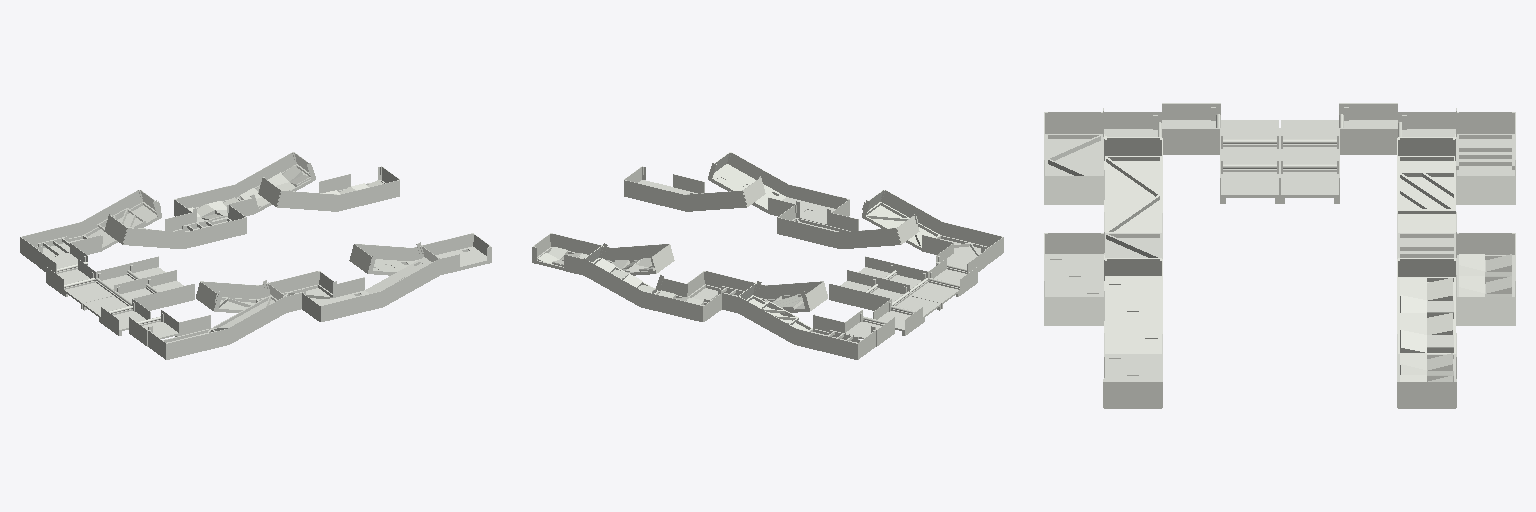
--- Render facts (derived) ---
The picture shows the robot from 3 angles, left to right: view 1: azimuth 30°, elevation 25°; view 2: azimuth 150°, elevation 25°; view 3: azimuth 270°, elevation 25°; orthographic projection.
Robot: map — 172 links, 171 joints (171 fixed); root link world; default pose: every joint at zero.
Links seen in each view (by area): view 1: board_18x600x2400_156, board_18x600x2400_33, board_18x600x2400_97, board_18x600x2400_176, pallet_step_with_pipe_78, board_18x600x2400_184, board_18x600x2400_145, board_18x600x2400_66, board_18x600x2400_128, pallet_step_with_pipe_76, pallet_step_with_pipe_90, pallet_step_with_pipe_88 (+15 smaller); view 2: board_18x600x2400_134, board_18x600x2400_165, board_18x600x2400_47, board_18x600x2400_34, board_18x600x2400_114, pallet_step_with_pipe_80, board_18x600x2400_98, board_18x600x2400_150, board_18x600x2400_192, pallet_step_with_pipe_82, crate_board_161, lane_floor_181 (+16 smaller); view 3: crate_board_153, lane_floor_190, lane_floor_122, pallet_step_with_pipe_88, pallet_step_with_pipe_86, crate_board_133, lane_floor_164, pallet_step_with_pipe_78, pallet_step_with_pipe_80, board_18x600x1200_49, board_18x600x1200_158, board_18x600x1200_116 (+28 smaller).
Link boxes in pixels (box(x1,y1,x2,y2)): board_18x600x2400_156: box(379, 259, 443, 306); board_18x600x2400_33: box(337, 180, 399, 211); board_18x600x2400_97: box(183, 218, 245, 248); board_18x600x2400_176: box(167, 329, 229, 359); pallet_step_with_pipe_78: box(146, 270, 194, 306); board_18x600x2400_184: box(226, 297, 289, 343); board_18x600x2400_145: box(320, 291, 383, 321); board_18x600x2400_66: box(277, 190, 339, 211); board_18x600x2400_128: box(123, 228, 184, 248); pallet_step_with_pipe_76: box(114, 278, 163, 310); pallet_step_with_pipe_90: box(129, 310, 178, 346); pallet_step_with_pipe_88: box(101, 299, 150, 335); board_18x600x2400_134: box(624, 180, 686, 211); board_18x600x2400_165: box(778, 218, 840, 248); board_18x600x2400_47: box(580, 259, 643, 306); board_18x600x2400_34: box(640, 291, 703, 321); board_18x600x2400_114: box(734, 297, 798, 343); pallet_step_with_pipe_80: box(829, 270, 877, 306); board_18x600x2400_98: box(794, 328, 856, 359); board_18x600x2400_150: box(684, 190, 746, 211); board_18x600x2400_192: box(839, 228, 900, 248); pallet_step_with_pipe_82: box(860, 278, 909, 310); crate_board_161: box(712, 164, 785, 209); lane_floor_181: box(862, 202, 939, 250); crate_board_153: box(1104, 276, 1161, 353); lane_floor_190: box(1104, 156, 1161, 232); lane_floor_122: box(1398, 156, 1455, 232); pallet_step_with_pipe_88: box(1162, 103, 1220, 154); pallet_step_with_pipe_86: box(1339, 103, 1397, 154); crate_board_133: box(1045, 254, 1103, 296); lane_floor_164: box(1045, 134, 1103, 175); pallet_step_with_pipe_78: box(1220, 153, 1279, 203); pallet_step_with_pipe_80: box(1280, 153, 1339, 203); board_18x600x1200_49: box(1456, 297, 1514, 325); board_18x600x1200_158: box(1045, 297, 1103, 325); board_18x600x1200_116: box(1456, 176, 1514, 204).
Size in the robot's own frame: 13.53 by 9.66 by 1.38 metres.
171 mesh visuals loaded from 14 distinct referenced files (14 OBJ).

The robot description file, URDF, robot "map":
<?xml version="1.0" ?>
<!-- =================================================================================== -->
<!-- |    This document was autogenerated by xacro from map_sloped.urdf.xacro          | -->
<!-- |    EDITING THIS FILE BY HAND IS NOT RECOMMENDED                                 | -->
<!-- =================================================================================== -->
<robot name="map">
  <link name="world"/>
  <material name="black">
    <color rgba="0.0 0.0 0.0 1.0"/>
  </material>
  <material name="blue">
    <color rgba="0.0 0.0 0.8 1.0"/>
  </material>
  <material name="green">
    <color rgba="0.0 0.8 0.0 1.0"/>
  </material>
  <material name="grey">
    <color rgba="0.2 0.2 0.2 1.0"/>
  </material>
  <material name="orange">
    <color rgba="1.0 0.4235294117647059 0.0392156862745098 1.0"/>
  </material>
  <material name="brown">
    <color rgba="0.8705882352941177 0.8117647058823529 0.7647058823529411 1.0"/>
  </material>
  <material name="red">
    <color rgba="1 0.41 0.41 1"/>
  </material>
  <material name="white">
    <color rgba="1.0 1.0 1.0 1.0"/>
  </material>
  <material name="wood">
    <color rgba="0.82 0.59 0.35 1.0"/>
  </material>
  <!-- fixed joint -->
  <joint name="board_18x600x1032_38_joint" type="fixed">
    <origin rpy="0.0 -0.0 -3.1415926535891723" xyz="1.4110000009077655 3.602500000001875 0.30000000000000004"/>
    <parent link="world"/>
    <child link="board_18x600x1032_38"/>
  </joint>
  <!-- link -->
  <link name="board_18x600x1032_38">
    <!-- inertial -->
    <inertial>
      <origin rpy="0 0 0" xyz="0 0 0"/>
      <mass value="1"/>
      <inertia ixx="1.0" ixy="0.0" ixz="0.0" iyy="1.0" iyz="0.0" izz="1.0"/>
    </inertial>
    <!-- visual -->
    <visual>
      <origin rpy="0 0 0" xyz="0 0 0"/>
      <geometry>
        <mesh filename="package://ICRA2024_Quadruped_Competition/meshes/visual/board_18x600x1032.obj"/>
      </geometry>
      <material name="">
        <color rgba="0.92 0.93 0.90 1"/>
      </material>
    </visual>
    <!-- collision -->
    <collision>
      <origin rpy="0 0 0" xyz="0 0 0"/>
      <geometry>
        <mesh filename="package://ICRA2024_Quadruped_Competition/meshes/visual/board_18x600x1032.obj"/>
      </geometry>
      <material name="">
        <color rgba="1 0 0 1"/>
      </material>
    </collision>
  </link>
  <!-- gazebo -->
  <gazebo reference="board_18x600x1032_38">
    <static>true</static>
  </gazebo>
  <!-- fixed joint -->
  <joint name="board_18x600x1032_109_joint" type="fixed">
    <origin rpy="0.0 -0.0 -3.1415926535891723" xyz="-0.9889999990922331 3.62050000000182 0.30000000000000004"/>
    <parent link="world"/>
    <child link="board_18x600x1032_109"/>
  </joint>
  <!-- link -->
  <link name="board_18x600x1032_109">
    <!-- inertial -->
    <inertial>
      <origin rpy="0 0 0" xyz="0 0 0"/>
      <mass value="1"/>
      <inertia ixx="1.0" ixy="0.0" ixz="0.0" iyy="1.0" iyz="0.0" izz="1.0"/>
    </inertial>
    <!-- visual -->
    <visual>
      <origin rpy="0 0 0" xyz="0 0 0"/>
      <geometry>
        <mesh filename="package://ICRA2024_Quadruped_Competition/meshes/visual/board_18x600x1032.obj"/>
      </geometry>
      <material name="">
        <color rgba="0.92 0.93 0.90 1"/>
      </material>
    </visual>
    <!-- collision -->
    <collision>
      <origin rpy="0 0 0" xyz="0 0 0"/>
      <geometry>
        <mesh filename="package://ICRA2024_Quadruped_Competition/meshes/visual/board_18x600x1032.obj"/>
      </geometry>
      <material name="">
        <color rgba="1 0 0 1"/>
      </material>
    </collision>
  </link>
  <!-- gazebo -->
  <gazebo reference="board_18x600x1032_109">
    <static>true</static>
  </gazebo>
  <!-- fixed joint -->
  <joint name="board_18x600x1032_138_joint" type="fixed">
    <origin rpy="0.0 -0.0 -3.1415926535891723" xyz="1.4110000009077655 -3.6024999999981335 0.30000000000000004"/>
    <parent link="world"/>
    <child link="board_18x600x1032_138"/>
  </joint>
  <!-- link -->
  <link name="board_18x600x1032_138">
    <!-- inertial -->
    <inertial>
      <origin rpy="0 0 0" xyz="0 0 0"/>
      <mass value="1"/>
      <inertia ixx="1.0" ixy="0.0" ixz="0.0" iyy="1.0" iyz="0.0" izz="1.0"/>
    </inertial>
    <!-- visual -->
    <visual>
      <origin rpy="0 0 0" xyz="0 0 0"/>
      <geometry>
        <mesh filename="package://ICRA2024_Quadruped_Competition/meshes/visual/board_18x600x1032.obj"/>
      </geometry>
      <material name="">
        <color rgba="0.92 0.93 0.90 1"/>
      </material>
    </visual>
    <!-- collision -->
    <collision>
      <origin rpy="0 0 0" xyz="0 0 0"/>
      <geometry>
        <mesh filename="package://ICRA2024_Quadruped_Competition/meshes/visual/board_18x600x1032.obj"/>
      </geometry>
      <material name="">
        <color rgba="1 0 0 1"/>
      </material>
    </collision>
  </link>
  <!-- gazebo -->
  <gazebo reference="board_18x600x1032_138">
    <static>true</static>
  </gazebo>
  <!-- fixed joint -->
  <joint name="board_18x600x1032_175_joint" type="fixed">
    <origin rpy="0.0 -0.0 -3.1415926535891723" xyz="-0.9889999990922331 -3.6024999999981877 0.30000000000000004"/>
    <parent link="world"/>
    <child link="board_18x600x1032_175"/>
  </joint>
  <!-- link -->
  <link name="board_18x600x1032_175">
    <!-- inertial -->
    <inertial>
      <origin rpy="0 0 0" xyz="0 0 0"/>
      <mass value="1"/>
      <inertia ixx="1.0" ixy="0.0" ixz="0.0" iyy="1.0" iyz="0.0" izz="1.0"/>
    </inertial>
    <!-- visual -->
    <visual>
      <origin rpy="0 0 0" xyz="0 0 0"/>
      <geometry>
        <mesh filename="package://ICRA2024_Quadruped_Competition/meshes/visual/board_18x600x1032.obj"/>
      </geometry>
      <material name="">
        <color rgba="0.92 0.93 0.90 1"/>
      </material>
    </visual>
    <!-- collision -->
    <collision>
      <origin rpy="0 0 0" xyz="0 0 0"/>
      <geometry>
        <mesh filename="package://ICRA2024_Quadruped_Competition/meshes/visual/board_18x600x1032.obj"/>
      </geometry>
      <material name="">
        <color rgba="1 0 0 1"/>
      </material>
    </collision>
  </link>
  <!-- gazebo -->
  <gazebo reference="board_18x600x1032_175">
    <static>true</static>
  </gazebo>
  <!-- fixed joint -->
  <joint name="board_18x600x1200_35_joint" type="fixed">
    <origin rpy="-0.0 -0.0 1.570796326795414" xyz="-0.46399999909223233 4.21149999999938 0.30000000000000004"/>
    <parent link="world"/>
    <child link="board_18x600x1200_35"/>
  </joint>
  <!-- link -->
  <link name="board_18x600x1200_35">
    <!-- inertial -->
    <inertial>
      <origin rpy="0 0 0" xyz="0 0 0"/>
      <mass value="1"/>
      <inertia ixx="1.0" ixy="0.0" ixz="0.0" iyy="1.0" iyz="0.0" izz="1.0"/>
    </inertial>
    <!-- visual -->
    <visual>
      <origin rpy="0 0 0" xyz="0 0 0"/>
      <geometry>
        <mesh filename="package://ICRA2024_Quadruped_Competition/meshes/visual/board_18x600x1200.obj"/>
      </geometry>
      <material name="">
        <color rgba="0.92 0.93 0.90 1"/>
      </material>
    </visual>
    <!-- collision -->
    <collision>
      <origin rpy="0 0 0" xyz="0 0 0"/>
      <geometry>
        <mesh filename="package://ICRA2024_Quadruped_Competition/meshes/visual/board_18x600x1200.obj"/>
      </geometry>
      <material name="">
        <color rgba="1 0 0 1"/>
      </material>
    </collision>
  </link>
  <!-- gazebo -->
  <gazebo reference="board_18x600x1200_35">
    <static>true</static>
  </gazebo>
  <!-- fixed joint -->
  <joint name="board_18x600x1200_36_joint" type="fixed">
    <origin rpy="-0.0 -0.0 1.570796326795414" xyz="6.754000000908388 3.0115000000031142 0.30000000000000004"/>
    <parent link="world"/>
    <child link="board_18x600x1200_36"/>
  </joint>
  <!-- link -->
  <link name="board_18x600x1200_36">
    <!-- inertial -->
    <inertial>
      <origin rpy="0 0 0" xyz="0 0 0"/>
      <mass value="1"/>
      <inertia ixx="1.0" ixy="0.0" ixz="0.0" iyy="1.0" iyz="0.0" izz="1.0"/>
    </inertial>
    <!-- visual -->
    <visual>
      <origin rpy="0 0 0" xyz="0 0 0"/>
      <geometry>
        <mesh filename="package://ICRA2024_Quadruped_Competition/meshes/visual/board_18x600x1200.obj"/>
      </geometry>
      <material name="">
        <color rgba="0.92 0.93 0.90 1"/>
      </material>
    </visual>
    <!-- collision -->
    <collision>
      <origin rpy="0 0 0" xyz="0 0 0"/>
      <geometry>
        <mesh filename="package://ICRA2024_Quadruped_Competition/meshes/visual/board_18x600x1200.obj"/>
      </geometry>
      <material name="">
        <color rgba="1 0 0 1"/>
      </material>
    </collision>
  </link>
  <!-- gazebo -->
  <gazebo reference="board_18x600x1200_36">
    <static>true</static>
  </gazebo>
  <!-- fixed joint -->
  <joint name="board_18x600x1200_37_joint" type="fixed">
    <origin rpy="0.0 -0.0 -3.1415926535891723" xyz="4.9630000009077655 3.6205000000018748 0.30000000000000004"/>
    <parent link="world"/>
    <child link="board_18x600x1200_37"/>
  </joint>
  <!-- link -->
  <link name="board_18x600x1200_37">
    <!-- inertial -->
    <inertial>
      <origin rpy="0 0 0" xyz="0 0 0"/>
      <mass value="1"/>
      <inertia ixx="1.0" ixy="0.0" ixz="0.0" iyy="1.0" iyz="0.0" izz="1.0"/>
    </inertial>
    <!-- visual -->
    <visual>
      <origin rpy="0 0 0" xyz="0 0 0"/>
      <geometry>
        <mesh filename="package://ICRA2024_Quadruped_Competition/meshes/visual/board_18x600x1200.obj"/>
      </geometry>
      <material name="">
        <color rgba="0.92 0.93 0.90 1"/>
      </material>
    </visual>
    <!-- collision -->
    <collision>
      <origin rpy="0 0 0" xyz="0 0 0"/>
      <geometry>
        <mesh filename="package://ICRA2024_Quadruped_Competition/meshes/visual/board_18x600x1200.obj"/>
      </geometry>
      <material name="">
        <color rgba="1 0 0 1"/>
      </material>
    </collision>
  </link>
  <!-- gazebo -->
  <gazebo reference="board_18x600x1200_37">
    <static>true</static>
  </gazebo>
  <!-- fixed joint -->
  <joint name="board_18x600x1200_49_joint" type="fixed">
    <origin rpy="-0.2939134460358645 1.4541146065027985e-13 1.570796326795362" xyz="4.163785996571869 4.211500000001801 0.9850226928574939"/>
    <parent link="world"/>
    <child link="board_18x600x1200_49"/>
  </joint>
  <!-- link -->
  <link name="board_18x600x1200_49">
    <!-- inertial -->
    <inertial>
      <origin rpy="0 0 0" xyz="0 0 0"/>
      <mass value="1"/>
      <inertia ixx="1.0" ixy="0.0" ixz="0.0" iyy="1.0" iyz="0.0" izz="1.0"/>
    </inertial>
    <!-- visual -->
    <visual>
      <origin rpy="0 0 0" xyz="0 0 0"/>
      <geometry>
        <mesh filename="package://ICRA2024_Quadruped_Competition/meshes/visual/board_18x600x1200.obj"/>
      </geometry>
      <material name="">
        <color rgba="0.92 0.93 0.90 1"/>
      </material>
    </visual>
    <!-- collision -->
    <collision>
      <origin rpy="0 0 0" xyz="0 0 0"/>
      <geometry>
        <mesh filename="package://ICRA2024_Quadruped_Competition/meshes/visual/board_18x600x1200.obj"/>
      </geometry>
      <material name="">
        <color rgba="1 0 0 1"/>
      </material>
    </collision>
  </link>
  <!-- gazebo -->
  <gazebo reference="board_18x600x1200_49">
    <static>true</static>
  </gazebo>
  <!-- fixed joint -->
  <joint name="board_18x600x1200_63_joint" type="fixed">
    <origin rpy="0.2939134460358644 -1.5432100042289676e-13 1.570796326795422" xyz="2.1262140052444005 3.0115000000005505 0.9850226928582748"/>
    <parent link="world"/>
    <child link="board_18x600x1200_63"/>
  </joint>
  <!-- link -->
  <link name="board_18x600x1200_63">
    <!-- inertial -->
    <inertial>
      <origin rpy="0 0 0" xyz="0 0 0"/>
      <mass value="1"/>
      <inertia ixx="1.0" ixy="0.0" ixz="0.0" iyy="1.0" iyz="0.0" izz="1.0"/>
    </inertial>
    <!-- visual -->
    <visual>
      <origin rpy="0 0 0" xyz="0 0 0"/>
      <geometry>
        <mesh filename="package://ICRA2024_Quadruped_Competition/meshes/visual/board_18x600x1200.obj"/>
      </geometry>
      <material name="">
        <color rgba="0.92 0.93 0.90 1"/>
      </material>
    </visual>
    <!-- collision -->
    <collision>
      <origin rpy="0 0 0" xyz="0 0 0"/>
      <geometry>
        <mesh filename="package://ICRA2024_Quadruped_Competition/meshes/visual/board_18x600x1200.obj"/>
      </geometry>
      <material name="">
        <color rgba="1 0 0 1"/>
      </material>
    </collision>
  </link>
  <!-- gazebo -->
  <gazebo reference="board_18x600x1200_63">
    <static>true</static>
  </gazebo>
  <!-- fixed joint -->
  <joint name="board_18x600x1200_99_joint" type="fixed">
    <origin rpy="-0.0 -0.0 1.570796326795414" xyz="-6.331999999092233 4.211499999999377 0.30000000000000004"/>
    <parent link="world"/>
    <child link="board_18x600x1200_99"/>
  </joint>
  <!-- link -->
  <link name="board_18x600x1200_99">
    <!-- inertial -->
    <inertial>
      <origin rpy="0 0 0" xyz="0 0 0"/>
      <mass value="1"/>
      <inertia ixx="1.0" ixy="0.0" ixz="0.0" iyy="1.0" iyz="0.0" izz="1.0"/>
    </inertial>
    <!-- visual -->
    <visual>
      <origin rpy="0 0 0" xyz="0 0 0"/>
      <geometry>
        <mesh filename="package://ICRA2024_Quadruped_Competition/meshes/visual/board_18x600x1200.obj"/>
      </geometry>
      <material name="">
        <color rgba="0.92 0.93 0.90 1"/>
      </material>
    </visual>
    <!-- collision -->
    <collision>
      <origin rpy="0 0 0" xyz="0 0 0"/>
      <geometry>
        <mesh filename="package://ICRA2024_Quadruped_Competition/meshes/visual/board_18x600x1200.obj"/>
      </geometry>
      <material name="">
        <color rgba="1 0 0 1"/>
      </material>
    </collision>
  </link>
  <!-- gazebo -->
  <gazebo reference="board_18x600x1200_99">
    <static>true</static>
  </gazebo>
  <!-- fixed joint -->
  <joint name="board_18x600x1200_100_joint" type="fixed">
    <origin rpy="-0.0 -0.0 1.570796326795414" xyz="0.8860000009083877 3.0115000000031116 0.30000000000000004"/>
    <parent link="world"/>
    <child link="board_18x600x1200_100"/>
  </joint>
  <!-- link -->
  <link name="board_18x600x1200_100">
    <!-- inertial -->
    <inertial>
      <origin rpy="0 0 0" xyz="0 0 0"/>
      <mass value="1"/>
      <inertia ixx="1.0" ixy="0.0" ixz="0.0" iyy="1.0" iyz="0.0" izz="1.0"/>
    </inertial>
    <!-- visual -->
    <visual>
      <origin rpy="0 0 0" xyz="0 0 0"/>
      <geometry>
        <mesh filename="package://ICRA2024_Quadruped_Competition/meshes/visual/board_18x600x1200.obj"/>
      </geometry>
      <material name="">
        <color rgba="0.92 0.93 0.90 1"/>
      </material>
    </visual>
    <!-- collision -->
    <collision>
      <origin rpy="0 0 0" xyz="0 0 0"/>
      <geometry>
        <mesh filename="package://ICRA2024_Quadruped_Competition/meshes/visual/board_18x600x1200.obj"/>
      </geometry>
      <material name="">
        <color rgba="1 0 0 1"/>
      </material>
    </collision>
  </link>
  <!-- gazebo -->
  <gazebo reference="board_18x600x1200_100">
    <static>true</static>
  </gazebo>
  <!-- fixed joint -->
  <joint name="board_18x600x1200_108_joint" type="fixed">
    <origin rpy="0.0 -0.0 -3.1415926535891723" xyz="-4.540999999092234 3.6025000000018723 0.30000000000000004"/>
    <parent link="world"/>
    <child link="board_18x600x1200_108"/>
  </joint>
  <!-- link -->
  <link name="board_18x600x1200_108">
    <!-- inertial -->
    <inertial>
      <origin rpy="0 0 0" xyz="0 0 0"/>
      <mass value="1"/>
      <inertia ixx="1.0" ixy="0.0" ixz="0.0" iyy="1.0" iyz="0.0" izz="1.0"/>
    </inertial>
    <!-- visual -->
    <visual>
      <origin rpy="0 0 0" xyz="0 0 0"/>
      <geometry>
        <mesh filename="package://ICRA2024_Quadruped_Competition/meshes/visual/board_18x600x1200.obj"/>
      </geometry>
      <material name="">
        <color rgba="0.92 0.93 0.90 1"/>
      </material>
    </visual>
    <!-- collision -->
    <collision>
      <origin rpy="0 0 0" xyz="0 0 0"/>
      <geometry>
        <mesh filename="package://ICRA2024_Quadruped_Competition/meshes/visual/board_18x600x1200.obj"/>
      </geometry>
      <material name="">
        <color rgba="1 0 0 1"/>
      </material>
    </collision>
  </link>
  <!-- gazebo -->
  <gazebo reference="board_18x600x1200_108">
    <static>true</static>
  </gazebo>
  <!-- fixed joint -->
  <joint name="board_18x600x1200_116_joint" type="fixed">
    <origin rpy="-0.2939134460358645 1.4541146065027985e-13 1.570796326795362" xyz="-1.7042140034281306 4.211500000001798 0.9850226928574939"/>
    <parent link="world"/>
    <child link="board_18x600x1200_116"/>
  </joint>
  <!-- link -->
  <link name="board_18x600x1200_116">
    <!-- inertial -->
    <inertial>
      <origin rpy="0 0 0" xyz="0 0 0"/>
      <mass value="1"/>
      <inertia ixx="1.0" ixy="0.0" ixz="0.0" iyy="1.0" iyz="0.0" izz="1.0"/>
    </inertial>
    <!-- visual -->
    <visual>
      <origin rpy="0 0 0" xyz="0 0 0"/>
      <geometry>
        <mesh filename="package://ICRA2024_Quadruped_Competition/meshes/visual/board_18x600x1200.obj"/>
      </geometry>
      <material name="">
        <color rgba="0.92 0.93 0.90 1"/>
      </material>
    </visual>
    <!-- collision -->
    <collision>
      <origin rpy="0 0 0" xyz="0 0 0"/>
      <geometry>
        <mesh filename="package://ICRA2024_Quadruped_Competition/meshes/visual/board_18x600x1200.obj"/>
      </geometry>
      <material name="">
        <color rgba="1 0 0 1"/>
      </material>
    </collision>
  </link>
  <!-- gazebo -->
  <gazebo reference="board_18x600x1200_116">
    <static>true</static>
  </gazebo>
  <!-- fixed joint -->
  <joint name="board_18x600x1200_124_joint" type="fixed">
    <origin rpy="0.2939134460358644 -1.5432100042289676e-13 1.570796326795422" xyz="-3.7417859947556 3.0115000000005483 0.9850226928582746"/>
    <parent link="world"/>
    <child link="board_18x600x1200_124"/>
  </joint>
  <!-- link -->
  <link name="board_18x600x1200_124">
    <!-- inertial -->
    <inertial>
      <origin rpy="0 0 0" xyz="0 0 0"/>
      <mass value="1"/>
      <inertia ixx="1.0" ixy="0.0" ixz="0.0" iyy="1.0" iyz="0.0" izz="1.0"/>
    </inertial>
    <!-- visual -->
    <visual>
      <origin rpy="0 0 0" xyz="0 0 0"/>
      <geometry>
        <mesh filename="package://ICRA2024_Quadruped_Competition/meshes/visual/board_18x600x1200.obj"/>
      </geometry>
      <material name="">
        <color rgba="0.92 0.93 0.90 1"/>
      </material>
    </visual>
    <!-- collision -->
    <collision>
      <origin rpy="0 0 0" xyz="0 0 0"/>
      <geometry>
        <mesh filename="package://ICRA2024_Quadruped_Competition/meshes/visual/board_18x600x1200.obj"/>
      </geometry>
      <material name="">
        <color rgba="1 0 0 1"/>
      </material>
    </collision>
  </link>
  <!-- gazebo -->
  <gazebo reference="board_18x600x1200_124">
    <static>true</static>
  </gazebo>
  <!-- fixed joint -->
  <joint name="board_18x600x1200_135_joint" type="fixed">
    <origin rpy="-0.0 -0.0 1.570796326795414" xyz="-0.46399999909223233 -4.211500000000629 0.30000000000000004"/>
    <parent link="world"/>
    <child link="board_18x600x1200_135"/>
  </joint>
  <!-- link -->
  <link name="board_18x600x1200_135">
    <!-- inertial -->
    <inertial>
      <origin rpy="0 0 0" xyz="0 0 0"/>
      <mass value="1"/>
      <inertia ixx="1.0" ixy="0.0" ixz="0.0" iyy="1.0" iyz="0.0" izz="1.0"/>
    </inertial>
    <!-- visual -->
    <visual>
      <origin rpy="0 0 0" xyz="0 0 0"/>
      <geometry>
        <mesh filename="package://ICRA2024_Quadruped_Competition/meshes/visual/board_18x600x1200.obj"/>
      </geometry>
      <material name="">
        <color rgba="0.92 0.93 0.90 1"/>
      </material>
    </visual>
    <!-- collision -->
    <collision>
      <origin rpy="0 0 0" xyz="0 0 0"/>
      <geometry>
        <mesh filename="package://ICRA2024_Quadruped_Competition/meshes/visual/board_18x600x1200.obj"/>
      </geometry>
      <material name="">
        <color rgba="1 0 0 1"/>
      </material>
    </collision>
  </link>
  <!-- gazebo -->
  <gazebo reference="board_18x600x1200_135">
    <static>true</static>
  </gazebo>
  <!-- fixed joint -->
  <joint name="board_18x600x1200_136_joint" type="fixed">
    <origin rpy="-0.0 -0.0 1.570796326795414" xyz="6.754000000908388 -3.0114999999968943 0.30000000000000004"/>
    <parent link="world"/>
    <child link="board_18x600x1200_136"/>
  </joint>
  <!-- link -->
  <link name="board_18x600x1200_136">
    <!-- inertial -->
    <inertial>
      <origin rpy="0 0 0" xyz="0 0 0"/>
      <mass value="1"/>
      <inertia ixx="1.0" ixy="0.0" ixz="0.0" iyy="1.0" iyz="0.0" izz="1.0"/>
    </inertial>
    <!-- visual -->
    <visual>
      <origin rpy="0 0 0" xyz="0 0 0"/>
      <geometry>
        <mesh filename="package://ICRA2024_Quadruped_Competition/meshes/visual/board_18x600x1200.obj"/>
      </geometry>
      <material name="">
        <color rgba="0.92 0.93 0.90 1"/>
      </material>
    </visual>
    <!-- collision -->
    <collision>
      <origin rpy="0 0 0" xyz="0 0 0"/>
      <geometry>
        <mesh filename="package://ICRA2024_Quadruped_Competition/meshes/visual/board_18x600x1200.obj"/>
      </geometry>
      <material name="">
        <color rgba="1 0 0 1"/>
      </material>
    </collision>
  </link>
  <!-- gazebo -->
  <gazebo reference="board_18x600x1200_136">
    <static>true</static>
  </gazebo>
  <!-- fixed joint -->
  <joint name="board_18x600x1200_137_joint" type="fixed">
    <origin rpy="0.0 -0.0 -3.1415926535891723" xyz="4.9630000009077655 -3.6024999999981335 0.30000000000000004"/>
    <parent link="world"/>
    <child link="board_18x600x1200_137"/>
  </joint>
  <!-- link -->
  <link name="board_18x600x1200_137">
    <!-- inertial -->
    <inertial>
      <origin rpy="0 0 0" xyz="0 0 0"/>
      <mass value="1"/>
      <inertia ixx="1.0" ixy="0.0" ixz="0.0" iyy="1.0" iyz="0.0" izz="1.0"/>
    </inertial>
    <!-- visual -->
    <visual>
      <origin rpy="0 0 0" xyz="0 0 0"/>
      <geometry>
        <mesh filename="package://ICRA2024_Quadruped_Competition/meshes/visual/board_18x600x1200.obj"/>
      </geometry>
      <material name="">
        <color rgba="0.92 0.93 0.90 1"/>
      </material>
    </visual>
    <!-- collision -->
    <collision>
      <origin rpy="0 0 0" xyz="0 0 0"/>
      <geometry>
        <mesh filename="package://ICRA2024_Quadruped_Competition/meshes/visual/board_18x600x1200.obj"/>
      </geometry>
      <material name="">
        <color rgba="1 0 0 1"/>
      </material>
    </collision>
  </link>
  <!-- gazebo -->
  <gazebo reference="board_18x600x1200_137">
    <static>true</static>
  </gazebo>
  <!-- fixed joint -->
  <joint name="board_18x600x1200_148_joint" type="fixed">
    <origin rpy="0.2939134460358643 -1.5432100042289676e-13 1.570796326795422" xyz="2.1262140052444005 -3.011499999999457 0.9850226928582746"/>
    <parent link="world"/>
    <child link="board_18x600x1200_148"/>
  </joint>
  <!-- link -->
  <link name="board_18x600x1200_148">
    <!-- inertial -->
    <inertial>
      <origin rpy="0 0 0" xyz="0 0 0"/>
      <mass value="1"/>
      <inertia ixx="1.0" ixy="0.0" ixz="0.0" iyy="1.0" iyz="0.0" izz="1.0"/>
    </inertial>
    <!-- visual -->
    <visual>
      <origin rpy="0 0 0" xyz="0 0 0"/>
      <geometry>
        <mesh filename="package://ICRA2024_Quadruped_Competition/meshes/visual/board_18x600x1200.obj"/>
      </geometry>
      <material name="">
        <color rgba="0.92 0.93 0.90 1"/>
      </material>
    </visual>
    <!-- collision -->
    <collision>
      <origin rpy="0 0 0" xyz="0 0 0"/>
      <geometry>
        <mesh filename="package://ICRA2024_Quadruped_Competition/meshes/visual/board_18x600x1200.obj"/>
      </geometry>
      <material name="">
        <color rgba="1 0 0 1"/>
      </material>
    </collision>
  </link>
  <!-- gazebo -->
  <gazebo reference="board_18x600x1200_148">
    <static>true</static>
  </gazebo>
  <!-- fixed joint -->
  <joint name="board_18x600x1200_158_joint" type="fixed">
    <origin rpy="-0.29391344603586445 1.4549472737712676e-13 1.570796326795362" xyz="4.163785996571869 -4.211499999998206 0.9850226928574939"/>
    <parent link="world"/>
    <child link="board_18x600x1200_158"/>
  </joint>
  <!-- link -->
  <link name="board_18x600x1200_158">
    <!-- inertial -->
    <inertial>
      <origin rpy="0 0 0" xyz="0 0 0"/>
      <mass value="1"/>
      <inertia ixx="1.0" ixy="0.0" ixz="0.0" iyy="1.0" iyz="0.0" izz="1.0"/>
    </inertial>
    <!-- visual -->
    <visual>
      <origin rpy="0 0 0" xyz="0 0 0"/>
      <geometry>
        <mesh filename="package://ICRA2024_Quadruped_Competition/meshes/visual/board_18x600x1200.obj"/>
      </geometry>
      <material name="">
        <color rgba="0.92 0.93 0.90 1"/>
      </material>
    </visual>
    <!-- collision -->
    <collision>
      <origin rpy="0 0 0" xyz="0 0 0"/>
      <geometry>
        <mesh filename="package://ICRA2024_Quadruped_Competition/meshes/visual/board_18x600x1200.obj"/>
      </geometry>
      <material name="">
        <color rgba="1 0 0 1"/>
      </material>
    </collision>
  </link>
  <!-- gazebo -->
  <gazebo reference="board_18x600x1200_158">
    <static>true</static>
  </gazebo>
  <!-- fixed joint -->
  <joint name="board_18x600x1200_166_joint" type="fixed">
    <origin rpy="-0.0 -0.0 1.570796326795414" xyz="-6.331999999092233 -4.211500000000631 0.30000000000000004"/>
    <parent link="world"/>
    <child link="board_18x600x1200_166"/>
  </joint>
  <!-- link -->
  <link name="board_18x600x1200_166">
    <!-- inertial -->
    <inertial>
      <origin rpy="0 0 0" xyz="0 0 0"/>
      <mass value="1"/>
      <inertia ixx="1.0" ixy="0.0" ixz="0.0" iyy="1.0" iyz="0.0" izz="1.0"/>
    </inertial>
    <!-- visual -->
    <visual>
      <origin rpy="0 0 0" xyz="0 0 0"/>
      <geometry>
        <mesh filename="package://ICRA2024_Quadruped_Competition/meshes/visual/board_18x600x1200.obj"/>
      </geometry>
      <material name="">
        <color rgba="0.92 0.93 0.90 1"/>
      </material>
    </visual>
    <!-- collision -->
    <collision>
      <origin rpy="0 0 0" xyz="0 0 0"/>
      <geometry>
        <mesh filename="package://ICRA2024_Quadruped_Competition/meshes/visual/board_18x600x1200.obj"/>
      </geometry>
      <material name="">
        <color rgba="1 0 0 1"/>
      </material>
    </collision>
  </link>
  <!-- gazebo -->
  <gazebo reference="board_18x600x1200_166">
    <static>true</static>
  </gazebo>
  <!-- fixed joint -->
  <joint name="board_18x600x1200_167_joint" type="fixed">
    <origin rpy="-0.0 -0.0 1.570796326795414" xyz="0.8860000009083877 -3.011499999996896 0.30000000000000004"/>
    <parent link="world"/>
    <child link="board_18x600x1200_167"/>
  </joint>
  <!-- link -->
  <link name="board_18x600x1200_167">
    <!-- inertial -->
    <inertial>
      <origin rpy="0 0 0" xyz="0 0 0"/>
      <mass value="1"/>
      <inertia ixx="1.0" ixy="0.0" ixz="0.0" iyy="1.0" iyz="0.0" izz="1.0"/>
    </inertial>
    <!-- visual -->
    <visual>
      <origin rpy="0 0 0" xyz="0 0 0"/>
      <geometry>
        <mesh filename="package://ICRA2024_Quadruped_Competition/meshes/visual/board_18x600x1200.obj"/>
      </geometry>
      <material name="">
        <color rgba="0.92 0.93 0.90 1"/>
      </material>
    </visual>
    <!-- collision -->
    <collision>
      <origin rpy="0 0 0" xyz="0 0 0"/>
      <geometry>
        <mesh filename="package://ICRA2024_Quadruped_Competition/meshes/visual/board_18x600x1200.obj"/>
      </geometry>
      <material name="">
        <color rgba="1 0 0 1"/>
      </material>
    </collision>
  </link>
  <!-- gazebo -->
  <gazebo reference="board_18x600x1200_167">
    <static>true</static>
  </gazebo>
  <!-- fixed joint -->
  <joint name="board_18x600x1200_174_joint" type="fixed">
    <origin rpy="0.0 -0.0 -3.1415926535891723" xyz="-4.540999999092234 -3.6024999999981353 0.30000000000000004"/>
    <parent link="world"/>
    <child link="board_18x600x1200_174"/>
  </joint>
  <!-- link -->
  <link name="board_18x600x1200_174">
    <!-- inertial -->
    <inertial>
      <origin rpy="0 0 0" xyz="0 0 0"/>
      <mass value="1"/>
      <inertia ixx="1.0" ixy="0.0" ixz="0.0" iyy="1.0" iyz="0.0" izz="1.0"/>
    </inertial>
    <!-- visual -->
    <visual>
      <origin rpy="0 0 0" xyz="0 0 0"/>
      <geometry>
        <mesh filename="package://ICRA2024_Quadruped_Competition/meshes/visual/board_18x600x1200.obj"/>
      </geometry>
      <material name="">
        <color rgba="0.92 0.93 0.90 1"/>
      </material>
    </visual>
    <!-- collision -->
    <collision>
      <origin rpy="0 0 0" xyz="0 0 0"/>
      <geometry>
        <mesh filename="package://ICRA2024_Quadruped_Competition/meshes/visual/board_18x600x1200.obj"/>
      </geometry>
      <material name="">
        <color rgba="1 0 0 1"/>
      </material>
    </collision>
  </link>
  <!-- gazebo -->
  <gazebo reference="board_18x600x1200_174">
    <static>true</static>
  </gazebo>
  <!-- fixed joint -->
  <joint name="board_18x600x1200_183_joint" type="fixed">
    <origin rpy="-0.2939134460358645 1.4541146065027985e-13 1.570796326795362" xyz="-1.7042140034281306 -4.211499999998209 0.9850226928574938"/>
    <parent link="world"/>
    <child link="board_18x600x1200_183"/>
  </joint>
  <!-- link -->
  <link name="board_18x600x1200_183">
    <!-- inertial -->
    <inertial>
      <origin rpy="0 0 0" xyz="0 0 0"/>
      <mass value="1"/>
      <inertia ixx="1.0" ixy="0.0" ixz="0.0" iyy="1.0" iyz="0.0" izz="1.0"/>
    </inertial>
    <!-- visual -->
    <visual>
      <origin rpy="0 0 0" xyz="0 0 0"/>
      <geometry>
        <mesh filename="package://ICRA2024_Quadruped_Competition/meshes/visual/board_18x600x1200.obj"/>
      </geometry>
      <material name="">
        <color rgba="0.92 0.93 0.90 1"/>
      </material>
    </visual>
    <!-- collision -->
    <collision>
      <origin rpy="0 0 0" xyz="0 0 0"/>
      <geometry>
        <mesh filename="package://ICRA2024_Quadruped_Competition/meshes/visual/board_18x600x1200.obj"/>
      </geometry>
      <material name="">
        <color rgba="1 0 0 1"/>
      </material>
    </collision>
  </link>
  <!-- gazebo -->
  <gazebo reference="board_18x600x1200_183">
    <static>true</static>
  </gazebo>
  <!-- fixed joint -->
  <joint name="board_18x600x1200_194_joint" type="fixed">
    <origin rpy="0.2939134460358644 -1.5432100042289676e-13 1.570796326795422" xyz="-3.7417859947556 -3.0114999999994594 0.9850226928582747"/>
    <parent link="world"/>
    <child link="board_18x600x1200_194"/>
  </joint>
  <!-- link -->
  <link name="board_18x600x1200_194">
    <!-- inertial -->
    <inertial>
      <origin rpy="0 0 0" xyz="0 0 0"/>
      <mass value="1"/>
      <inertia ixx="1.0" ixy="0.0" ixz="0.0" iyy="1.0" iyz="0.0" izz="1.0"/>
    </inertial>
    <!-- visual -->
    <visual>
      <origin rpy="0 0 0" xyz="0 0 0"/>
      <geometry>
        <mesh filename="package://ICRA2024_Quadruped_Competition/meshes/visual/board_18x600x1200.obj"/>
      </geometry>
      <material name="">
        <color rgba="0.92 0.93 0.90 1"/>
      </material>
    </visual>
    <!-- collision -->
    <collision>
      <origin rpy="0 0 0" xyz="0 0 0"/>
      <geometry>
        <mesh filename="package://ICRA2024_Quadruped_Competition/meshes/visual/board_18x600x1200.obj"/>
      </geometry>
      <material name="">
        <color rgba="1 0 0 1"/>
      </material>
    </collision>
  </link>
  <!-- gazebo -->
  <gazebo reference="board_18x600x1200_194">
    <static>true</static>
  </gazebo>
  <!-- fixed joint -->
  <joint name="board_18x600x150_39_joint" type="fixed">
    <origin rpy="0.0 -0.0 -3.1415926535891723" xyz="6.670000000907766 3.6205000000018748 0.30000000000000004"/>
    <parent link="world"/>
    <child link="board_18x600x150_39"/>
  </joint>
  <!-- link -->
  <link name="board_18x600x150_39">
    <!-- inertial -->
    <inertial>
      <origin rpy="0 0 0" xyz="0 0 0"/>
      <mass value="1"/>
      <inertia ixx="1.0" ixy="0.0" ixz="0.0" iyy="1.0" iyz="0.0" izz="1.0"/>
    </inertial>
    <!-- visual -->
    <visual>
      <origin rpy="0 0 0" xyz="0 0 0"/>
      <geometry>
        <mesh filename="package://ICRA2024_Quadruped_Competition/meshes/visual/board_18x600x150.obj"/>
      </geometry>
      <material name="">
        <color rgba="0.92 0.93 0.90 1"/>
      </material>
    </visual>
    <!-- collision -->
    <collision>
      <origin rpy="0 0 0" xyz="0 0 0"/>
      <geometry>
        <mesh filename="package://ICRA2024_Quadruped_Competition/meshes/visual/board_18x600x150.obj"/>
      </geometry>
      <material name="">
        <color rgba="1 0 0 1"/>
      </material>
    </collision>
  </link>
  <!-- gazebo -->
  <gazebo reference="board_18x600x150_39">
    <static>true</static>
  </gazebo>
  <!-- fixed joint -->
  <joint name="board_18x600x150_44_joint" type="fixed">
    <origin rpy="0.0 -0.0 -3.1415926535891723" xyz="-0.37999999909223137 3.620500000001872 0.41100000000000003"/>
    <parent link="world"/>
    <child link="board_18x600x150_44"/>
  </joint>
  <!-- link -->
  <link name="board_18x600x150_44">
    <!-- inertial -->
    <inertial>
      <origin rpy="0 0 0" xyz="0 0 0"/>
      <mass value="1"/>
      <inertia ixx="1.0" ixy="0.0" ixz="0.0" iyy="1.0" iyz="0.0" izz="1.0"/>
    </inertial>
    <!-- visual -->
    <visual>
      <origin rpy="0 0 0" xyz="0 0 0"/>
      <geometry>
        <mesh filename="package://ICRA2024_Quadruped_Competition/meshes/visual/board_18x600x150.obj"/>
      </geometry>
      <material name="">
        <color rgba="0.92 0.93 0.90 1"/>
      </material>
    </visual>
    <!-- collision -->
    <collision>
      <origin rpy="0 0 0" xyz="0 0 0"/>
      <geometry>
        <mesh filename="package://ICRA2024_Quadruped_Competition/meshes/visual/board_18x600x150.obj"/>
      </geometry>
      <material name="">
        <color rgba="1 0 0 1"/>
      </material>
    </collision>
  </link>
  <!-- gazebo -->
  <gazebo reference="board_18x600x150_44">
    <static>true</static>
  </gazebo>
  <!-- fixed joint -->
  <joint name="board_18x600x150_50_joint" type="fixed">
    <origin rpy="1.832777359093617e-13 0.29391344603586445 -3.141592653589176" xyz="4.051231421252851 3.620500000001806 1.0669279281893038"/>
    <parent link="world"/>
    <child link="board_18x600x150_50"/>
  </joint>
  <!-- link -->
  <link name="board_18x600x150_50">
    <!-- inertial -->
    <inertial>
      <origin rpy="0 0 0" xyz="0 0 0"/>
      <mass value="1"/>
      <inertia ixx="1.0" ixy="0.0" ixz="0.0" iyy="1.0" iyz="0.0" izz="1.0"/>
    </inertial>
    <!-- visual -->
    <visual>
      <origin rpy="0 0 0" xyz="0 0 0"/>
      <geometry>
        <mesh filename="package://ICRA2024_Quadruped_Competition/meshes/visual/board_18x600x150.obj"/>
      </geometry>
      <material name="">
        <color rgba="0.92 0.93 0.90 1"/>
      </material>
    </visual>
    <!-- collision -->
    <collision>
      <origin rpy="0 0 0" xyz="0 0 0"/>
      <geometry>
        <mesh filename="package://ICRA2024_Quadruped_Competition/meshes/visual/board_18x600x150.obj"/>
      </geometry>
      <material name="">
        <color rgba="1 0 0 1"/>
      </material>
    </collision>
  </link>
  <!-- gazebo -->
  <gazebo reference="board_18x600x150_50">
    <static>true</static>
  </gazebo>
  <!-- fixed joint -->
  <joint name="board_18x600x150_52_joint" type="fixed">
    <origin rpy="1.832777359093617e-13 0.29391344603586445 -3.141592653589176" xyz="1.8986742042449254 3.6205000000018734 0.4153924897770144"/>
    <parent link="world"/>
    <child link="board_18x600x150_52"/>
  </joint>
  <!-- link -->
  <link name="board_18x600x150_52">
    <!-- inertial -->
    <inertial>
      <origin rpy="0 0 0" xyz="0 0 0"/>
      <mass value="1"/>
      <inertia ixx="1.0" ixy="0.0" ixz="0.0" iyy="1.0" iyz="0.0" izz="1.0"/>
    </inertial>
    <!-- visual -->
    <visual>
      <origin rpy="0 0 0" xyz="0 0 0"/>
      <geometry>
        <mesh filename="package://ICRA2024_Quadruped_Competition/meshes/visual/board_18x600x150.obj"/>
      </geometry>
      <material name="">
        <color rgba="0.92 0.93 0.90 1"/>
      </material>
    </visual>
    <!-- collision -->
    <collision>
      <origin rpy="0 0 0" xyz="0 0 0"/>
      <geometry>
        <mesh filename="package://ICRA2024_Quadruped_Competition/meshes/visual/board_18x600x150.obj"/>
      </geometry>
      <material name="">
        <color rgba="1 0 0 1"/>
      </material>
    </collision>
  </link>
  <!-- gazebo -->
  <gazebo reference="board_18x600x150_52">
    <static>true</static>
  </gazebo>
  <!-- fixed joint -->
  <joint name="board_18x600x150_105_joint" type="fixed">
    <origin rpy="0.0 -0.0 -3.1415926535891723" xyz="-6.246999999092234 3.620500000001872 0.41100000000000003"/>
    <parent link="world"/>
    <child link="board_18x600x150_105"/>
  </joint>
  <!-- link -->
  <link name="board_18x600x150_105">
    <!-- inertial -->
    <inertial>
      <origin rpy="0 0 0" xyz="0 0 0"/>
      <mass value="1"/>
      <inertia ixx="1.0" ixy="0.0" ixz="0.0" iyy="1.0" iyz="0.0" izz="1.0"/>
    </inertial>
    <!-- visual -->
    <visual>
      <origin rpy="0 0 0" xyz="0 0 0"/>
      <geometry>
        <mesh filename="package://ICRA2024_Quadruped_Competition/meshes/visual/board_18x600x150.obj"/>
      </geometry>
      <material name="">
        <color rgba="0.92 0.93 0.90 1"/>
      </material>
    </visual>
    <!-- collision -->
    <collision>
      <origin rpy="0 0 0" xyz="0 0 0"/>
      <geometry>
        <mesh filename="package://ICRA2024_Quadruped_Competition/meshes/visual/board_18x600x150.obj"/>
      </geometry>
      <material name="">
        <color rgba="1 0 0 1"/>
      </material>
    </collision>
  </link>
  <!-- gazebo -->
  <gazebo reference="board_18x600x150_105">
    <static>true</static>
  </gazebo>
  <!-- fixed joint -->
  <joint name="board_18x600x150_118_joint" type="fixed">
    <origin rpy="1.832777359093617e-13 0.29391344603586445 -3.141592653589176" xyz="-1.8167685787471488 3.6205000000018033 1.066927928189304"/>
    <parent link="world"/>
    <child link="board_18x600x150_118"/>
  </joint>
  <!-- link -->
  <link name="board_18x600x150_118">
    <!-- inertial -->
    <inertial>
      <origin rpy="0 0 0" xyz="0 0 0"/>
      <mass value="1"/>
      <inertia ixx="1.0" ixy="0.0" ixz="0.0" iyy="1.0" iyz="0.0" izz="1.0"/>
    </inertial>
    <!-- visual -->
    <visual>
      <origin rpy="0 0 0" xyz="0 0 0"/>
      <geometry>
        <mesh filename="package://ICRA2024_Quadruped_Competition/meshes/visual/board_18x600x150.obj"/>
      </geometry>
      <material name="">
        <color rgba="0.92 0.93 0.90 1"/>
      </material>
    </visual>
    <!-- collision -->
    <collision>
      <origin rpy="0 0 0" xyz="0 0 0"/>
      <geometry>
        <mesh filename="package://ICRA2024_Quadruped_Competition/meshes/visual/board_18x600x150.obj"/>
      </geometry>
      <material name="">
        <color rgba="1 0 0 1"/>
      </material>
    </collision>
  </link>
  <!-- gazebo -->
  <gazebo reference="board_18x600x150_118">
    <static>true</static>
  </gazebo>
  <!-- fixed joint -->
  <joint name="board_18x600x150_126_joint" type="fixed">
    <origin rpy="-1.9255164352385588e-13 -0.29391344603586445 -3.141592653589113" xyz="-3.6282743019552175 3.602500000001805 1.0666382281287266"/>
    <parent link="world"/>
    <child link="board_18x600x150_126"/>
  </joint>
  <!-- link -->
  <link name="board_18x600x150_126">
    <!-- inertial -->
    <inertial>
      <origin rpy="0 0 0" xyz="0 0 0"/>
      <mass value="1"/>
      <inertia ixx="1.0" ixy="0.0" ixz="0.0" iyy="1.0" iyz="0.0" izz="1.0"/>
    </inertial>
    <!-- visual -->
    <visual>
      <origin rpy="0 0 0" xyz="0 0 0"/>
      <geometry>
        <mesh filename="package://ICRA2024_Quadruped_Competition/meshes/visual/board_18x600x150.obj"/>
      </geometry>
      <material name="">
        <color rgba="0.92 0.93 0.90 1"/>
      </material>
    </visual>
    <!-- collision -->
    <collision>
      <origin rpy="0 0 0" xyz="0 0 0"/>
      <geometry>
        <mesh filename="package://ICRA2024_Quadruped_Competition/meshes/visual/board_18x600x150.obj"/>
      </geometry>
      <material name="">
        <color rgba="1 0 0 1"/>
      </material>
    </collision>
  </link>
  <!-- gazebo -->
  <gazebo reference="board_18x600x150_126">
    <static>true</static>
  </gazebo>
  <!-- fixed joint -->
  <joint name="board_18x600x150_139_joint" type="fixed">
    <origin rpy="0.0 -0.0 -3.1415926535891723" xyz="6.670000000907766 -3.6204999999981333 0.30000000000000004"/>
    <parent link="world"/>
    <child link="board_18x600x150_139"/>
  </joint>
  <!-- link -->
  <link name="board_18x600x150_139">
    <!-- inertial -->
    <inertial>
      <origin rpy="0 0 0" xyz="0 0 0"/>
      <mass value="1"/>
      <inertia ixx="1.0" ixy="0.0" ixz="0.0" iyy="1.0" iyz="0.0" izz="1.0"/>
    </inertial>
    <!-- visual -->
    <visual>
      <origin rpy="0 0 0" xyz="0 0 0"/>
      <geometry>
        <mesh filename="package://ICRA2024_Quadruped_Competition/meshes/visual/board_18x600x150.obj"/>
      </geometry>
      <material name="">
        <color rgba="0.92 0.93 0.90 1"/>
      </material>
    </visual>
    <!-- collision -->
    <collision>
      <origin rpy="0 0 0" xyz="0 0 0"/>
      <geometry>
        <mesh filename="package://ICRA2024_Quadruped_Competition/meshes/visual/board_18x600x150.obj"/>
      </geometry>
      <material name="">
        <color rgba="1 0 0 1"/>
      </material>
    </collision>
  </link>
  <!-- gazebo -->
  <gazebo reference="board_18x600x150_139">
    <static>true</static>
  </gazebo>
  <!-- fixed joint -->
  <joint name="board_18x600x150_144_joint" type="fixed">
    <origin rpy="0.0 -0.0 -3.1415926535891723" xyz="-0.37999999909223137 -3.602499999998137 0.41100000000000003"/>
    <parent link="world"/>
    <child link="board_18x600x150_144"/>
  </joint>
  <!-- link -->
  <link name="board_18x600x150_144">
    <!-- inertial -->
    <inertial>
      <origin rpy="0 0 0" xyz="0 0 0"/>
      <mass value="1"/>
      <inertia ixx="1.0" ixy="0.0" ixz="0.0" iyy="1.0" iyz="0.0" izz="1.0"/>
    </inertial>
    <!-- visual -->
    <visual>
      <origin rpy="0 0 0" xyz="0 0 0"/>
      <geometry>
        <mesh filename="package://ICRA2024_Quadruped_Competition/meshes/visual/board_18x600x150.obj"/>
      </geometry>
      <material name="">
        <color rgba="0.92 0.93 0.90 1"/>
      </material>
    </visual>
    <!-- collision -->
    <collision>
      <origin rpy="0 0 0" xyz="0 0 0"/>
      <geometry>
        <mesh filename="package://ICRA2024_Quadruped_Competition/meshes/visual/board_18x600x150.obj"/>
      </geometry>
      <material name="">
        <color rgba="1 0 0 1"/>
      </material>
    </collision>
  </link>
  <!-- gazebo -->
  <gazebo reference="board_18x600x150_144">
    <static>true</static>
  </gazebo>
  <!-- fixed joint -->
  <joint name="board_18x600x150_151_joint" type="fixed">
    <origin rpy="-1.925516435238558e-13 -0.29391344603586433 -3.141592653589113" xyz="2.239725698044818 -3.602499999998202 1.0666382281287212"/>
    <parent link="world"/>
    <child link="board_18x600x150_151"/>
  </joint>
  <!-- link -->
  <link name="board_18x600x150_151">
    <!-- inertial -->
    <inertial>
      <origin rpy="0 0 0" xyz="0 0 0"/>
      <mass value="1"/>
      <inertia ixx="1.0" ixy="0.0" ixz="0.0" iyy="1.0" iyz="0.0" izz="1.0"/>
    </inertial>
    <!-- visual -->
    <visual>
      <origin rpy="0 0 0" xyz="0 0 0"/>
      <geometry>
        <mesh filename="package://ICRA2024_Quadruped_Competition/meshes/visual/board_18x600x150.obj"/>
      </geometry>
      <material name="">
        <color rgba="0.92 0.93 0.90 1"/>
      </material>
    </visual>
    <!-- collision -->
    <collision>
      <origin rpy="0 0 0" xyz="0 0 0"/>
      <geometry>
        <mesh filename="package://ICRA2024_Quadruped_Competition/meshes/visual/board_18x600x150.obj"/>
      </geometry>
      <material name="">
        <color rgba="1 0 0 1"/>
      </material>
    </collision>
  </link>
  <!-- gazebo -->
  <gazebo reference="board_18x600x150_151">
    <static>true</static>
  </gazebo>
  <!-- fixed joint -->
  <joint name="board_18x600x150_160_joint" type="fixed">
    <origin rpy="1.8334321020497998e-13 0.29391344603586445 -3.141592653589176" xyz="4.068459535928805 -3.6024999999982024 1.0721425292970994"/>
    <parent link="world"/>
    <child link="board_18x600x150_160"/>
  </joint>
  <!-- link -->
  <link name="board_18x600x150_160">
    <!-- inertial -->
    <inertial>
      <origin rpy="0 0 0" xyz="0 0 0"/>
      <mass value="1"/>
      <inertia ixx="1.0" ixy="0.0" ixz="0.0" iyy="1.0" iyz="0.0" izz="1.0"/>
    </inertial>
    <!-- visual -->
    <visual>
      <origin rpy="0 0 0" xyz="0 0 0"/>
      <geometry>
        <mesh filename="package://ICRA2024_Quadruped_Competition/meshes/visual/board_18x600x150.obj"/>
      </geometry>
      <material name="">
        <color rgba="0.92 0.93 0.90 1"/>
      </material>
    </visual>
    <!-- collision -->
    <collision>
      <origin rpy="0 0 0" xyz="0 0 0"/>
      <geometry>
        <mesh filename="package://ICRA2024_Quadruped_Competition/meshes/visual/board_18x600x150.obj"/>
      </geometry>
      <material name="">
        <color rgba="1 0 0 1"/>
      </material>
    </collision>
  </link>
  <!-- gazebo -->
  <gazebo reference="board_18x600x150_160">
    <static>true</static>
  </gazebo>
  <!-- fixed joint -->
  <joint name="board_18x600x150_172_joint" type="fixed">
    <origin rpy="0.0 -0.0 -3.1415926535891723" xyz="-6.246999999092234 -3.620499999998136 0.41100000000000003"/>
    <parent link="world"/>
    <child link="board_18x600x150_172"/>
  </joint>
  <!-- link -->
  <link name="board_18x600x150_172">
    <!-- inertial -->
    <inertial>
      <origin rpy="0 0 0" xyz="0 0 0"/>
      <mass value="1"/>
      <inertia ixx="1.0" ixy="0.0" ixz="0.0" iyy="1.0" iyz="0.0" izz="1.0"/>
    </inertial>
    <!-- visual -->
    <visual>
      <origin rpy="0 0 0" xyz="0 0 0"/>
      <geometry>
        <mesh filename="package://ICRA2024_Quadruped_Competition/meshes/visual/board_18x600x150.obj"/>
      </geometry>
      <material name="">
        <color rgba="0.92 0.93 0.90 1"/>
      </material>
    </visual>
    <!-- collision -->
    <collision>
      <origin rpy="0 0 0" xyz="0 0 0"/>
      <geometry>
        <mesh filename="package://ICRA2024_Quadruped_Competition/meshes/visual/board_18x600x150.obj"/>
      </geometry>
      <material name="">
        <color rgba="1 0 0 1"/>
      </material>
    </collision>
  </link>
  <!-- gazebo -->
  <gazebo reference="board_18x600x150_172">
    <static>true</static>
  </gazebo>
  <!-- fixed joint -->
  <joint name="board_18x600x150_177_joint" type="fixed">
    <origin rpy="0.0 -0.0 -3.1415926535891723" xyz="0.8030000009077662 -3.6024999999981335 0.41100000000000003"/>
    <parent link="world"/>
    <child link="board_18x600x150_177"/>
  </joint>
  <!-- link -->
  <link name="board_18x600x150_177">
    <!-- inertial -->
    <inertial>
      <origin rpy="0 0 0" xyz="0 0 0"/>
      <mass value="1"/>
      <inertia ixx="1.0" ixy="0.0" ixz="0.0" iyy="1.0" iyz="0.0" izz="1.0"/>
    </inertial>
    <!-- visual -->
    <visual>
      <origin rpy="0 0 0" xyz="0 0 0"/>
      <geometry>
        <mesh filename="package://ICRA2024_Quadruped_Competition/meshes/visual/board_18x600x150.obj"/>
      </geometry>
      <material name="">
        <color rgba="0.92 0.93 0.90 1"/>
      </material>
    </visual>
    <!-- collision -->
    <collision>
      <origin rpy="0 0 0" xyz="0 0 0"/>
      <geometry>
        <mesh filename="package://ICRA2024_Quadruped_Competition/meshes/visual/board_18x600x150.obj"/>
      </geometry>
      <material name="">
        <color rgba="1 0 0 1"/>
      </material>
    </collision>
  </link>
  <!-- gazebo -->
  <gazebo reference="board_18x600x150_177">
    <static>true</static>
  </gazebo>
  <!-- fixed joint -->
  <joint name="board_18x600x150_186_joint" type="fixed">
    <origin rpy="1.832777359093617e-13 0.29391344603586445 -3.141592653589176" xyz="-1.7995404640711954 -3.602499999998204 1.0721425292970992"/>
    <parent link="world"/>
    <child link="board_18x600x150_186"/>
  </joint>
  <!-- link -->
  <link name="board_18x600x150_186">
    <!-- inertial -->
    <inertial>
      <origin rpy="0 0 0" xyz="0 0 0"/>
      <mass value="1"/>
      <inertia ixx="1.0" ixy="0.0" ixz="0.0" iyy="1.0" iyz="0.0" izz="1.0"/>
    </inertial>
    <!-- visual -->
    <visual>
      <origin rpy="0 0 0" xyz="0 0 0"/>
      <geometry>
        <mesh filename="package://ICRA2024_Quadruped_Competition/meshes/visual/board_18x600x150.obj"/>
      </geometry>
      <material name="">
        <color rgba="0.92 0.93 0.90 1"/>
      </material>
    </visual>
    <!-- collision -->
    <collision>
      <origin rpy="0 0 0" xyz="0 0 0"/>
      <geometry>
        <mesh filename="package://ICRA2024_Quadruped_Competition/meshes/visual/board_18x600x150.obj"/>
      </geometry>
      <material name="">
        <color rgba="1 0 0 1"/>
      </material>
    </collision>
  </link>
  <!-- gazebo -->
  <gazebo reference="board_18x600x150_186">
    <static>true</static>
  </gazebo>
  <!-- fixed joint -->
  <joint name="board_18x600x150_195_joint" type="fixed">
    <origin rpy="-1.9255164352385588e-13 -0.29391344603586445 -3.141592653589113" xyz="-3.6292314194371778 -3.6024999999982046 1.0669279281902653"/>
    <parent link="world"/>
    <child link="board_18x600x150_195"/>
  </joint>
  <!-- link -->
  <link name="board_18x600x150_195">
    <!-- inertial -->
    <inertial>
      <origin rpy="0 0 0" xyz="0 0 0"/>
      <mass value="1"/>
      <inertia ixx="1.0" ixy="0.0" ixz="0.0" iyy="1.0" iyz="0.0" izz="1.0"/>
    </inertial>
    <!-- visual -->
    <visual>
      <origin rpy="0 0 0" xyz="0 0 0"/>
      <geometry>
        <mesh filename="package://ICRA2024_Quadruped_Competition/meshes/visual/board_18x600x150.obj"/>
      </geometry>
      <material name="">
        <color rgba="0.92 0.93 0.90 1"/>
      </material>
    </visual>
    <!-- collision -->
    <collision>
      <origin rpy="0 0 0" xyz="0 0 0"/>
      <geometry>
        <mesh filename="package://ICRA2024_Quadruped_Competition/meshes/visual/board_18x600x150.obj"/>
      </geometry>
      <material name="">
        <color rgba="1 0 0 1"/>
      </material>
    </collision>
  </link>
  <!-- gazebo -->
  <gazebo reference="board_18x600x150_195">
    <static>true</static>
  </gazebo>
  <!-- fixed joint -->
  <joint name="board_18x600x2400_33_joint" type="fixed">
    <origin rpy="0.0 -0.0 0.0" xyz="5.545000000909425 2.4025000000000056 0.3"/>
    <parent link="world"/>
    <child link="board_18x600x2400_33"/>
  </joint>
  <!-- link -->
  <link name="board_18x600x2400_33">
    <!-- inertial -->
    <inertial>
      <origin rpy="0 0 0" xyz="0 0 0"/>
      <mass value="1"/>
      <inertia ixx="1.0" ixy="0.0" ixz="0.0" iyy="1.0" iyz="0.0" izz="1.0"/>
    </inertial>
    <!-- visual -->
    <visual>
      <origin rpy="0 0 0" xyz="0 0 0"/>
      <geometry>
        <mesh filename="package://ICRA2024_Quadruped_Competition/meshes/visual/board_18x600x2400.obj"/>
      </geometry>
      <material name="">
        <color rgba="0.92 0.93 0.90 1"/>
      </material>
    </visual>
    <!-- collision -->
    <collision>
      <origin rpy="0 0 0" xyz="0 0 0"/>
      <geometry>
        <mesh filename="package://ICRA2024_Quadruped_Competition/meshes/visual/board_18x600x2400.obj"/>
      </geometry>
      <material name="">
        <color rgba="1 0 0 1"/>
      </material>
    </collision>
  </link>
  <!-- gazebo -->
  <gazebo reference="board_18x600x2400_33">
    <static>true</static>
  </gazebo>
  <!-- fixed joint -->
  <joint name="board_18x600x2400_34_joint" type="fixed">
    <origin rpy="0.0 -0.0 0.0" xyz="0.7450000009094255 4.820500000000006 0.3"/>
    <parent link="world"/>
    <child link="board_18x600x2400_34"/>
  </joint>
  <!-- link -->
  <link name="board_18x600x2400_34">
    <!-- inertial -->
    <inertial>
      <origin rpy="0 0 0" xyz="0 0 0"/>
      <mass value="1"/>
      <inertia ixx="1.0" ixy="0.0" ixz="0.0" iyy="1.0" iyz="0.0" izz="1.0"/>
    </inertial>
    <!-- visual -->
    <visual>
      <origin rpy="0 0 0" xyz="0 0 0"/>
      <geometry>
        <mesh filename="package://ICRA2024_Quadruped_Competition/meshes/visual/board_18x600x2400.obj"/>
      </geometry>
      <material name="">
        <color rgba="0.92 0.93 0.90 1"/>
      </material>
    </visual>
    <!-- collision -->
    <collision>
      <origin rpy="0 0 0" xyz="0 0 0"/>
      <geometry>
        <mesh filename="package://ICRA2024_Quadruped_Competition/meshes/visual/board_18x600x2400.obj"/>
      </geometry>
      <material name="">
        <color rgba="1 0 0 1"/>
      </material>
    </collision>
  </link>
  <!-- gazebo -->
  <gazebo reference="board_18x600x2400_34">
    <static>true</static>
  </gazebo>
  <!-- fixed joint -->
  <joint name="board_18x600x2400_47_joint" type="fixed">
    <origin rpy="4.636953807247085e-15 -0.2939134460358645 -3.132572119938244e-14" xyz="3.0066309608408903 4.820499999999971 0.6347753184513704"/>
    <parent link="world"/>
    <child link="board_18x600x2400_47"/>
  </joint>
  <!-- link -->
  <link name="board_18x600x2400_47">
    <!-- inertial -->
    <inertial>
      <origin rpy="0 0 0" xyz="0 0 0"/>
      <mass value="1"/>
      <inertia ixx="1.0" ixy="0.0" ixz="0.0" iyy="1.0" iyz="0.0" izz="1.0"/>
    </inertial>
    <!-- visual -->
    <visual>
      <origin rpy="0 0 0" xyz="0 0 0"/>
      <geometry>
        <mesh filename="package://ICRA2024_Quadruped_Competition/meshes/visual/board_18x600x2400.obj"/>
      </geometry>
      <material name="">
        <color rgba="0.92 0.93 0.90 1"/>
      </material>
    </visual>
    <!-- collision -->
    <collision>
      <origin rpy="0 0 0" xyz="0 0 0"/>
      <geometry>
        <mesh filename="package://ICRA2024_Quadruped_Competition/meshes/visual/board_18x600x2400.obj"/>
      </geometry>
      <material name="">
        <color rgba="1 0 0 1"/>
      </material>
    </collision>
  </link>
  <!-- gazebo -->
  <gazebo reference="board_18x600x2400_47">
    <static>true</static>
  </gazebo>
  <!-- fixed joint -->
  <joint name="board_18x600x2400_66_joint" type="fixed">
    <origin rpy="4.636953807247085e-15 0.2939134460358645 3.132572119938244e-14" xyz="3.283369040977996 2.4024999999999705 0.6347753184513651"/>
    <parent link="world"/>
    <child link="board_18x600x2400_66"/>
  </joint>
  <!-- link -->
  <link name="board_18x600x2400_66">
    <!-- inertial -->
    <inertial>
      <origin rpy="0 0 0" xyz="0 0 0"/>
      <mass value="1"/>
      <inertia ixx="1.0" ixy="0.0" ixz="0.0" iyy="1.0" iyz="0.0" izz="1.0"/>
    </inertial>
    <!-- visual -->
    <visual>
      <origin rpy="0 0 0" xyz="0 0 0"/>
      <geometry>
        <mesh filename="package://ICRA2024_Quadruped_Competition/meshes/visual/board_18x600x2400.obj"/>
      </geometry>
      <material name="">
        <color rgba="0.92 0.93 0.90 1"/>
      </material>
    </visual>
    <!-- collision -->
    <collision>
      <origin rpy="0 0 0" xyz="0 0 0"/>
      <geometry>
        <mesh filename="package://ICRA2024_Quadruped_Competition/meshes/visual/board_18x600x2400.obj"/>
      </geometry>
      <material name="">
        <color rgba="1 0 0 1"/>
      </material>
    </collision>
  </link>
  <!-- gazebo -->
  <gazebo reference="board_18x600x2400_66">
    <static>true</static>
  </gazebo>
  <!-- fixed joint -->
  <joint name="board_18x600x2400_97_joint" type="fixed">
    <origin rpy="0.0 -0.0 0.0" xyz="-0.322999999090575 2.402500000000003 0.3"/>
    <parent link="world"/>
    <child link="board_18x600x2400_97"/>
  </joint>
  <!-- link -->
  <link name="board_18x600x2400_97">
    <!-- inertial -->
    <inertial>
      <origin rpy="0 0 0" xyz="0 0 0"/>
      <mass value="1"/>
      <inertia ixx="1.0" ixy="0.0" ixz="0.0" iyy="1.0" iyz="0.0" izz="1.0"/>
    </inertial>
    <!-- visual -->
    <visual>
      <origin rpy="0 0 0" xyz="0 0 0"/>
      <geometry>
        <mesh filename="package://ICRA2024_Quadruped_Competition/meshes/visual/board_18x600x2400.obj"/>
      </geometry>
      <material name="">
        <color rgba="0.92 0.93 0.90 1"/>
      </material>
    </visual>
    <!-- collision -->
    <collision>
      <origin rpy="0 0 0" xyz="0 0 0"/>
      <geometry>
        <mesh filename="package://ICRA2024_Quadruped_Competition/meshes/visual/board_18x600x2400.obj"/>
      </geometry>
      <material name="">
        <color rgba="1 0 0 1"/>
      </material>
    </collision>
  </link>
  <!-- gazebo -->
  <gazebo reference="board_18x600x2400_97">
    <static>true</static>
  </gazebo>
  <!-- fixed joint -->
  <joint name="board_18x600x2400_98_joint" type="fixed">
    <origin rpy="0.0 -0.0 0.0" xyz="-5.122999999090575 4.820500000000003 0.3"/>
    <parent link="world"/>
    <child link="board_18x600x2400_98"/>
  </joint>
  <!-- link -->
  <link name="board_18x600x2400_98">
    <!-- inertial -->
    <inertial>
      <origin rpy="0 0 0" xyz="0 0 0"/>
      <mass value="1"/>
      <inertia ixx="1.0" ixy="0.0" ixz="0.0" iyy="1.0" iyz="0.0" izz="1.0"/>
    </inertial>
    <!-- visual -->
    <visual>
      <origin rpy="0 0 0" xyz="0 0 0"/>
      <geometry>
        <mesh filename="package://ICRA2024_Quadruped_Competition/meshes/visual/board_18x600x2400.obj"/>
      </geometry>
      <material name="">
        <color rgba="0.92 0.93 0.90 1"/>
      </material>
    </visual>
    <!-- collision -->
    <collision>
      <origin rpy="0 0 0" xyz="0 0 0"/>
      <geometry>
        <mesh filename="package://ICRA2024_Quadruped_Competition/meshes/visual/board_18x600x2400.obj"/>
      </geometry>
      <material name="">
        <color rgba="1 0 0 1"/>
      </material>
    </collision>
  </link>
  <!-- gazebo -->
  <gazebo reference="board_18x600x2400_98">
    <static>true</static>
  </gazebo>
  <!-- fixed joint -->
  <joint name="board_18x600x2400_114_joint" type="fixed">
    <origin rpy="4.636953807247085e-15 -0.2939134460358645 -3.132572119938244e-14" xyz="-2.86136903915911 4.820499999999967 0.6347753184513704"/>
    <parent link="world"/>
    <child link="board_18x600x2400_114"/>
  </joint>
  <!-- link -->
  <link name="board_18x600x2400_114">
    <!-- inertial -->
    <inertial>
      <origin rpy="0 0 0" xyz="0 0 0"/>
      <mass value="1"/>
      <inertia ixx="1.0" ixy="0.0" ixz="0.0" iyy="1.0" iyz="0.0" izz="1.0"/>
    </inertial>
    <!-- visual -->
    <visual>
      <origin rpy="0 0 0" xyz="0 0 0"/>
      <geometry>
        <mesh filename="package://ICRA2024_Quadruped_Competition/meshes/visual/board_18x600x2400.obj"/>
      </geometry>
      <material name="">
        <color rgba="0.92 0.93 0.90 1"/>
      </material>
    </visual>
    <!-- collision -->
    <collision>
      <origin rpy="0 0 0" xyz="0 0 0"/>
      <geometry>
        <mesh filename="package://ICRA2024_Quadruped_Competition/meshes/visual/board_18x600x2400.obj"/>
      </geometry>
      <material name="">
        <color rgba="1 0 0 1"/>
      </material>
    </collision>
  </link>
  <!-- gazebo -->
  <gazebo reference="board_18x600x2400_114">
    <static>true</static>
  </gazebo>
  <!-- fixed joint -->
  <joint name="board_18x600x2400_128_joint" type="fixed">
    <origin rpy="4.636953807247085e-15 0.2939134460358645 3.132572119938244e-14" xyz="-2.5846309590220042 2.4024999999999683 0.6347753184513649"/>
    <parent link="world"/>
    <child link="board_18x600x2400_128"/>
  </joint>
  <!-- link -->
  <link name="board_18x600x2400_128">
    <!-- inertial -->
    <inertial>
      <origin rpy="0 0 0" xyz="0 0 0"/>
      <mass value="1"/>
      <inertia ixx="1.0" ixy="0.0" ixz="0.0" iyy="1.0" iyz="0.0" izz="1.0"/>
    </inertial>
    <!-- visual -->
    <visual>
      <origin rpy="0 0 0" xyz="0 0 0"/>
      <geometry>
        <mesh filename="package://ICRA2024_Quadruped_Competition/meshes/visual/board_18x600x2400.obj"/>
      </geometry>
      <material name="">
        <color rgba="0.92 0.93 0.90 1"/>
      </material>
    </visual>
    <!-- collision -->
    <collision>
      <origin rpy="0 0 0" xyz="0 0 0"/>
      <geometry>
        <mesh filename="package://ICRA2024_Quadruped_Competition/meshes/visual/board_18x600x2400.obj"/>
      </geometry>
      <material name="">
        <color rgba="1 0 0 1"/>
      </material>
    </collision>
  </link>
  <!-- gazebo -->
  <gazebo reference="board_18x600x2400_128">
    <static>true</static>
  </gazebo>
  <!-- fixed joint -->
  <joint name="board_18x600x2400_134_joint" type="fixed">
    <origin rpy="0.0 -0.0 0.0" xyz="5.545000000909425 -2.402500000000003 0.3"/>
    <parent link="world"/>
    <child link="board_18x600x2400_134"/>
  </joint>
  <!-- link -->
  <link name="board_18x600x2400_134">
    <!-- inertial -->
    <inertial>
      <origin rpy="0 0 0" xyz="0 0 0"/>
      <mass value="1"/>
      <inertia ixx="1.0" ixy="0.0" ixz="0.0" iyy="1.0" iyz="0.0" izz="1.0"/>
    </inertial>
    <!-- visual -->
    <visual>
      <origin rpy="0 0 0" xyz="0 0 0"/>
      <geometry>
        <mesh filename="package://ICRA2024_Quadruped_Competition/meshes/visual/board_18x600x2400.obj"/>
      </geometry>
      <material name="">
        <color rgba="0.92 0.93 0.90 1"/>
      </material>
    </visual>
    <!-- collision -->
    <collision>
      <origin rpy="0 0 0" xyz="0 0 0"/>
      <geometry>
        <mesh filename="package://ICRA2024_Quadruped_Competition/meshes/visual/board_18x600x2400.obj"/>
      </geometry>
      <material name="">
        <color rgba="1 0 0 1"/>
      </material>
    </collision>
  </link>
  <!-- gazebo -->
  <gazebo reference="board_18x600x2400_134">
    <static>true</static>
  </gazebo>
  <!-- fixed joint -->
  <joint name="board_18x600x2400_145_joint" type="fixed">
    <origin rpy="0.0 -0.0 0.0" xyz="0.7450000009094255 -4.820500000000003 0.3"/>
    <parent link="world"/>
    <child link="board_18x600x2400_145"/>
  </joint>
  <!-- link -->
  <link name="board_18x600x2400_145">
    <!-- inertial -->
    <inertial>
      <origin rpy="0 0 0" xyz="0 0 0"/>
      <mass value="1"/>
      <inertia ixx="1.0" ixy="0.0" ixz="0.0" iyy="1.0" iyz="0.0" izz="1.0"/>
    </inertial>
    <!-- visual -->
    <visual>
      <origin rpy="0 0 0" xyz="0 0 0"/>
      <geometry>
        <mesh filename="package://ICRA2024_Quadruped_Competition/meshes/visual/board_18x600x2400.obj"/>
      </geometry>
      <material name="">
        <color rgba="0.92 0.93 0.90 1"/>
      </material>
    </visual>
    <!-- collision -->
    <collision>
      <origin rpy="0 0 0" xyz="0 0 0"/>
      <geometry>
        <mesh filename="package://ICRA2024_Quadruped_Competition/meshes/visual/board_18x600x2400.obj"/>
      </geometry>
      <material name="">
        <color rgba="1 0 0 1"/>
      </material>
    </collision>
  </link>
  <!-- gazebo -->
  <gazebo reference="board_18x600x2400_145">
    <static>true</static>
  </gazebo>
  <!-- fixed joint -->
  <joint name="board_18x600x2400_150_joint" type="fixed">
    <origin rpy="4.636953807247084e-15 0.2939134460358644 3.132572119938244e-14" xyz="3.2833690409779592 -2.4025000000000367 0.6347753184513704"/>
    <parent link="world"/>
    <child link="board_18x600x2400_150"/>
  </joint>
  <!-- link -->
  <link name="board_18x600x2400_150">
    <!-- inertial -->
    <inertial>
      <origin rpy="0 0 0" xyz="0 0 0"/>
      <mass value="1"/>
      <inertia ixx="1.0" ixy="0.0" ixz="0.0" iyy="1.0" iyz="0.0" izz="1.0"/>
    </inertial>
    <!-- visual -->
    <visual>
      <origin rpy="0 0 0" xyz="0 0 0"/>
      <geometry>
        <mesh filename="package://ICRA2024_Quadruped_Competition/meshes/visual/board_18x600x2400.obj"/>
      </geometry>
      <material name="">
        <color rgba="0.92 0.93 0.90 1"/>
      </material>
    </visual>
    <!-- collision -->
    <collision>
      <origin rpy="0 0 0" xyz="0 0 0"/>
      <geometry>
        <mesh filename="package://ICRA2024_Quadruped_Competition/meshes/visual/board_18x600x2400.obj"/>
      </geometry>
      <material name="">
        <color rgba="1 0 0 1"/>
      </material>
    </collision>
  </link>
  <!-- gazebo -->
  <gazebo reference="board_18x600x2400_150">
    <static>true</static>
  </gazebo>
  <!-- fixed joint -->
  <joint name="board_18x600x2400_156_joint" type="fixed">
    <origin rpy="4.571479511628805e-15 -0.2939134460358645 -3.109156540223107e-14" xyz="3.0066309608408543 -4.820500000000037 0.634775318451365"/>
    <parent link="world"/>
    <child link="board_18x600x2400_156"/>
  </joint>
  <!-- link -->
  <link name="board_18x600x2400_156">
    <!-- inertial -->
    <inertial>
      <origin rpy="0 0 0" xyz="0 0 0"/>
      <mass value="1"/>
      <inertia ixx="1.0" ixy="0.0" ixz="0.0" iyy="1.0" iyz="0.0" izz="1.0"/>
    </inertial>
    <!-- visual -->
    <visual>
      <origin rpy="0 0 0" xyz="0 0 0"/>
      <geometry>
        <mesh filename="package://ICRA2024_Quadruped_Competition/meshes/visual/board_18x600x2400.obj"/>
      </geometry>
      <material name="">
        <color rgba="0.92 0.93 0.90 1"/>
      </material>
    </visual>
    <!-- collision -->
    <collision>
      <origin rpy="0 0 0" xyz="0 0 0"/>
      <geometry>
        <mesh filename="package://ICRA2024_Quadruped_Competition/meshes/visual/board_18x600x2400.obj"/>
      </geometry>
      <material name="">
        <color rgba="1 0 0 1"/>
      </material>
    </collision>
  </link>
  <!-- gazebo -->
  <gazebo reference="board_18x600x2400_156">
    <static>true</static>
  </gazebo>
  <!-- fixed joint -->
  <joint name="board_18x600x2400_165_joint" type="fixed">
    <origin rpy="0.0 -0.0 0.0" xyz="-0.322999999090575 -2.4025000000000047 0.3"/>
    <parent link="world"/>
    <child link="board_18x600x2400_165"/>
  </joint>
  <!-- link -->
  <link name="board_18x600x2400_165">
    <!-- inertial -->
    <inertial>
      <origin rpy="0 0 0" xyz="0 0 0"/>
      <mass value="1"/>
      <inertia ixx="1.0" ixy="0.0" ixz="0.0" iyy="1.0" iyz="0.0" izz="1.0"/>
    </inertial>
    <!-- visual -->
    <visual>
      <origin rpy="0 0 0" xyz="0 0 0"/>
      <geometry>
        <mesh filename="package://ICRA2024_Quadruped_Competition/meshes/visual/board_18x600x2400.obj"/>
      </geometry>
      <material name="">
        <color rgba="0.92 0.93 0.90 1"/>
      </material>
    </visual>
    <!-- collision -->
    <collision>
      <origin rpy="0 0 0" xyz="0 0 0"/>
      <geometry>
        <mesh filename="package://ICRA2024_Quadruped_Competition/meshes/visual/board_18x600x2400.obj"/>
      </geometry>
      <material name="">
        <color rgba="1 0 0 1"/>
      </material>
    </collision>
  </link>
  <!-- gazebo -->
  <gazebo reference="board_18x600x2400_165">
    <static>true</static>
  </gazebo>
  <!-- fixed joint -->
  <joint name="board_18x600x2400_176_joint" type="fixed">
    <origin rpy="0.0 -0.0 0.0" xyz="-5.122999999090575 -4.8205000000000044 0.3"/>
    <parent link="world"/>
    <child link="board_18x600x2400_176"/>
  </joint>
  <!-- link -->
  <link name="board_18x600x2400_176">
    <!-- inertial -->
    <inertial>
      <origin rpy="0 0 0" xyz="0 0 0"/>
      <mass value="1"/>
      <inertia ixx="1.0" ixy="0.0" ixz="0.0" iyy="1.0" iyz="0.0" izz="1.0"/>
    </inertial>
    <!-- visual -->
    <visual>
      <origin rpy="0 0 0" xyz="0 0 0"/>
      <geometry>
        <mesh filename="package://ICRA2024_Quadruped_Competition/meshes/visual/board_18x600x2400.obj"/>
      </geometry>
      <material name="">
        <color rgba="0.92 0.93 0.90 1"/>
      </material>
    </visual>
    <!-- collision -->
    <collision>
      <origin rpy="0 0 0" xyz="0 0 0"/>
      <geometry>
        <mesh filename="package://ICRA2024_Quadruped_Competition/meshes/visual/board_18x600x2400.obj"/>
      </geometry>
      <material name="">
        <color rgba="1 0 0 1"/>
      </material>
    </collision>
  </link>
  <!-- gazebo -->
  <gazebo reference="board_18x600x2400_176">
    <static>true</static>
  </gazebo>
  <!-- fixed joint -->
  <joint name="board_18x600x2400_184_joint" type="fixed">
    <origin rpy="4.636953807247085e-15 -0.2939134460358645 -3.132572119938244e-14" xyz="-2.861369039159147 -4.82050000000004 0.6347753184513647"/>
    <parent link="world"/>
    <child link="board_18x600x2400_184"/>
  </joint>
  <!-- link -->
  <link name="board_18x600x2400_184">
    <!-- inertial -->
    <inertial>
      <origin rpy="0 0 0" xyz="0 0 0"/>
      <mass value="1"/>
      <inertia ixx="1.0" ixy="0.0" ixz="0.0" iyy="1.0" iyz="0.0" izz="1.0"/>
    </inertial>
    <!-- visual -->
    <visual>
      <origin rpy="0 0 0" xyz="0 0 0"/>
      <geometry>
        <mesh filename="package://ICRA2024_Quadruped_Competition/meshes/visual/board_18x600x2400.obj"/>
      </geometry>
      <material name="">
        <color rgba="0.92 0.93 0.90 1"/>
      </material>
    </visual>
    <!-- collision -->
    <collision>
      <origin rpy="0 0 0" xyz="0 0 0"/>
      <geometry>
        <mesh filename="package://ICRA2024_Quadruped_Competition/meshes/visual/board_18x600x2400.obj"/>
      </geometry>
      <material name="">
        <color rgba="1 0 0 1"/>
      </material>
    </collision>
  </link>
  <!-- gazebo -->
  <gazebo reference="board_18x600x2400_184">
    <static>true</static>
  </gazebo>
  <!-- fixed joint -->
  <joint name="board_18x600x2400_192_joint" type="fixed">
    <origin rpy="4.636953807247085e-15 0.2939134460358645 3.132572119938244e-14" xyz="-2.5846309590220407 -2.4025000000000394 0.6347753184513705"/>
    <parent link="world"/>
    <child link="board_18x600x2400_192"/>
  </joint>
  <!-- link -->
  <link name="board_18x600x2400_192">
    <!-- inertial -->
    <inertial>
      <origin rpy="0 0 0" xyz="0 0 0"/>
      <mass value="1"/>
      <inertia ixx="1.0" ixy="0.0" ixz="0.0" iyy="1.0" iyz="0.0" izz="1.0"/>
    </inertial>
    <!-- visual -->
    <visual>
      <origin rpy="0 0 0" xyz="0 0 0"/>
      <geometry>
        <mesh filename="package://ICRA2024_Quadruped_Competition/meshes/visual/board_18x600x2400.obj"/>
      </geometry>
      <material name="">
        <color rgba="0.92 0.93 0.90 1"/>
      </material>
    </visual>
    <!-- collision -->
    <collision>
      <origin rpy="0 0 0" xyz="0 0 0"/>
      <geometry>
        <mesh filename="package://ICRA2024_Quadruped_Competition/meshes/visual/board_18x600x2400.obj"/>
      </geometry>
      <material name="">
        <color rgba="1 0 0 1"/>
      </material>
    </collision>
  </link>
  <!-- gazebo -->
  <gazebo reference="board_18x600x2400_192">
    <static>true</static>
  </gazebo>
  <!-- fixed joint -->
  <joint name="board_50x50x300_40_joint" type="fixed">
    <origin rpy="0.0 -0.0 0.0" xyz="6.720000000909427 3.5865000000000054 0.4500000000000001"/>
    <parent link="world"/>
    <child link="board_50x50x300_40"/>
  </joint>
  <!-- link -->
  <link name="board_50x50x300_40">
    <!-- inertial -->
    <inertial>
      <origin rpy="0 0 0" xyz="0 0 0"/>
      <mass value="1"/>
      <inertia ixx="1.0" ixy="0.0" ixz="0.0" iyy="1.0" iyz="0.0" izz="1.0"/>
    </inertial>
    <!-- visual -->
    <visual>
      <origin rpy="0 0 0" xyz="0 0 0"/>
      <geometry>
        <mesh filename="package://ICRA2024_Quadruped_Competition/meshes/visual/board_50x50x300.obj"/>
      </geometry>
      <material name="">
        <color rgba="0.92 0.93 0.90 1"/>
      </material>
    </visual>
    <!-- collision -->
    <collision>
      <origin rpy="0 0 0" xyz="0 0 0"/>
      <geometry>
        <mesh filename="package://ICRA2024_Quadruped_Competition/meshes/visual/board_50x50x300.obj"/>
      </geometry>
      <material name="">
        <color rgba="1 0 0 1"/>
      </material>
    </collision>
  </link>
  <!-- gazebo -->
  <gazebo reference="board_50x50x300_40">
    <static>true</static>
  </gazebo>
  <!-- fixed joint -->
  <joint name="board_50x50x300_41_joint" type="fixed">
    <origin rpy="0.0 -0.0 0.0" xyz="6.720000000909427 2.4365000000000077 0.4500000000000001"/>
    <parent link="world"/>
    <child link="board_50x50x300_41"/>
  </joint>
  <!-- link -->
  <link name="board_50x50x300_41">
    <!-- inertial -->
    <inertial>
      <origin rpy="0 0 0" xyz="0 0 0"/>
      <mass value="1"/>
      <inertia ixx="1.0" ixy="0.0" ixz="0.0" iyy="1.0" iyz="0.0" izz="1.0"/>
    </inertial>
    <!-- visual -->
    <visual>
      <origin rpy="0 0 0" xyz="0 0 0"/>
      <geometry>
        <mesh filename="package://ICRA2024_Quadruped_Competition/meshes/visual/board_50x50x300.obj"/>
      </geometry>
      <material name="">
        <color rgba="0.92 0.93 0.90 1"/>
      </material>
    </visual>
    <!-- collision -->
    <collision>
      <origin rpy="0 0 0" xyz="0 0 0"/>
      <geometry>
        <mesh filename="package://ICRA2024_Quadruped_Competition/meshes/visual/board_50x50x300.obj"/>
      </geometry>
      <material name="">
        <color rgba="1 0 0 1"/>
      </material>
    </collision>
  </link>
  <!-- gazebo -->
  <gazebo reference="board_50x50x300_41">
    <static>true</static>
  </gazebo>
  <!-- fixed joint -->
  <joint name="board_50x50x300_42_joint" type="fixed">
    <origin rpy="0.0 -0.0 0.0" xyz="-0.42999999909057296 4.786500000000002 0.4500000000000001"/>
    <parent link="world"/>
    <child link="board_50x50x300_42"/>
  </joint>
  <!-- link -->
  <link name="board_50x50x300_42">
    <!-- inertial -->
    <inertial>
      <origin rpy="0 0 0" xyz="0 0 0"/>
      <mass value="1"/>
      <inertia ixx="1.0" ixy="0.0" ixz="0.0" iyy="1.0" iyz="0.0" izz="1.0"/>
    </inertial>
    <!-- visual -->
    <visual>
      <origin rpy="0 0 0" xyz="0 0 0"/>
      <geometry>
        <mesh filename="package://ICRA2024_Quadruped_Competition/meshes/visual/board_50x50x300.obj"/>
      </geometry>
      <material name="">
        <color rgba="0.92 0.93 0.90 1"/>
      </material>
    </visual>
    <!-- collision -->
    <collision>
      <origin rpy="0 0 0" xyz="0 0 0"/>
      <geometry>
        <mesh filename="package://ICRA2024_Quadruped_Competition/meshes/visual/board_50x50x300.obj"/>
      </geometry>
      <material name="">
        <color rgba="1 0 0 1"/>
      </material>
    </collision>
  </link>
  <!-- gazebo -->
  <gazebo reference="board_50x50x300_42">
    <static>true</static>
  </gazebo>
  <!-- fixed joint -->
  <joint name="board_50x50x300_43_joint" type="fixed">
    <origin rpy="0.0 -0.0 0.0" xyz="-0.42999999909057296 3.6505000000000014 0.4500000000000001"/>
    <parent link="world"/>
    <child link="board_50x50x300_43"/>
  </joint>
  <!-- link -->
  <link name="board_50x50x300_43">
    <!-- inertial -->
    <inertial>
      <origin rpy="0 0 0" xyz="0 0 0"/>
      <mass value="1"/>
      <inertia ixx="1.0" ixy="0.0" ixz="0.0" iyy="1.0" iyz="0.0" izz="1.0"/>
    </inertial>
    <!-- visual -->
    <visual>
      <origin rpy="0 0 0" xyz="0 0 0"/>
      <geometry>
        <mesh filename="package://ICRA2024_Quadruped_Competition/meshes/visual/board_50x50x300.obj"/>
      </geometry>
      <material name="">
        <color rgba="0.92 0.93 0.90 1"/>
      </material>
    </visual>
    <!-- collision -->
    <collision>
      <origin rpy="0 0 0" xyz="0 0 0"/>
      <geometry>
        <mesh filename="package://ICRA2024_Quadruped_Competition/meshes/visual/board_50x50x300.obj"/>
      </geometry>
      <material name="">
        <color rgba="1 0 0 1"/>
      </material>
    </collision>
  </link>
  <!-- gazebo -->
  <gazebo reference="board_50x50x300_43">
    <static>true</static>
  </gazebo>
  <!-- fixed joint -->
  <joint name="board_50x50x300_48_joint" type="fixed">
    <origin rpy="4.636953807247085e-15 -0.2939134460358645 -3.132572119938244e-14" xyz="4.087788992954038 4.786499999999933 1.1187405130648116"/>
    <parent link="world"/>
    <child link="board_50x50x300_48"/>
  </joint>
  <!-- link -->
  <link name="board_50x50x300_48">
    <!-- inertial -->
    <inertial>
      <origin rpy="0 0 0" xyz="0 0 0"/>
      <mass value="1"/>
      <inertia ixx="1.0" ixy="0.0" ixz="0.0" iyy="1.0" iyz="0.0" izz="1.0"/>
    </inertial>
    <!-- visual -->
    <visual>
      <origin rpy="0 0 0" xyz="0 0 0"/>
      <geometry>
        <mesh filename="package://ICRA2024_Quadruped_Competition/meshes/visual/board_50x50x300.obj"/>
      </geometry>
      <material name="">
        <color rgba="0.92 0.93 0.90 1"/>
      </material>
    </visual>
    <!-- collision -->
    <collision>
      <origin rpy="0 0 0" xyz="0 0 0"/>
      <geometry>
        <mesh filename="package://ICRA2024_Quadruped_Competition/meshes/visual/board_50x50x300.obj"/>
      </geometry>
      <material name="">
        <color rgba="1 0 0 1"/>
      </material>
    </collision>
  </link>
  <!-- gazebo -->
  <gazebo reference="board_50x50x300_48">
    <static>true</static>
  </gazebo>
  <!-- fixed joint -->
  <joint name="board_50x50x300_51_joint" type="fixed">
    <origin rpy="4.636953807247085e-15 -0.2939134460358645 -3.132572119938244e-14" xyz="4.087788992954003 3.6544999999999357 1.1187405130648067"/>
    <parent link="world"/>
    <child link="board_50x50x300_51"/>
  </joint>
  <!-- link -->
  <link name="board_50x50x300_51">
    <!-- inertial -->
    <inertial>
      <origin rpy="0 0 0" xyz="0 0 0"/>
      <mass value="1"/>
      <inertia ixx="1.0" ixy="0.0" ixz="0.0" iyy="1.0" iyz="0.0" izz="1.0"/>
    </inertial>
    <!-- visual -->
    <visual>
      <origin rpy="0 0 0" xyz="0 0 0"/>
      <geometry>
        <mesh filename="package://ICRA2024_Quadruped_Competition/meshes/visual/board_50x50x300.obj"/>
      </geometry>
      <material name="">
        <color rgba="0.92 0.93 0.90 1"/>
      </material>
    </visual>
    <!-- collision -->
    <collision>
      <origin rpy="0 0 0" xyz="0 0 0"/>
      <geometry>
        <mesh filename="package://ICRA2024_Quadruped_Competition/meshes/visual/board_50x50x300.obj"/>
      </geometry>
      <material name="">
        <color rgba="1 0 0 1"/>
      </material>
    </collision>
  </link>
  <!-- gazebo -->
  <gazebo reference="board_50x50x300_51">
    <static>true</static>
  </gazebo>
  <!-- fixed joint -->
  <joint name="board_50x50x300_64_joint" type="fixed">
    <origin rpy="4.636953807247085e-15 0.2939134460358645 3.132572119938244e-14" xyz="2.202211008864814 3.586499999999936 1.1187405130648114"/>
    <parent link="world"/>
    <child link="board_50x50x300_64"/>
  </joint>
  <!-- link -->
  <link name="board_50x50x300_64">
    <!-- inertial -->
    <inertial>
      <origin rpy="0 0 0" xyz="0 0 0"/>
      <mass value="1"/>
      <inertia ixx="1.0" ixy="0.0" ixz="0.0" iyy="1.0" iyz="0.0" izz="1.0"/>
    </inertial>
    <!-- visual -->
    <visual>
      <origin rpy="0 0 0" xyz="0 0 0"/>
      <geometry>
        <mesh filename="package://ICRA2024_Quadruped_Competition/meshes/visual/board_50x50x300.obj"/>
      </geometry>
      <material name="">
        <color rgba="0.92 0.93 0.90 1"/>
      </material>
    </visual>
    <!-- collision -->
    <collision>
      <origin rpy="0 0 0" xyz="0 0 0"/>
      <geometry>
        <mesh filename="package://ICRA2024_Quadruped_Competition/meshes/visual/board_50x50x300.obj"/>
      </geometry>
      <material name="">
        <color rgba="1 0 0 1"/>
      </material>
    </collision>
  </link>
  <!-- gazebo -->
  <gazebo reference="board_50x50x300_64">
    <static>true</static>
  </gazebo>
  <!-- fixed joint -->
  <joint name="board_50x50x300_65_joint" type="fixed">
    <origin rpy="4.636953807247085e-15 0.2939134460358645 3.132572119938244e-14" xyz="2.202211008864848 2.4364999999999384 1.1187405130648063"/>
    <parent link="world"/>
    <child link="board_50x50x300_65"/>
  </joint>
  <!-- link -->
  <link name="board_50x50x300_65">
    <!-- inertial -->
    <inertial>
      <origin rpy="0 0 0" xyz="0 0 0"/>
      <mass value="1"/>
      <inertia ixx="1.0" ixy="0.0" ixz="0.0" iyy="1.0" iyz="0.0" izz="1.0"/>
    </inertial>
    <!-- visual -->
    <visual>
      <origin rpy="0 0 0" xyz="0 0 0"/>
      <geometry>
        <mesh filename="package://ICRA2024_Quadruped_Competition/meshes/visual/board_50x50x300.obj"/>
      </geometry>
      <material name="">
        <color rgba="0.92 0.93 0.90 1"/>
      </material>
    </visual>
    <!-- collision -->
    <collision>
      <origin rpy="0 0 0" xyz="0 0 0"/>
      <geometry>
        <mesh filename="package://ICRA2024_Quadruped_Competition/meshes/visual/board_50x50x300.obj"/>
      </geometry>
      <material name="">
        <color rgba="1 0 0 1"/>
      </material>
    </collision>
  </link>
  <!-- gazebo -->
  <gazebo reference="board_50x50x300_65">
    <static>true</static>
  </gazebo>
  <!-- fixed joint -->
  <joint name="board_50x50x300_101_joint" type="fixed">
    <origin rpy="0.0 -0.0 0.0" xyz="0.8520000009094266 3.5865000000000027 0.4500000000000001"/>
    <parent link="world"/>
    <child link="board_50x50x300_101"/>
  </joint>
  <!-- link -->
  <link name="board_50x50x300_101">
    <!-- inertial -->
    <inertial>
      <origin rpy="0 0 0" xyz="0 0 0"/>
      <mass value="1"/>
      <inertia ixx="1.0" ixy="0.0" ixz="0.0" iyy="1.0" iyz="0.0" izz="1.0"/>
    </inertial>
    <!-- visual -->
    <visual>
      <origin rpy="0 0 0" xyz="0 0 0"/>
      <geometry>
        <mesh filename="package://ICRA2024_Quadruped_Competition/meshes/visual/board_50x50x300.obj"/>
      </geometry>
      <material name="">
        <color rgba="0.92 0.93 0.90 1"/>
      </material>
    </visual>
    <!-- collision -->
    <collision>
      <origin rpy="0 0 0" xyz="0 0 0"/>
      <geometry>
        <mesh filename="package://ICRA2024_Quadruped_Competition/meshes/visual/board_50x50x300.obj"/>
      </geometry>
      <material name="">
        <color rgba="1 0 0 1"/>
      </material>
    </collision>
  </link>
  <!-- gazebo -->
  <gazebo reference="board_50x50x300_101">
    <static>true</static>
  </gazebo>
  <!-- fixed joint -->
  <joint name="board_50x50x300_102_joint" type="fixed">
    <origin rpy="0.0 -0.0 0.0" xyz="0.8520000009094266 2.436500000000005 0.4500000000000001"/>
    <parent link="world"/>
    <child link="board_50x50x300_102"/>
  </joint>
  <!-- link -->
  <link name="board_50x50x300_102">
    <!-- inertial -->
    <inertial>
      <origin rpy="0 0 0" xyz="0 0 0"/>
      <mass value="1"/>
      <inertia ixx="1.0" ixy="0.0" ixz="0.0" iyy="1.0" iyz="0.0" izz="1.0"/>
    </inertial>
    <!-- visual -->
    <visual>
      <origin rpy="0 0 0" xyz="0 0 0"/>
      <geometry>
        <mesh filename="package://ICRA2024_Quadruped_Competition/meshes/visual/board_50x50x300.obj"/>
      </geometry>
      <material name="">
        <color rgba="0.92 0.93 0.90 1"/>
      </material>
    </visual>
    <!-- collision -->
    <collision>
      <origin rpy="0 0 0" xyz="0 0 0"/>
      <geometry>
        <mesh filename="package://ICRA2024_Quadruped_Competition/meshes/visual/board_50x50x300.obj"/>
      </geometry>
      <material name="">
        <color rgba="1 0 0 1"/>
      </material>
    </collision>
  </link>
  <!-- gazebo -->
  <gazebo reference="board_50x50x300_102">
    <static>true</static>
  </gazebo>
  <!-- fixed joint -->
  <joint name="board_50x50x300_103_joint" type="fixed">
    <origin rpy="0.0 -0.0 0.0" xyz="-6.297999999090573 4.786499999999998 0.4500000000000001"/>
    <parent link="world"/>
    <child link="board_50x50x300_103"/>
  </joint>
  <!-- link -->
  <link name="board_50x50x300_103">
    <!-- inertial -->
    <inertial>
      <origin rpy="0 0 0" xyz="0 0 0"/>
      <mass value="1"/>
      <inertia ixx="1.0" ixy="0.0" ixz="0.0" iyy="1.0" iyz="0.0" izz="1.0"/>
    </inertial>
    <!-- visual -->
    <visual>
      <origin rpy="0 0 0" xyz="0 0 0"/>
      <geometry>
        <mesh filename="package://ICRA2024_Quadruped_Competition/meshes/visual/board_50x50x300.obj"/>
      </geometry>
      <material name="">
        <color rgba="0.92 0.93 0.90 1"/>
      </material>
    </visual>
    <!-- collision -->
    <collision>
      <origin rpy="0 0 0" xyz="0 0 0"/>
      <geometry>
        <mesh filename="package://ICRA2024_Quadruped_Competition/meshes/visual/board_50x50x300.obj"/>
      </geometry>
      <material name="">
        <color rgba="1 0 0 1"/>
      </material>
    </collision>
  </link>
  <!-- gazebo -->
  <gazebo reference="board_50x50x300_103">
    <static>true</static>
  </gazebo>
  <!-- fixed joint -->
  <joint name="board_50x50x300_104_joint" type="fixed">
    <origin rpy="0.0 -0.0 0.0" xyz="-6.297999999090573 3.6544999999999983 0.4500000000000001"/>
    <parent link="world"/>
    <child link="board_50x50x300_104"/>
  </joint>
  <!-- link -->
  <link name="board_50x50x300_104">
    <!-- inertial -->
    <inertial>
      <origin rpy="0 0 0" xyz="0 0 0"/>
      <mass value="1"/>
      <inertia ixx="1.0" ixy="0.0" ixz="0.0" iyy="1.0" iyz="0.0" izz="1.0"/>
    </inertial>
    <!-- visual -->
    <visual>
      <origin rpy="0 0 0" xyz="0 0 0"/>
      <geometry>
        <mesh filename="package://ICRA2024_Quadruped_Competition/meshes/visual/board_50x50x300.obj"/>
      </geometry>
      <material name="">
        <color rgba="0.92 0.93 0.90 1"/>
      </material>
    </visual>
    <!-- collision -->
    <collision>
      <origin rpy="0 0 0" xyz="0 0 0"/>
      <geometry>
        <mesh filename="package://ICRA2024_Quadruped_Competition/meshes/visual/board_50x50x300.obj"/>
      </geometry>
      <material name="">
        <color rgba="1 0 0 1"/>
      </material>
    </collision>
  </link>
  <!-- gazebo -->
  <gazebo reference="board_50x50x300_104">
    <static>true</static>
  </gazebo>
  <!-- fixed joint -->
  <joint name="board_50x50x300_106_joint" type="fixed">
    <origin rpy="0.0 -0.0 0.0" xyz="-3.9659999990919 3.568500000000022 0.4499999999999999"/>
    <parent link="world"/>
    <child link="board_50x50x300_106"/>
  </joint>
  <!-- link -->
  <link name="board_50x50x300_106">
    <!-- inertial -->
    <inertial>
      <origin rpy="0 0 0" xyz="0 0 0"/>
      <mass value="1"/>
      <inertia ixx="1.0" ixy="0.0" ixz="0.0" iyy="1.0" iyz="0.0" izz="1.0"/>
    </inertial>
    <!-- visual -->
    <visual>
      <origin rpy="0 0 0" xyz="0 0 0"/>
      <geometry>
        <mesh filename="package://ICRA2024_Quadruped_Competition/meshes/visual/board_50x50x300.obj"/>
      </geometry>
      <material name="">
        <color rgba="0.92 0.93 0.90 1"/>
      </material>
    </visual>
    <!-- collision -->
    <collision>
      <origin rpy="0 0 0" xyz="0 0 0"/>
      <geometry>
        <mesh filename="package://ICRA2024_Quadruped_Competition/meshes/visual/board_50x50x300.obj"/>
      </geometry>
      <material name="">
        <color rgba="1 0 0 1"/>
      </material>
    </collision>
  </link>
  <!-- gazebo -->
  <gazebo reference="board_50x50x300_106">
    <static>true</static>
  </gazebo>
  <!-- fixed joint -->
  <joint name="board_50x50x300_107_joint" type="fixed">
    <origin rpy="0.0 -0.0 0.0" xyz="-5.115999999091914 3.568500000000022 0.4499999999999999"/>
    <parent link="world"/>
    <child link="board_50x50x300_107"/>
  </joint>
  <!-- link -->
  <link name="board_50x50x300_107">
    <!-- inertial -->
    <inertial>
      <origin rpy="0 0 0" xyz="0 0 0"/>
      <mass value="1"/>
      <inertia ixx="1.0" ixy="0.0" ixz="0.0" iyy="1.0" iyz="0.0" izz="1.0"/>
    </inertial>
    <!-- visual -->
    <visual>
      <origin rpy="0 0 0" xyz="0 0 0"/>
      <geometry>
        <mesh filename="package://ICRA2024_Quadruped_Competition/meshes/visual/board_50x50x300.obj"/>
      </geometry>
      <material name="">
        <color rgba="0.92 0.93 0.90 1"/>
      </material>
    </visual>
    <!-- collision -->
    <collision>
      <origin rpy="0 0 0" xyz="0 0 0"/>
      <geometry>
        <mesh filename="package://ICRA2024_Quadruped_Competition/meshes/visual/board_50x50x300.obj"/>
      </geometry>
      <material name="">
        <color rgba="1 0 0 1"/>
      </material>
    </collision>
  </link>
  <!-- gazebo -->
  <gazebo reference="board_50x50x300_107">
    <static>true</static>
  </gazebo>
  <!-- fixed joint -->
  <joint name="board_50x50x300_115_joint" type="fixed">
    <origin rpy="4.636953807247085e-15 -0.2939134460358645 -3.132572119938244e-14" xyz="-1.7802110070459631 4.786499999999929 1.1187405130648114"/>
    <parent link="world"/>
    <child link="board_50x50x300_115"/>
  </joint>
  <!-- link -->
  <link name="board_50x50x300_115">
    <!-- inertial -->
    <inertial>
      <origin rpy="0 0 0" xyz="0 0 0"/>
      <mass value="1"/>
      <inertia ixx="1.0" ixy="0.0" ixz="0.0" iyy="1.0" iyz="0.0" izz="1.0"/>
    </inertial>
    <!-- visual -->
    <visual>
      <origin rpy="0 0 0" xyz="0 0 0"/>
      <geometry>
        <mesh filename="package://ICRA2024_Quadruped_Competition/meshes/visual/board_50x50x300.obj"/>
      </geometry>
      <material name="">
        <color rgba="0.92 0.93 0.90 1"/>
      </material>
    </visual>
    <!-- collision -->
    <collision>
      <origin rpy="0 0 0" xyz="0 0 0"/>
      <geometry>
        <mesh filename="package://ICRA2024_Quadruped_Competition/meshes/visual/board_50x50x300.obj"/>
      </geometry>
      <material name="">
        <color rgba="1 0 0 1"/>
      </material>
    </collision>
  </link>
  <!-- gazebo -->
  <gazebo reference="board_50x50x300_115">
    <static>true</static>
  </gazebo>
  <!-- fixed joint -->
  <joint name="board_50x50x300_119_joint" type="fixed">
    <origin rpy="4.636953807247085e-15 -0.2939134460358645 -3.132572119938244e-14" xyz="-1.715127018270302 3.6544999999999312 1.1384401172497933"/>
    <parent link="world"/>
    <child link="board_50x50x300_119"/>
  </joint>
  <!-- link -->
  <link name="board_50x50x300_119">
    <!-- inertial -->
    <inertial>
      <origin rpy="0 0 0" xyz="0 0 0"/>
      <mass value="1"/>
      <inertia ixx="1.0" ixy="0.0" ixz="0.0" iyy="1.0" iyz="0.0" izz="1.0"/>
    </inertial>
    <!-- visual -->
    <visual>
      <origin rpy="0 0 0" xyz="0 0 0"/>
      <geometry>
        <mesh filename="package://ICRA2024_Quadruped_Competition/meshes/visual/board_50x50x300.obj"/>
      </geometry>
      <material name="">
        <color rgba="0.92 0.93 0.90 1"/>
      </material>
    </visual>
    <!-- collision -->
    <collision>
      <origin rpy="0 0 0" xyz="0 0 0"/>
      <geometry>
        <mesh filename="package://ICRA2024_Quadruped_Competition/meshes/visual/board_50x50x300.obj"/>
      </geometry>
      <material name="">
        <color rgba="1 0 0 1"/>
      </material>
    </collision>
  </link>
  <!-- gazebo -->
  <gazebo reference="board_50x50x300_119">
    <static>true</static>
  </gazebo>
  <!-- fixed joint -->
  <joint name="board_50x50x300_120_joint" type="fixed">
    <origin rpy="4.636953807247085e-15 -0.2939134460358645 -3.132572119938244e-14" xyz="-1.780211007045997 3.654499999999933 1.1187405130648065"/>
    <parent link="world"/>
    <child link="board_50x50x300_120"/>
  </joint>
  <!-- link -->
  <link name="board_50x50x300_120">
    <!-- inertial -->
    <inertial>
      <origin rpy="0 0 0" xyz="0 0 0"/>
      <mass value="1"/>
      <inertia ixx="1.0" ixy="0.0" ixz="0.0" iyy="1.0" iyz="0.0" izz="1.0"/>
    </inertial>
    <!-- visual -->
    <visual>
      <origin rpy="0 0 0" xyz="0 0 0"/>
      <geometry>
        <mesh filename="package://ICRA2024_Quadruped_Competition/meshes/visual/board_50x50x300.obj"/>
      </geometry>
      <material name="">
        <color rgba="0.92 0.93 0.90 1"/>
      </material>
    </visual>
    <!-- collision -->
    <collision>
      <origin rpy="0 0 0" xyz="0 0 0"/>
      <geometry>
        <mesh filename="package://ICRA2024_Quadruped_Competition/meshes/visual/board_50x50x300.obj"/>
      </geometry>
      <material name="">
        <color rgba="1 0 0 1"/>
      </material>
    </collision>
  </link>
  <!-- gazebo -->
  <gazebo reference="board_50x50x300_120">
    <static>true</static>
  </gazebo>
  <!-- fixed joint -->
  <joint name="board_50x50x300_125_joint" type="fixed">
    <origin rpy="4.636953807247085e-15 0.2939134460358645 3.132572119938244e-14" xyz="-3.6657889911364543 3.5684999999999167 1.1187405130651946"/>
    <parent link="world"/>
    <child link="board_50x50x300_125"/>
  </joint>
  <!-- link -->
  <link name="board_50x50x300_125">
    <!-- inertial -->
    <inertial>
      <origin rpy="0 0 0" xyz="0 0 0"/>
      <mass value="1"/>
      <inertia ixx="1.0" ixy="0.0" ixz="0.0" iyy="1.0" iyz="0.0" izz="1.0"/>
    </inertial>
    <!-- visual -->
    <visual>
      <origin rpy="0 0 0" xyz="0 0 0"/>
      <geometry>
        <mesh filename="package://ICRA2024_Quadruped_Competition/meshes/visual/board_50x50x300.obj"/>
      </geometry>
      <material name="">
        <color rgba="0.92 0.93 0.90 1"/>
      </material>
    </visual>
    <!-- collision -->
    <collision>
      <origin rpy="0 0 0" xyz="0 0 0"/>
      <geometry>
        <mesh filename="package://ICRA2024_Quadruped_Competition/meshes/visual/board_50x50x300.obj"/>
      </geometry>
      <material name="">
        <color rgba="1 0 0 1"/>
      </material>
    </collision>
  </link>
  <!-- gazebo -->
  <gazebo reference="board_50x50x300_125">
    <static>true</static>
  </gazebo>
  <!-- fixed joint -->
  <joint name="board_50x50x300_127_joint" type="fixed">
    <origin rpy="4.636953807247085e-15 0.2939134460358645 3.132572119938244e-14" xyz="-3.665788991135152 2.4364999999999357 1.118740513064806"/>
    <parent link="world"/>
    <child link="board_50x50x300_127"/>
  </joint>
  <!-- link -->
  <link name="board_50x50x300_127">
    <!-- inertial -->
    <inertial>
      <origin rpy="0 0 0" xyz="0 0 0"/>
      <mass value="1"/>
      <inertia ixx="1.0" ixy="0.0" ixz="0.0" iyy="1.0" iyz="0.0" izz="1.0"/>
    </inertial>
    <!-- visual -->
    <visual>
      <origin rpy="0 0 0" xyz="0 0 0"/>
      <geometry>
        <mesh filename="package://ICRA2024_Quadruped_Competition/meshes/visual/board_50x50x300.obj"/>
      </geometry>
      <material name="">
        <color rgba="0.92 0.93 0.90 1"/>
      </material>
    </visual>
    <!-- collision -->
    <collision>
      <origin rpy="0 0 0" xyz="0 0 0"/>
      <geometry>
        <mesh filename="package://ICRA2024_Quadruped_Competition/meshes/visual/board_50x50x300.obj"/>
      </geometry>
      <material name="">
        <color rgba="1 0 0 1"/>
      </material>
    </collision>
  </link>
  <!-- gazebo -->
  <gazebo reference="board_50x50x300_127">
    <static>true</static>
  </gazebo>
  <!-- fixed joint -->
  <joint name="board_50x50x300_140_joint" type="fixed">
    <origin rpy="0.0 -0.0 0.0" xyz="6.720000000909427 -3.5935000000000037 0.4500000000000001"/>
    <parent link="world"/>
    <child link="board_50x50x300_140"/>
  </joint>
  <!-- link -->
  <link name="board_50x50x300_140">
    <!-- inertial -->
    <inertial>
      <origin rpy="0 0 0" xyz="0 0 0"/>
      <mass value="1"/>
      <inertia ixx="1.0" ixy="0.0" ixz="0.0" iyy="1.0" iyz="0.0" izz="1.0"/>
    </inertial>
    <!-- visual -->
    <visual>
      <origin rpy="0 0 0" xyz="0 0 0"/>
      <geometry>
        <mesh filename="package://ICRA2024_Quadruped_Competition/meshes/visual/board_50x50x300.obj"/>
      </geometry>
      <material name="">
        <color rgba="0.92 0.93 0.90 1"/>
      </material>
    </visual>
    <!-- collision -->
    <collision>
      <origin rpy="0 0 0" xyz="0 0 0"/>
      <geometry>
        <mesh filename="package://ICRA2024_Quadruped_Competition/meshes/visual/board_50x50x300.obj"/>
      </geometry>
      <material name="">
        <color rgba="1 0 0 1"/>
      </material>
    </collision>
  </link>
  <!-- gazebo -->
  <gazebo reference="board_50x50x300_140">
    <static>true</static>
  </gazebo>
  <!-- fixed joint -->
  <joint name="board_50x50x300_141_joint" type="fixed">
    <origin rpy="0.0 -0.0 0.0" xyz="6.720000000909427 -2.436500000000003 0.4500000000000001"/>
    <parent link="world"/>
    <child link="board_50x50x300_141"/>
  </joint>
  <!-- link -->
  <link name="board_50x50x300_141">
    <!-- inertial -->
    <inertial>
      <origin rpy="0 0 0" xyz="0 0 0"/>
      <mass value="1"/>
      <inertia ixx="1.0" ixy="0.0" ixz="0.0" iyy="1.0" iyz="0.0" izz="1.0"/>
    </inertial>
    <!-- visual -->
    <visual>
      <origin rpy="0 0 0" xyz="0 0 0"/>
      <geometry>
        <mesh filename="package://ICRA2024_Quadruped_Competition/meshes/visual/board_50x50x300.obj"/>
      </geometry>
      <material name="">
        <color rgba="0.92 0.93 0.90 1"/>
      </material>
    </visual>
    <!-- collision -->
    <collision>
      <origin rpy="0 0 0" xyz="0 0 0"/>
      <geometry>
        <mesh filename="package://ICRA2024_Quadruped_Competition/meshes/visual/board_50x50x300.obj"/>
      </geometry>
      <material name="">
        <color rgba="1 0 0 1"/>
      </material>
    </collision>
  </link>
  <!-- gazebo -->
  <gazebo reference="board_50x50x300_141">
    <static>true</static>
  </gazebo>
  <!-- fixed joint -->
  <joint name="board_50x50x300_142_joint" type="fixed">
    <origin rpy="0.0 -0.0 0.0" xyz="-0.42999999909057296 -3.6365000000000074 0.4500000000000001"/>
    <parent link="world"/>
    <child link="board_50x50x300_142"/>
  </joint>
  <!-- link -->
  <link name="board_50x50x300_142">
    <!-- inertial -->
    <inertial>
      <origin rpy="0 0 0" xyz="0 0 0"/>
      <mass value="1"/>
      <inertia ixx="1.0" ixy="0.0" ixz="0.0" iyy="1.0" iyz="0.0" izz="1.0"/>
    </inertial>
    <!-- visual -->
    <visual>
      <origin rpy="0 0 0" xyz="0 0 0"/>
      <geometry>
        <mesh filename="package://ICRA2024_Quadruped_Competition/meshes/visual/board_50x50x300.obj"/>
      </geometry>
      <material name="">
        <color rgba="0.92 0.93 0.90 1"/>
      </material>
    </visual>
    <!-- collision -->
    <collision>
      <origin rpy="0 0 0" xyz="0 0 0"/>
      <geometry>
        <mesh filename="package://ICRA2024_Quadruped_Competition/meshes/visual/board_50x50x300.obj"/>
      </geometry>
      <material name="">
        <color rgba="1 0 0 1"/>
      </material>
    </collision>
  </link>
  <!-- gazebo -->
  <gazebo reference="board_50x50x300_142">
    <static>true</static>
  </gazebo>
  <!-- fixed joint -->
  <joint name="board_50x50x300_143_joint" type="fixed">
    <origin rpy="0.0 -0.0 0.0" xyz="-0.42999999909057296 -4.790500000000007 0.4500000000000001"/>
    <parent link="world"/>
    <child link="board_50x50x300_143"/>
  </joint>
  <!-- link -->
  <link name="board_50x50x300_143">
    <!-- inertial -->
    <inertial>
      <origin rpy="0 0 0" xyz="0 0 0"/>
      <mass value="1"/>
      <inertia ixx="1.0" ixy="0.0" ixz="0.0" iyy="1.0" iyz="0.0" izz="1.0"/>
    </inertial>
    <!-- visual -->
    <visual>
      <origin rpy="0 0 0" xyz="0 0 0"/>
      <geometry>
        <mesh filename="package://ICRA2024_Quadruped_Competition/meshes/visual/board_50x50x300.obj"/>
      </geometry>
      <material name="">
        <color rgba="0.92 0.93 0.90 1"/>
      </material>
    </visual>
    <!-- collision -->
    <collision>
      <origin rpy="0 0 0" xyz="0 0 0"/>
      <geometry>
        <mesh filename="package://ICRA2024_Quadruped_Competition/meshes/visual/board_50x50x300.obj"/>
      </geometry>
      <material name="">
        <color rgba="1 0 0 1"/>
      </material>
    </collision>
  </link>
  <!-- gazebo -->
  <gazebo reference="board_50x50x300_143">
    <static>true</static>
  </gazebo>
  <!-- fixed joint -->
  <joint name="board_50x50x300_149_joint" type="fixed">
    <origin rpy="4.636953807247084e-15 0.2939134460358644 3.132572119938244e-14" xyz="2.202211008864814 -2.4365000000000716 1.1187405130648111"/>
    <parent link="world"/>
    <child link="board_50x50x300_149"/>
  </joint>
  <!-- link -->
  <link name="board_50x50x300_149">
    <!-- inertial -->
    <inertial>
      <origin rpy="0 0 0" xyz="0 0 0"/>
      <mass value="1"/>
      <inertia ixx="1.0" ixy="0.0" ixz="0.0" iyy="1.0" iyz="0.0" izz="1.0"/>
    </inertial>
    <!-- visual -->
    <visual>
      <origin rpy="0 0 0" xyz="0 0 0"/>
      <geometry>
        <mesh filename="package://ICRA2024_Quadruped_Competition/meshes/visual/board_50x50x300.obj"/>
      </geometry>
      <material name="">
        <color rgba="0.92 0.93 0.90 1"/>
      </material>
    </visual>
    <!-- collision -->
    <collision>
      <origin rpy="0 0 0" xyz="0 0 0"/>
      <geometry>
        <mesh filename="package://ICRA2024_Quadruped_Competition/meshes/visual/board_50x50x300.obj"/>
      </geometry>
      <material name="">
        <color rgba="1 0 0 1"/>
      </material>
    </collision>
  </link>
  <!-- gazebo -->
  <gazebo reference="board_50x50x300_149">
    <static>true</static>
  </gazebo>
  <!-- fixed joint -->
  <joint name="board_50x50x300_152_joint" type="fixed">
    <origin rpy="4.636953807247084e-15 0.2939134460358644 3.132572119938244e-14" xyz="2.2022110088648477 -3.5755000000000723 1.118740513064806"/>
    <parent link="world"/>
    <child link="board_50x50x300_152"/>
  </joint>
  <!-- link -->
  <link name="board_50x50x300_152">
    <!-- inertial -->
    <inertial>
      <origin rpy="0 0 0" xyz="0 0 0"/>
      <mass value="1"/>
      <inertia ixx="1.0" ixy="0.0" ixz="0.0" iyy="1.0" iyz="0.0" izz="1.0"/>
    </inertial>
    <!-- visual -->
    <visual>
      <origin rpy="0 0 0" xyz="0 0 0"/>
      <geometry>
        <mesh filename="package://ICRA2024_Quadruped_Competition/meshes/visual/board_50x50x300.obj"/>
      </geometry>
      <material name="">
        <color rgba="0.92 0.93 0.90 1"/>
      </material>
    </visual>
    <!-- collision -->
    <collision>
      <origin rpy="0 0 0" xyz="0 0 0"/>
      <geometry>
        <mesh filename="package://ICRA2024_Quadruped_Competition/meshes/visual/board_50x50x300.obj"/>
      </geometry>
      <material name="">
        <color rgba="1 0 0 1"/>
      </material>
    </collision>
  </link>
  <!-- gazebo -->
  <gazebo reference="board_50x50x300_152">
    <static>true</static>
  </gazebo>
  <!-- fixed joint -->
  <joint name="board_50x50x300_157_joint" type="fixed">
    <origin rpy="4.571479511628805e-15 -0.2939134460358645 -3.109156540223107e-14" xyz="4.087788992954003 -4.786500000000071 1.1187405130648065"/>
    <parent link="world"/>
    <child link="board_50x50x300_157"/>
  </joint>
  <!-- link -->
  <link name="board_50x50x300_157">
    <!-- inertial -->
    <inertial>
      <origin rpy="0 0 0" xyz="0 0 0"/>
      <mass value="1"/>
      <inertia ixx="1.0" ixy="0.0" ixz="0.0" iyy="1.0" iyz="0.0" izz="1.0"/>
    </inertial>
    <!-- visual -->
    <visual>
      <origin rpy="0 0 0" xyz="0 0 0"/>
      <geometry>
        <mesh filename="package://ICRA2024_Quadruped_Competition/meshes/visual/board_50x50x300.obj"/>
      </geometry>
      <material name="">
        <color rgba="0.92 0.93 0.90 1"/>
      </material>
    </visual>
    <!-- collision -->
    <collision>
      <origin rpy="0 0 0" xyz="0 0 0"/>
      <geometry>
        <mesh filename="package://ICRA2024_Quadruped_Competition/meshes/visual/board_50x50x300.obj"/>
      </geometry>
      <material name="">
        <color rgba="1 0 0 1"/>
      </material>
    </collision>
  </link>
  <!-- gazebo -->
  <gazebo reference="board_50x50x300_157">
    <static>true</static>
  </gazebo>
  <!-- fixed joint -->
  <joint name="board_50x50x300_159_joint" type="fixed">
    <origin rpy="4.571479511628805e-15 -0.2939134460358645 -3.109156540223107e-14" xyz="4.087788992954037 -3.6365000000000762 1.1187405130648116"/>
    <parent link="world"/>
    <child link="board_50x50x300_159"/>
  </joint>
  <!-- link -->
  <link name="board_50x50x300_159">
    <!-- inertial -->
    <inertial>
      <origin rpy="0 0 0" xyz="0 0 0"/>
      <mass value="1"/>
      <inertia ixx="1.0" ixy="0.0" ixz="0.0" iyy="1.0" iyz="0.0" izz="1.0"/>
    </inertial>
    <!-- visual -->
    <visual>
      <origin rpy="0 0 0" xyz="0 0 0"/>
      <geometry>
        <mesh filename="package://ICRA2024_Quadruped_Competition/meshes/visual/board_50x50x300.obj"/>
      </geometry>
      <material name="">
        <color rgba="0.92 0.93 0.90 1"/>
      </material>
    </visual>
    <!-- collision -->
    <collision>
      <origin rpy="0 0 0" xyz="0 0 0"/>
      <geometry>
        <mesh filename="package://ICRA2024_Quadruped_Competition/meshes/visual/board_50x50x300.obj"/>
      </geometry>
      <material name="">
        <color rgba="1 0 0 1"/>
      </material>
    </collision>
  </link>
  <!-- gazebo -->
  <gazebo reference="board_50x50x300_159">
    <static>true</static>
  </gazebo>
  <!-- fixed joint -->
  <joint name="board_50x50x300_168_joint" type="fixed">
    <origin rpy="0.0 -0.0 0.0" xyz="0.8520000009094266 -3.5685000000000087 0.4500000000000001"/>
    <parent link="world"/>
    <child link="board_50x50x300_168"/>
  </joint>
  <!-- link -->
  <link name="board_50x50x300_168">
    <!-- inertial -->
    <inertial>
      <origin rpy="0 0 0" xyz="0 0 0"/>
      <mass value="1"/>
      <inertia ixx="1.0" ixy="0.0" ixz="0.0" iyy="1.0" iyz="0.0" izz="1.0"/>
    </inertial>
    <!-- visual -->
    <visual>
      <origin rpy="0 0 0" xyz="0 0 0"/>
      <geometry>
        <mesh filename="package://ICRA2024_Quadruped_Competition/meshes/visual/board_50x50x300.obj"/>
      </geometry>
      <material name="">
        <color rgba="0.92 0.93 0.90 1"/>
      </material>
    </visual>
    <!-- collision -->
    <collision>
      <origin rpy="0 0 0" xyz="0 0 0"/>
      <geometry>
        <mesh filename="package://ICRA2024_Quadruped_Competition/meshes/visual/board_50x50x300.obj"/>
      </geometry>
      <material name="">
        <color rgba="1 0 0 1"/>
      </material>
    </collision>
  </link>
  <!-- gazebo -->
  <gazebo reference="board_50x50x300_168">
    <static>true</static>
  </gazebo>
  <!-- fixed joint -->
  <joint name="board_50x50x300_169_joint" type="fixed">
    <origin rpy="0.0 -0.0 0.0" xyz="0.8520000009094266 -2.436500000000005 0.4500000000000001"/>
    <parent link="world"/>
    <child link="board_50x50x300_169"/>
  </joint>
  <!-- link -->
  <link name="board_50x50x300_169">
    <!-- inertial -->
    <inertial>
      <origin rpy="0 0 0" xyz="0 0 0"/>
      <mass value="1"/>
      <inertia ixx="1.0" ixy="0.0" ixz="0.0" iyy="1.0" iyz="0.0" izz="1.0"/>
    </inertial>
    <!-- visual -->
    <visual>
      <origin rpy="0 0 0" xyz="0 0 0"/>
      <geometry>
        <mesh filename="package://ICRA2024_Quadruped_Competition/meshes/visual/board_50x50x300.obj"/>
      </geometry>
      <material name="">
        <color rgba="0.92 0.93 0.90 1"/>
      </material>
    </visual>
    <!-- collision -->
    <collision>
      <origin rpy="0 0 0" xyz="0 0 0"/>
      <geometry>
        <mesh filename="package://ICRA2024_Quadruped_Competition/meshes/visual/board_50x50x300.obj"/>
      </geometry>
      <material name="">
        <color rgba="1 0 0 1"/>
      </material>
    </collision>
  </link>
  <!-- gazebo -->
  <gazebo reference="board_50x50x300_169">
    <static>true</static>
  </gazebo>
  <!-- fixed joint -->
  <joint name="board_50x50x300_170_joint" type="fixed">
    <origin rpy="0.0 -0.0 0.0" xyz="-6.297999999090573 -3.654500000000009 0.4500000000000001"/>
    <parent link="world"/>
    <child link="board_50x50x300_170"/>
  </joint>
  <!-- link -->
  <link name="board_50x50x300_170">
    <!-- inertial -->
    <inertial>
      <origin rpy="0 0 0" xyz="0 0 0"/>
      <mass value="1"/>
      <inertia ixx="1.0" ixy="0.0" ixz="0.0" iyy="1.0" iyz="0.0" izz="1.0"/>
    </inertial>
    <!-- visual -->
    <visual>
      <origin rpy="0 0 0" xyz="0 0 0"/>
      <geometry>
        <mesh filename="package://ICRA2024_Quadruped_Competition/meshes/visual/board_50x50x300.obj"/>
      </geometry>
      <material name="">
        <color rgba="0.92 0.93 0.90 1"/>
      </material>
    </visual>
    <!-- collision -->
    <collision>
      <origin rpy="0 0 0" xyz="0 0 0"/>
      <geometry>
        <mesh filename="package://ICRA2024_Quadruped_Competition/meshes/visual/board_50x50x300.obj"/>
      </geometry>
      <material name="">
        <color rgba="1 0 0 1"/>
      </material>
    </collision>
  </link>
  <!-- gazebo -->
  <gazebo reference="board_50x50x300_170">
    <static>true</static>
  </gazebo>
  <!-- fixed joint -->
  <joint name="board_50x50x300_171_joint" type="fixed">
    <origin rpy="0.0 -0.0 0.0" xyz="-6.297999999090573 -4.786500000000009 0.4500000000000001"/>
    <parent link="world"/>
    <child link="board_50x50x300_171"/>
  </joint>
  <!-- link -->
  <link name="board_50x50x300_171">
    <!-- inertial -->
    <inertial>
      <origin rpy="0 0 0" xyz="0 0 0"/>
      <mass value="1"/>
      <inertia ixx="1.0" ixy="0.0" ixz="0.0" iyy="1.0" iyz="0.0" izz="1.0"/>
    </inertial>
    <!-- visual -->
    <visual>
      <origin rpy="0 0 0" xyz="0 0 0"/>
      <geometry>
        <mesh filename="package://ICRA2024_Quadruped_Competition/meshes/visual/board_50x50x300.obj"/>
      </geometry>
      <material name="">
        <color rgba="0.92 0.93 0.90 1"/>
      </material>
    </visual>
    <!-- collision -->
    <collision>
      <origin rpy="0 0 0" xyz="0 0 0"/>
      <geometry>
        <mesh filename="package://ICRA2024_Quadruped_Competition/meshes/visual/board_50x50x300.obj"/>
      </geometry>
      <material name="">
        <color rgba="1 0 0 1"/>
      </material>
    </collision>
  </link>
  <!-- gazebo -->
  <gazebo reference="board_50x50x300_171">
    <static>true</static>
  </gazebo>
  <!-- fixed joint -->
  <joint name="board_50x50x300_173_joint" type="fixed">
    <origin rpy="0.0 -0.0 0.0" xyz="-5.115999999091914 -3.575499999999986 0.4499999999999999"/>
    <parent link="world"/>
    <child link="board_50x50x300_173"/>
  </joint>
  <!-- link -->
  <link name="board_50x50x300_173">
    <!-- inertial -->
    <inertial>
      <origin rpy="0 0 0" xyz="0 0 0"/>
      <mass value="1"/>
      <inertia ixx="1.0" ixy="0.0" ixz="0.0" iyy="1.0" iyz="0.0" izz="1.0"/>
    </inertial>
    <!-- visual -->
    <visual>
      <origin rpy="0 0 0" xyz="0 0 0"/>
      <geometry>
        <mesh filename="package://ICRA2024_Quadruped_Competition/meshes/visual/board_50x50x300.obj"/>
      </geometry>
      <material name="">
        <color rgba="0.92 0.93 0.90 1"/>
      </material>
    </visual>
    <!-- collision -->
    <collision>
      <origin rpy="0 0 0" xyz="0 0 0"/>
      <geometry>
        <mesh filename="package://ICRA2024_Quadruped_Competition/meshes/visual/board_50x50x300.obj"/>
      </geometry>
      <material name="">
        <color rgba="1 0 0 1"/>
      </material>
    </collision>
  </link>
  <!-- gazebo -->
  <gazebo reference="board_50x50x300_173">
    <static>true</static>
  </gazebo>
  <!-- fixed joint -->
  <joint name="board_50x50x300_185_joint" type="fixed">
    <origin rpy="4.636953807247085e-15 -0.2939134460358645 -3.132572119938244e-14" xyz="-1.7802110070459976 -4.786500000000074 1.118740513064806"/>
    <parent link="world"/>
    <child link="board_50x50x300_185"/>
  </joint>
  <!-- link -->
  <link name="board_50x50x300_185">
    <!-- inertial -->
    <inertial>
      <origin rpy="0 0 0" xyz="0 0 0"/>
      <mass value="1"/>
      <inertia ixx="1.0" ixy="0.0" ixz="0.0" iyy="1.0" iyz="0.0" izz="1.0"/>
    </inertial>
    <!-- visual -->
    <visual>
      <origin rpy="0 0 0" xyz="0 0 0"/>
      <geometry>
        <mesh filename="package://ICRA2024_Quadruped_Competition/meshes/visual/board_50x50x300.obj"/>
      </geometry>
      <material name="">
        <color rgba="0.92 0.93 0.90 1"/>
      </material>
    </visual>
    <!-- collision -->
    <collision>
      <origin rpy="0 0 0" xyz="0 0 0"/>
      <geometry>
        <mesh filename="package://ICRA2024_Quadruped_Competition/meshes/visual/board_50x50x300.obj"/>
      </geometry>
      <material name="">
        <color rgba="1 0 0 1"/>
      </material>
    </collision>
  </link>
  <!-- gazebo -->
  <gazebo reference="board_50x50x300_185">
    <static>true</static>
  </gazebo>
  <!-- fixed joint -->
  <joint name="board_50x50x300_187_joint" type="fixed">
    <origin rpy="4.636953807247085e-15 -0.2939134460358645 -3.132572119938244e-14" xyz="-1.7802110070459631 -3.636500000000078 1.1187405130648114"/>
    <parent link="world"/>
    <child link="board_50x50x300_187"/>
  </joint>
  <!-- link -->
  <link name="board_50x50x300_187">
    <!-- inertial -->
    <inertial>
      <origin rpy="0 0 0" xyz="0 0 0"/>
      <mass value="1"/>
      <inertia ixx="1.0" ixy="0.0" ixz="0.0" iyy="1.0" iyz="0.0" izz="1.0"/>
    </inertial>
    <!-- visual -->
    <visual>
      <origin rpy="0 0 0" xyz="0 0 0"/>
      <geometry>
        <mesh filename="package://ICRA2024_Quadruped_Competition/meshes/visual/board_50x50x300.obj"/>
      </geometry>
      <material name="">
        <color rgba="0.92 0.93 0.90 1"/>
      </material>
    </visual>
    <!-- collision -->
    <collision>
      <origin rpy="0 0 0" xyz="0 0 0"/>
      <geometry>
        <mesh filename="package://ICRA2024_Quadruped_Competition/meshes/visual/board_50x50x300.obj"/>
      </geometry>
      <material name="">
        <color rgba="1 0 0 1"/>
      </material>
    </collision>
  </link>
  <!-- gazebo -->
  <gazebo reference="board_50x50x300_187">
    <static>true</static>
  </gazebo>
  <!-- fixed joint -->
  <joint name="board_50x50x300_188_joint" type="fixed">
    <origin rpy="4.636953807247085e-15 -0.2939134460358645 -3.132572119938244e-14" xyz="-1.7151270182702676 -3.6295000000000757 1.1384401172497984"/>
    <parent link="world"/>
    <child link="board_50x50x300_188"/>
  </joint>
  <!-- link -->
  <link name="board_50x50x300_188">
    <!-- inertial -->
    <inertial>
      <origin rpy="0 0 0" xyz="0 0 0"/>
      <mass value="1"/>
      <inertia ixx="1.0" ixy="0.0" ixz="0.0" iyy="1.0" iyz="0.0" izz="1.0"/>
    </inertial>
    <!-- visual -->
    <visual>
      <origin rpy="0 0 0" xyz="0 0 0"/>
      <geometry>
        <mesh filename="package://ICRA2024_Quadruped_Competition/meshes/visual/board_50x50x300.obj"/>
      </geometry>
      <material name="">
        <color rgba="0.92 0.93 0.90 1"/>
      </material>
    </visual>
    <!-- collision -->
    <collision>
      <origin rpy="0 0 0" xyz="0 0 0"/>
      <geometry>
        <mesh filename="package://ICRA2024_Quadruped_Competition/meshes/visual/board_50x50x300.obj"/>
      </geometry>
      <material name="">
        <color rgba="1 0 0 1"/>
      </material>
    </collision>
  </link>
  <!-- gazebo -->
  <gazebo reference="board_50x50x300_188">
    <static>true</static>
  </gazebo>
  <!-- fixed joint -->
  <joint name="board_50x50x300_193_joint" type="fixed">
    <origin rpy="4.636953807247085e-15 0.2939134460358645 3.132572119938244e-14" xyz="-3.6657889911351864 -2.4365000000000747 1.1187405130648114"/>
    <parent link="world"/>
    <child link="board_50x50x300_193"/>
  </joint>
  <!-- link -->
  <link name="board_50x50x300_193">
    <!-- inertial -->
    <inertial>
      <origin rpy="0 0 0" xyz="0 0 0"/>
      <mass value="1"/>
      <inertia ixx="1.0" ixy="0.0" ixz="0.0" iyy="1.0" iyz="0.0" izz="1.0"/>
    </inertial>
    <!-- visual -->
    <visual>
      <origin rpy="0 0 0" xyz="0 0 0"/>
      <geometry>
        <mesh filename="package://ICRA2024_Quadruped_Competition/meshes/visual/board_50x50x300.obj"/>
      </geometry>
      <material name="">
        <color rgba="0.92 0.93 0.90 1"/>
      </material>
    </visual>
    <!-- collision -->
    <collision>
      <origin rpy="0 0 0" xyz="0 0 0"/>
      <geometry>
        <mesh filename="package://ICRA2024_Quadruped_Competition/meshes/visual/board_50x50x300.obj"/>
      </geometry>
      <material name="">
        <color rgba="1 0 0 1"/>
      </material>
    </collision>
  </link>
  <!-- gazebo -->
  <gazebo reference="board_50x50x300_193">
    <static>true</static>
  </gazebo>
  <!-- fixed joint -->
  <joint name="board_50x50x300_196_joint" type="fixed">
    <origin rpy="4.636953807247085e-15 0.2939134460358645 3.132572119938244e-14" xyz="-3.730872979912117 -3.5755000000000576 1.1384401172501772"/>
    <parent link="world"/>
    <child link="board_50x50x300_196"/>
  </joint>
  <!-- link -->
  <link name="board_50x50x300_196">
    <!-- inertial -->
    <inertial>
      <origin rpy="0 0 0" xyz="0 0 0"/>
      <mass value="1"/>
      <inertia ixx="1.0" ixy="0.0" ixz="0.0" iyy="1.0" iyz="0.0" izz="1.0"/>
    </inertial>
    <!-- visual -->
    <visual>
      <origin rpy="0 0 0" xyz="0 0 0"/>
      <geometry>
        <mesh filename="package://ICRA2024_Quadruped_Competition/meshes/visual/board_50x50x300.obj"/>
      </geometry>
      <material name="">
        <color rgba="0.92 0.93 0.90 1"/>
      </material>
    </visual>
    <!-- collision -->
    <collision>
      <origin rpy="0 0 0" xyz="0 0 0"/>
      <geometry>
        <mesh filename="package://ICRA2024_Quadruped_Competition/meshes/visual/board_50x50x300.obj"/>
      </geometry>
      <material name="">
        <color rgba="1 0 0 1"/>
      </material>
    </collision>
  </link>
  <!-- gazebo -->
  <gazebo reference="board_50x50x300_196">
    <static>true</static>
  </gazebo>
  <!-- fixed joint -->
  <joint name="board_50x50x300_197_joint" type="fixed">
    <origin rpy="4.636953807247085e-15 0.2939134460358645 3.132572119938244e-14" xyz="-3.66578899113642 -3.5755000000000923 1.1187405130651897"/>
    <parent link="world"/>
    <child link="board_50x50x300_197"/>
  </joint>
  <!-- link -->
  <link name="board_50x50x300_197">
    <!-- inertial -->
    <inertial>
      <origin rpy="0 0 0" xyz="0 0 0"/>
      <mass value="1"/>
      <inertia ixx="1.0" ixy="0.0" ixz="0.0" iyy="1.0" iyz="0.0" izz="1.0"/>
    </inertial>
    <!-- visual -->
    <visual>
      <origin rpy="0 0 0" xyz="0 0 0"/>
      <geometry>
        <mesh filename="package://ICRA2024_Quadruped_Competition/meshes/visual/board_50x50x300.obj"/>
      </geometry>
      <material name="">
        <color rgba="0.92 0.93 0.90 1"/>
      </material>
    </visual>
    <!-- collision -->
    <collision>
      <origin rpy="0 0 0" xyz="0 0 0"/>
      <geometry>
        <mesh filename="package://ICRA2024_Quadruped_Competition/meshes/visual/board_50x50x300.obj"/>
      </geometry>
      <material name="">
        <color rgba="1 0 0 1"/>
      </material>
    </collision>
  </link>
  <!-- gazebo -->
  <gazebo reference="board_50x50x300_197">
    <static>true</static>
  </gazebo>
  <!-- fixed joint -->
  <joint name="crate_board_131_joint" type="fixed">
    <origin rpy="0.0 -0.0 1.570796326795" xyz="5.545000000909425 -3.011500000000003 0.11999999999999988"/>
    <parent link="world"/>
    <child link="crate_board_131"/>
  </joint>
  <!-- link -->
  <link name="crate_board_131">
    <!-- inertial -->
    <inertial>
      <origin rpy="0 0 0" xyz="0 0 0"/>
      <mass value="1"/>
      <inertia ixx="1.0" ixy="0.0" ixz="0.0" iyy="1.0" iyz="0.0" izz="1.0"/>
    </inertial>
    <!-- visual -->
    <visual>
      <origin rpy="0 0 0" xyz="0 0 0"/>
      <geometry>
        <mesh filename="package://ICRA2024_Quadruped_Competition/meshes/visual/crate_board.obj"/>
      </geometry>
      <material name="">
        <color rgba="0.92 0.93 0.90 1"/>
      </material>
    </visual>
    <!-- collision -->
    <collision>
      <origin rpy="0 0 0" xyz="0 0 0"/>
      <geometry>
        <mesh filename="package://ICRA2024_Quadruped_Competition/meshes/visual/crate_board.obj"/>
      </geometry>
      <material name="">
        <color rgba="1 0 0 1"/>
      </material>
    </collision>
  </link>
  <!-- gazebo -->
  <gazebo reference="crate_board_131">
    <static>true</static>
  </gazebo>
  <!-- fixed joint -->
  <joint name="crate_board_133_joint" type="fixed">
    <origin rpy="0.0 -0.0 1.570796326795" xyz="0.7450000009094251 -4.211500000000004 0.11999999999999988"/>
    <parent link="world"/>
    <child link="crate_board_133"/>
  </joint>
  <!-- link -->
  <link name="crate_board_133">
    <!-- inertial -->
    <inertial>
      <origin rpy="0 0 0" xyz="0 0 0"/>
      <mass value="1"/>
      <inertia ixx="1.0" ixy="0.0" ixz="0.0" iyy="1.0" iyz="0.0" izz="1.0"/>
    </inertial>
    <!-- visual -->
    <visual>
      <origin rpy="0 0 0" xyz="0 0 0"/>
      <geometry>
        <mesh filename="package://ICRA2024_Quadruped_Competition/meshes/visual/crate_board.obj"/>
      </geometry>
      <material name="">
        <color rgba="0.92 0.93 0.90 1"/>
      </material>
    </visual>
    <!-- collision -->
    <collision>
      <origin rpy="0 0 0" xyz="0 0 0"/>
      <geometry>
        <mesh filename="package://ICRA2024_Quadruped_Competition/meshes/visual/crate_board.obj"/>
      </geometry>
      <material name="">
        <color rgba="1 0 0 1"/>
      </material>
    </collision>
  </link>
  <!-- gazebo -->
  <gazebo reference="crate_board_133">
    <static>true</static>
  </gazebo>
  <!-- fixed joint -->
  <joint name="crate_board_153_joint" type="fixed">
    <origin rpy="0.2939134460358644 -3.444466933899548e-14 1.5707963267950258" xyz="3.2312230299000713 -3.011500000000038 0.4624941716921735"/>
    <parent link="world"/>
    <child link="crate_board_153"/>
  </joint>
  <!-- link -->
  <link name="crate_board_153">
    <!-- inertial -->
    <inertial>
      <origin rpy="0 0 0" xyz="0 0 0"/>
      <mass value="1"/>
      <inertia ixx="1.0" ixy="0.0" ixz="0.0" iyy="1.0" iyz="0.0" izz="1.0"/>
    </inertial>
    <!-- visual -->
    <visual>
      <origin rpy="0 0 0" xyz="0 0 0"/>
      <geometry>
        <mesh filename="package://ICRA2024_Quadruped_Competition/meshes/visual/crate_board.obj"/>
      </geometry>
      <material name="">
        <color rgba="0.92 0.93 0.90 1"/>
      </material>
    </visual>
    <!-- collision -->
    <collision>
      <origin rpy="0 0 0" xyz="0 0 0"/>
      <geometry>
        <mesh filename="package://ICRA2024_Quadruped_Competition/meshes/visual/crate_board.obj"/>
      </geometry>
      <material name="">
        <color rgba="1 0 0 1"/>
      </material>
    </collision>
  </link>
  <!-- gazebo -->
  <gazebo reference="crate_board_153">
    <static>true</static>
  </gazebo>
  <!-- fixed joint -->
  <joint name="crate_board_161_joint" type="fixed">
    <origin rpy="-0.2939134460358645 2.550737399076296e-14 1.5707963267949658" xyz="3.058776971918779 -4.21150000000004 0.46249417169217355"/>
    <parent link="world"/>
    <child link="crate_board_161"/>
  </joint>
  <!-- link -->
  <link name="crate_board_161">
    <!-- inertial -->
    <inertial>
      <origin rpy="0 0 0" xyz="0 0 0"/>
      <mass value="1"/>
      <inertia ixx="1.0" ixy="0.0" ixz="0.0" iyy="1.0" iyz="0.0" izz="1.0"/>
    </inertial>
    <!-- visual -->
    <visual>
      <origin rpy="0 0 0" xyz="0 0 0"/>
      <geometry>
        <mesh filename="package://ICRA2024_Quadruped_Competition/meshes/visual/crate_board.obj"/>
      </geometry>
      <material name="">
        <color rgba="0.92 0.93 0.90 1"/>
      </material>
    </visual>
    <!-- collision -->
    <collision>
      <origin rpy="0 0 0" xyz="0 0 0"/>
      <geometry>
        <mesh filename="package://ICRA2024_Quadruped_Competition/meshes/visual/crate_board.obj"/>
      </geometry>
      <material name="">
        <color rgba="1 0 0 1"/>
      </material>
    </collision>
  </link>
  <!-- gazebo -->
  <gazebo reference="crate_board_161">
    <static>true</static>
  </gazebo>
  <!-- fixed joint -->
  <joint name="k_rail_diagonal_178_joint" type="fixed">
    <origin rpy="3.141592653589793 -2.0682310711021447e-13 -1.5707963267947933" xyz="-0.3230000000000066 -3.011500000000008 0.061"/>
    <parent link="world"/>
    <child link="k_rail_diagonal_178"/>
  </joint>
  <!-- link -->
  <link name="k_rail_diagonal_178">
    <!-- inertial -->
    <inertial>
      <origin rpy="0 0 0" xyz="0 0 0"/>
      <mass value="1"/>
      <inertia ixx="1.0" ixy="0.0" ixz="0.0" iyy="1.0" iyz="0.0" izz="1.0"/>
    </inertial>
    <!-- visual -->
    <visual>
      <origin rpy="0 0 0" xyz="0 0 0"/>
      <geometry>
        <mesh filename="package://ICRA2024_Quadruped_Competition/meshes/visual/k_rail_diagonal.obj"/>
      </geometry>
      <material name="">
        <color rgba="0.92 0.93 0.90 1"/>
      </material>
    </visual>
    <!-- collision -->
    <collision>
      <origin rpy="0 0 0" xyz="0 0 0"/>
      <geometry>
        <mesh filename="package://ICRA2024_Quadruped_Competition/meshes/visual/k_rail_diagonal.obj"/>
      </geometry>
      <material name="">
        <color rgba="1 0 0 1"/>
      </material>
    </collision>
  </link>
  <!-- gazebo -->
  <gazebo reference="k_rail_diagonal_178">
    <static>true</static>
  </gazebo>
  <!-- fixed joint -->
  <joint name="k_rail_diagonal_179_joint" type="fixed">
    <origin rpy="0.0 -0.0 1.570796326795" xyz="-5.123000000000006 -4.211500000000008 0.061"/>
    <parent link="world"/>
    <child link="k_rail_diagonal_179"/>
  </joint>
  <!-- link -->
  <link name="k_rail_diagonal_179">
    <!-- inertial -->
    <inertial>
      <origin rpy="0 0 0" xyz="0 0 0"/>
      <mass value="1"/>
      <inertia ixx="1.0" ixy="0.0" ixz="0.0" iyy="1.0" iyz="0.0" izz="1.0"/>
    </inertial>
    <!-- visual -->
    <visual>
      <origin rpy="0 0 0" xyz="0 0 0"/>
      <geometry>
        <mesh filename="package://ICRA2024_Quadruped_Competition/meshes/visual/k_rail_diagonal.obj"/>
      </geometry>
      <material name="">
        <color rgba="0.92 0.93 0.90 1"/>
      </material>
    </visual>
    <!-- collision -->
    <collision>
      <origin rpy="0 0 0" xyz="0 0 0"/>
      <geometry>
        <mesh filename="package://ICRA2024_Quadruped_Competition/meshes/visual/k_rail_diagonal.obj"/>
      </geometry>
      <material name="">
        <color rgba="1 0 0 1"/>
      </material>
    </collision>
  </link>
  <!-- gazebo -->
  <gazebo reference="k_rail_diagonal_179">
    <static>true</static>
  </gazebo>
  <!-- fixed joint -->
  <joint name="k_rail_diagonal_182_joint" type="fixed">
    <origin rpy="-0.2939134460358645 2.550737399076296e-14 1.5707963267949658" xyz="-2.7921307253205625 -4.2115000000000435 0.40602423999097564"/>
    <parent link="world"/>
    <child link="k_rail_diagonal_182"/>
  </joint>
  <!-- link -->
  <link name="k_rail_diagonal_182">
    <!-- inertial -->
    <inertial>
      <origin rpy="0 0 0" xyz="0 0 0"/>
      <mass value="1"/>
      <inertia ixx="1.0" ixy="0.0" ixz="0.0" iyy="1.0" iyz="0.0" izz="1.0"/>
    </inertial>
    <!-- visual -->
    <visual>
      <origin rpy="0 0 0" xyz="0 0 0"/>
      <geometry>
        <mesh filename="package://ICRA2024_Quadruped_Competition/meshes/visual/k_rail_diagonal.obj"/>
      </geometry>
      <material name="">
        <color rgba="0.92 0.93 0.90 1"/>
      </material>
    </visual>
    <!-- collision -->
    <collision>
      <origin rpy="0 0 0" xyz="0 0 0"/>
      <geometry>
        <mesh filename="package://ICRA2024_Quadruped_Competition/meshes/visual/k_rail_diagonal.obj"/>
      </geometry>
      <material name="">
        <color rgba="1 0 0 1"/>
      </material>
    </collision>
  </link>
  <!-- gazebo -->
  <gazebo reference="k_rail_diagonal_182">
    <static>true</static>
  </gazebo>
  <!-- fixed joint -->
  <joint name="k_rail_diagonal_191_joint" type="fixed">
    <origin rpy="2.8476792075539286 -1.6353585152728556e-13 -1.5707963267947076" xyz="-2.6538692746014534 -3.011500000000044 0.40602424051790054"/>
    <parent link="world"/>
    <child link="k_rail_diagonal_191"/>
  </joint>
  <!-- link -->
  <link name="k_rail_diagonal_191">
    <!-- inertial -->
    <inertial>
      <origin rpy="0 0 0" xyz="0 0 0"/>
      <mass value="1"/>
      <inertia ixx="1.0" ixy="0.0" ixz="0.0" iyy="1.0" iyz="0.0" izz="1.0"/>
    </inertial>
    <!-- visual -->
    <visual>
      <origin rpy="0 0 0" xyz="0 0 0"/>
      <geometry>
        <mesh filename="package://ICRA2024_Quadruped_Competition/meshes/visual/k_rail_diagonal.obj"/>
      </geometry>
      <material name="">
        <color rgba="0.92 0.93 0.90 1"/>
      </material>
    </visual>
    <!-- collision -->
    <collision>
      <origin rpy="0 0 0" xyz="0 0 0"/>
      <geometry>
        <mesh filename="package://ICRA2024_Quadruped_Competition/meshes/visual/k_rail_diagonal.obj"/>
      </geometry>
      <material name="">
        <color rgba="1 0 0 1"/>
      </material>
    </collision>
  </link>
  <!-- gazebo -->
  <gazebo reference="k_rail_diagonal_191">
    <static>true</static>
  </gazebo>
  <!-- fixed joint -->
  <joint name="lane_floor_15_joint" type="fixed">
    <origin rpy="0.0 -0.0 0.0" xyz="5.545000000909425 3.0115000000000056 0.0555"/>
    <parent link="world"/>
    <child link="lane_floor_15"/>
  </joint>
  <!-- link -->
  <link name="lane_floor_15">
    <!-- inertial -->
    <inertial>
      <origin rpy="0 0 0" xyz="0 0 0"/>
      <mass value="1"/>
      <inertia ixx="1.0" ixy="0.0" ixz="0.0" iyy="1.0" iyz="0.0" izz="1.0"/>
    </inertial>
    <!-- visual -->
    <visual>
      <origin rpy="0 0 0" xyz="0 0 0"/>
      <geometry>
        <mesh filename="package://ICRA2024_Quadruped_Competition/meshes/visual/lane_floor.obj"/>
      </geometry>
      <material name="">
        <color rgba="0.92 0.93 0.90 1"/>
      </material>
    </visual>
    <!-- collision -->
    <collision>
      <origin rpy="0 0 0" xyz="0 0 0"/>
      <geometry>
        <mesh filename="package://ICRA2024_Quadruped_Competition/meshes/visual/lane_floor.obj"/>
      </geometry>
      <material name="">
        <color rgba="1 0 0 1"/>
      </material>
    </collision>
  </link>
  <!-- gazebo -->
  <gazebo reference="lane_floor_15">
    <static>true</static>
  </gazebo>
  <!-- fixed joint -->
  <joint name="lane_floor_24_joint" type="fixed">
    <origin rpy="0.0 -0.0 0.0" xyz="0.7450000009094255 4.211500000000005 0.0555"/>
    <parent link="world"/>
    <child link="lane_floor_24"/>
  </joint>
  <!-- link -->
  <link name="lane_floor_24">
    <!-- inertial -->
    <inertial>
      <origin rpy="0 0 0" xyz="0 0 0"/>
      <mass value="1"/>
      <inertia ixx="1.0" ixy="0.0" ixz="0.0" iyy="1.0" iyz="0.0" izz="1.0"/>
    </inertial>
    <!-- visual -->
    <visual>
      <origin rpy="0 0 0" xyz="0 0 0"/>
      <geometry>
        <mesh filename="package://ICRA2024_Quadruped_Competition/meshes/visual/lane_floor.obj"/>
      </geometry>
      <material name="">
        <color rgba="0.92 0.93 0.90 1"/>
      </material>
    </visual>
    <!-- collision -->
    <collision>
      <origin rpy="0 0 0" xyz="0 0 0"/>
      <geometry>
        <mesh filename="package://ICRA2024_Quadruped_Competition/meshes/visual/lane_floor.obj"/>
      </geometry>
      <material name="">
        <color rgba="1 0 0 1"/>
      </material>
    </collision>
  </link>
  <!-- gazebo -->
  <gazebo reference="lane_floor_24">
    <static>true</static>
  </gazebo>
  <!-- fixed joint -->
  <joint name="lane_floor_46_joint" type="fixed">
    <origin rpy="4.636953807247085e-15 -0.2939134460358645 -3.132572119938244e-14" xyz="3.077462625888362 4.211499999999969 0.40076009410346286"/>
    <parent link="world"/>
    <child link="lane_floor_46"/>
  </joint>
  <!-- link -->
  <link name="lane_floor_46">
    <!-- inertial -->
    <inertial>
      <origin rpy="0 0 0" xyz="0 0 0"/>
      <mass value="1"/>
      <inertia ixx="1.0" ixy="0.0" ixz="0.0" iyy="1.0" iyz="0.0" izz="1.0"/>
    </inertial>
    <!-- visual -->
    <visual>
      <origin rpy="0 0 0" xyz="0 0 0"/>
      <geometry>
        <mesh filename="package://ICRA2024_Quadruped_Competition/meshes/visual/lane_floor.obj"/>
      </geometry>
      <material name="">
        <color rgba="0.92 0.93 0.90 1"/>
      </material>
    </visual>
    <!-- collision -->
    <collision>
      <origin rpy="0 0 0" xyz="0 0 0"/>
      <geometry>
        <mesh filename="package://ICRA2024_Quadruped_Competition/meshes/visual/lane_floor.obj"/>
      </geometry>
      <material name="">
        <color rgba="1 0 0 1"/>
      </material>
    </collision>
  </link>
  <!-- gazebo -->
  <gazebo reference="lane_floor_46">
    <static>true</static>
  </gazebo>
  <!-- fixed joint -->
  <joint name="lane_floor_62_joint" type="fixed">
    <origin rpy="4.636953807247085e-15 0.2939134460358645 3.132572119938244e-14" xyz="3.212537375930488 3.011499999999969 0.400760094103463"/>
    <parent link="world"/>
    <child link="lane_floor_62"/>
  </joint>
  <!-- link -->
  <link name="lane_floor_62">
    <!-- inertial -->
    <inertial>
      <origin rpy="0 0 0" xyz="0 0 0"/>
      <mass value="1"/>
      <inertia ixx="1.0" ixy="0.0" ixz="0.0" iyy="1.0" iyz="0.0" izz="1.0"/>
    </inertial>
    <!-- visual -->
    <visual>
      <origin rpy="0 0 0" xyz="0 0 0"/>
      <geometry>
        <mesh filename="package://ICRA2024_Quadruped_Competition/meshes/visual/lane_floor.obj"/>
      </geometry>
      <material name="">
        <color rgba="0.92 0.93 0.90 1"/>
      </material>
    </visual>
    <!-- collision -->
    <collision>
      <origin rpy="0 0 0" xyz="0 0 0"/>
      <geometry>
        <mesh filename="package://ICRA2024_Quadruped_Competition/meshes/visual/lane_floor.obj"/>
      </geometry>
      <material name="">
        <color rgba="1 0 0 1"/>
      </material>
    </collision>
  </link>
  <!-- gazebo -->
  <gazebo reference="lane_floor_62">
    <static>true</static>
  </gazebo>
  <!-- fixed joint -->
  <joint name="lane_floor_95_joint" type="fixed">
    <origin rpy="0.0 -0.0 0.0" xyz="-0.322999999090575 3.011500000000003 0.0555"/>
    <parent link="world"/>
    <child link="lane_floor_95"/>
  </joint>
  <!-- link -->
  <link name="lane_floor_95">
    <!-- inertial -->
    <inertial>
      <origin rpy="0 0 0" xyz="0 0 0"/>
      <mass value="1"/>
      <inertia ixx="1.0" ixy="0.0" ixz="0.0" iyy="1.0" iyz="0.0" izz="1.0"/>
    </inertial>
    <!-- visual -->
    <visual>
      <origin rpy="0 0 0" xyz="0 0 0"/>
      <geometry>
        <mesh filename="package://ICRA2024_Quadruped_Competition/meshes/visual/lane_floor.obj"/>
      </geometry>
      <material name="">
        <color rgba="0.92 0.93 0.90 1"/>
      </material>
    </visual>
    <!-- collision -->
    <collision>
      <origin rpy="0 0 0" xyz="0 0 0"/>
      <geometry>
        <mesh filename="package://ICRA2024_Quadruped_Competition/meshes/visual/lane_floor.obj"/>
      </geometry>
      <material name="">
        <color rgba="1 0 0 1"/>
      </material>
    </collision>
  </link>
  <!-- gazebo -->
  <gazebo reference="lane_floor_95">
    <static>true</static>
  </gazebo>
  <!-- fixed joint -->
  <joint name="lane_floor_96_joint" type="fixed">
    <origin rpy="0.0 -0.0 0.0" xyz="-5.122999999090575 4.211500000000003 0.0555"/>
    <parent link="world"/>
    <child link="lane_floor_96"/>
  </joint>
  <!-- link -->
  <link name="lane_floor_96">
    <!-- inertial -->
    <inertial>
      <origin rpy="0 0 0" xyz="0 0 0"/>
      <mass value="1"/>
      <inertia ixx="1.0" ixy="0.0" ixz="0.0" iyy="1.0" iyz="0.0" izz="1.0"/>
    </inertial>
    <!-- visual -->
    <visual>
      <origin rpy="0 0 0" xyz="0 0 0"/>
      <geometry>
        <mesh filename="package://ICRA2024_Quadruped_Competition/meshes/visual/lane_floor.obj"/>
      </geometry>
      <material name="">
        <color rgba="0.92 0.93 0.90 1"/>
      </material>
    </visual>
    <!-- collision -->
    <collision>
      <origin rpy="0 0 0" xyz="0 0 0"/>
      <geometry>
        <mesh filename="package://ICRA2024_Quadruped_Competition/meshes/visual/lane_floor.obj"/>
      </geometry>
      <material name="">
        <color rgba="1 0 0 1"/>
      </material>
    </collision>
  </link>
  <!-- gazebo -->
  <gazebo reference="lane_floor_96">
    <static>true</static>
  </gazebo>
  <!-- fixed joint -->
  <joint name="lane_floor_113_joint" type="fixed">
    <origin rpy="4.636953807247085e-15 -0.2939134460358645 -3.132572119938244e-14" xyz="-2.790537374111638 4.211499999999966 0.40076009410346286"/>
    <parent link="world"/>
    <child link="lane_floor_113"/>
  </joint>
  <!-- link -->
  <link name="lane_floor_113">
    <!-- inertial -->
    <inertial>
      <origin rpy="0 0 0" xyz="0 0 0"/>
      <mass value="1"/>
      <inertia ixx="1.0" ixy="0.0" ixz="0.0" iyy="1.0" iyz="0.0" izz="1.0"/>
    </inertial>
    <!-- visual -->
    <visual>
      <origin rpy="0 0 0" xyz="0 0 0"/>
      <geometry>
        <mesh filename="package://ICRA2024_Quadruped_Competition/meshes/visual/lane_floor.obj"/>
      </geometry>
      <material name="">
        <color rgba="0.92 0.93 0.90 1"/>
      </material>
    </visual>
    <!-- collision -->
    <collision>
      <origin rpy="0 0 0" xyz="0 0 0"/>
      <geometry>
        <mesh filename="package://ICRA2024_Quadruped_Competition/meshes/visual/lane_floor.obj"/>
      </geometry>
      <material name="">
        <color rgba="1 0 0 1"/>
      </material>
    </collision>
  </link>
  <!-- gazebo -->
  <gazebo reference="lane_floor_113">
    <static>true</static>
  </gazebo>
  <!-- fixed joint -->
  <joint name="lane_floor_122_joint" type="fixed">
    <origin rpy="4.636953807247085e-15 0.2939134460358645 3.132572119938244e-14" xyz="-2.6554626240695125 3.011499999999967 0.40076009410346275"/>
    <parent link="world"/>
    <child link="lane_floor_122"/>
  </joint>
  <!-- link -->
  <link name="lane_floor_122">
    <!-- inertial -->
    <inertial>
      <origin rpy="0 0 0" xyz="0 0 0"/>
      <mass value="1"/>
      <inertia ixx="1.0" ixy="0.0" ixz="0.0" iyy="1.0" iyz="0.0" izz="1.0"/>
    </inertial>
    <!-- visual -->
    <visual>
      <origin rpy="0 0 0" xyz="0 0 0"/>
      <geometry>
        <mesh filename="package://ICRA2024_Quadruped_Competition/meshes/visual/lane_floor.obj"/>
      </geometry>
      <material name="">
        <color rgba="0.92 0.93 0.90 1"/>
      </material>
    </visual>
    <!-- collision -->
    <collision>
      <origin rpy="0 0 0" xyz="0 0 0"/>
      <geometry>
        <mesh filename="package://ICRA2024_Quadruped_Competition/meshes/visual/lane_floor.obj"/>
      </geometry>
      <material name="">
        <color rgba="1 0 0 1"/>
      </material>
    </collision>
  </link>
  <!-- gazebo -->
  <gazebo reference="lane_floor_122">
    <static>true</static>
  </gazebo>
  <!-- fixed joint -->
  <joint name="lane_floor_130_joint" type="fixed">
    <origin rpy="0.0 -0.0 0.0" xyz="5.545000000909425 -3.011500000000003 0.0555"/>
    <parent link="world"/>
    <child link="lane_floor_130"/>
  </joint>
  <!-- link -->
  <link name="lane_floor_130">
    <!-- inertial -->
    <inertial>
      <origin rpy="0 0 0" xyz="0 0 0"/>
      <mass value="1"/>
      <inertia ixx="1.0" ixy="0.0" ixz="0.0" iyy="1.0" iyz="0.0" izz="1.0"/>
    </inertial>
    <!-- visual -->
    <visual>
      <origin rpy="0 0 0" xyz="0 0 0"/>
      <geometry>
        <mesh filename="package://ICRA2024_Quadruped_Competition/meshes/visual/lane_floor.obj"/>
      </geometry>
      <material name="">
        <color rgba="0.92 0.93 0.90 1"/>
      </material>
    </visual>
    <!-- collision -->
    <collision>
      <origin rpy="0 0 0" xyz="0 0 0"/>
      <geometry>
        <mesh filename="package://ICRA2024_Quadruped_Competition/meshes/visual/lane_floor.obj"/>
      </geometry>
      <material name="">
        <color rgba="1 0 0 1"/>
      </material>
    </collision>
  </link>
  <!-- gazebo -->
  <gazebo reference="lane_floor_130">
    <static>true</static>
  </gazebo>
  <!-- fixed joint -->
  <joint name="lane_floor_132_joint" type="fixed">
    <origin rpy="0.0 -0.0 0.0" xyz="0.7450000009094255 -4.211500000000004 0.0555"/>
    <parent link="world"/>
    <child link="lane_floor_132"/>
  </joint>
  <!-- link -->
  <link name="lane_floor_132">
    <!-- inertial -->
    <inertial>
      <origin rpy="0 0 0" xyz="0 0 0"/>
      <mass value="1"/>
      <inertia ixx="1.0" ixy="0.0" ixz="0.0" iyy="1.0" iyz="0.0" izz="1.0"/>
    </inertial>
    <!-- visual -->
    <visual>
      <origin rpy="0 0 0" xyz="0 0 0"/>
      <geometry>
        <mesh filename="package://ICRA2024_Quadruped_Competition/meshes/visual/lane_floor.obj"/>
      </geometry>
      <material name="">
        <color rgba="0.92 0.93 0.90 1"/>
      </material>
    </visual>
    <!-- collision -->
    <collision>
      <origin rpy="0 0 0" xyz="0 0 0"/>
      <geometry>
        <mesh filename="package://ICRA2024_Quadruped_Competition/meshes/visual/lane_floor.obj"/>
      </geometry>
      <material name="">
        <color rgba="1 0 0 1"/>
      </material>
    </collision>
  </link>
  <!-- gazebo -->
  <gazebo reference="lane_floor_132">
    <static>true</static>
  </gazebo>
  <!-- fixed joint -->
  <joint name="lane_floor_147_joint" type="fixed">
    <origin rpy="4.636953807247084e-15 0.2939134460358644 3.132572119938244e-14" xyz="3.212537375930488 -3.0115000000000385 0.40076009410346286"/>
    <parent link="world"/>
    <child link="lane_floor_147"/>
  </joint>
  <!-- link -->
  <link name="lane_floor_147">
    <!-- inertial -->
    <inertial>
      <origin rpy="0 0 0" xyz="0 0 0"/>
      <mass value="1"/>
      <inertia ixx="1.0" ixy="0.0" ixz="0.0" iyy="1.0" iyz="0.0" izz="1.0"/>
    </inertial>
    <!-- visual -->
    <visual>
      <origin rpy="0 0 0" xyz="0 0 0"/>
      <geometry>
        <mesh filename="package://ICRA2024_Quadruped_Competition/meshes/visual/lane_floor.obj"/>
      </geometry>
      <material name="">
        <color rgba="0.92 0.93 0.90 1"/>
      </material>
    </visual>
    <!-- collision -->
    <collision>
      <origin rpy="0 0 0" xyz="0 0 0"/>
      <geometry>
        <mesh filename="package://ICRA2024_Quadruped_Competition/meshes/visual/lane_floor.obj"/>
      </geometry>
      <material name="">
        <color rgba="1 0 0 1"/>
      </material>
    </collision>
  </link>
  <!-- gazebo -->
  <gazebo reference="lane_floor_147">
    <static>true</static>
  </gazebo>
  <!-- fixed joint -->
  <joint name="lane_floor_155_joint" type="fixed">
    <origin rpy="4.571479511628805e-15 -0.2939134460358645 -3.109156540223107e-14" xyz="3.077462625888362 -4.211500000000039 0.40076009410346286"/>
    <parent link="world"/>
    <child link="lane_floor_155"/>
  </joint>
  <!-- link -->
  <link name="lane_floor_155">
    <!-- inertial -->
    <inertial>
      <origin rpy="0 0 0" xyz="0 0 0"/>
      <mass value="1"/>
      <inertia ixx="1.0" ixy="0.0" ixz="0.0" iyy="1.0" iyz="0.0" izz="1.0"/>
    </inertial>
    <!-- visual -->
    <visual>
      <origin rpy="0 0 0" xyz="0 0 0"/>
      <geometry>
        <mesh filename="package://ICRA2024_Quadruped_Competition/meshes/visual/lane_floor.obj"/>
      </geometry>
      <material name="">
        <color rgba="0.92 0.93 0.90 1"/>
      </material>
    </visual>
    <!-- collision -->
    <collision>
      <origin rpy="0 0 0" xyz="0 0 0"/>
      <geometry>
        <mesh filename="package://ICRA2024_Quadruped_Competition/meshes/visual/lane_floor.obj"/>
      </geometry>
      <material name="">
        <color rgba="1 0 0 1"/>
      </material>
    </collision>
  </link>
  <!-- gazebo -->
  <gazebo reference="lane_floor_155">
    <static>true</static>
  </gazebo>
  <!-- fixed joint -->
  <joint name="lane_floor_163_joint" type="fixed">
    <origin rpy="0.0 -0.0 0.0" xyz="-0.322999999090575 -3.0115000000000047 0.0555"/>
    <parent link="world"/>
    <child link="lane_floor_163"/>
  </joint>
  <!-- link -->
  <link name="lane_floor_163">
    <!-- inertial -->
    <inertial>
      <origin rpy="0 0 0" xyz="0 0 0"/>
      <mass value="1"/>
      <inertia ixx="1.0" ixy="0.0" ixz="0.0" iyy="1.0" iyz="0.0" izz="1.0"/>
    </inertial>
    <!-- visual -->
    <visual>
      <origin rpy="0 0 0" xyz="0 0 0"/>
      <geometry>
        <mesh filename="package://ICRA2024_Quadruped_Competition/meshes/visual/lane_floor.obj"/>
      </geometry>
      <material name="">
        <color rgba="0.92 0.93 0.90 1"/>
      </material>
    </visual>
    <!-- collision -->
    <collision>
      <origin rpy="0 0 0" xyz="0 0 0"/>
      <geometry>
        <mesh filename="package://ICRA2024_Quadruped_Competition/meshes/visual/lane_floor.obj"/>
      </geometry>
      <material name="">
        <color rgba="1 0 0 1"/>
      </material>
    </collision>
  </link>
  <!-- gazebo -->
  <gazebo reference="lane_floor_163">
    <static>true</static>
  </gazebo>
  <!-- fixed joint -->
  <joint name="lane_floor_164_joint" type="fixed">
    <origin rpy="0.0 -0.0 0.0" xyz="-5.122999999090575 -4.211500000000005 0.0555"/>
    <parent link="world"/>
    <child link="lane_floor_164"/>
  </joint>
  <!-- link -->
  <link name="lane_floor_164">
    <!-- inertial -->
    <inertial>
      <origin rpy="0 0 0" xyz="0 0 0"/>
      <mass value="1"/>
      <inertia ixx="1.0" ixy="0.0" ixz="0.0" iyy="1.0" iyz="0.0" izz="1.0"/>
    </inertial>
    <!-- visual -->
    <visual>
      <origin rpy="0 0 0" xyz="0 0 0"/>
      <geometry>
        <mesh filename="package://ICRA2024_Quadruped_Competition/meshes/visual/lane_floor.obj"/>
      </geometry>
      <material name="">
        <color rgba="0.92 0.93 0.90 1"/>
      </material>
    </visual>
    <!-- collision -->
    <collision>
      <origin rpy="0 0 0" xyz="0 0 0"/>
      <geometry>
        <mesh filename="package://ICRA2024_Quadruped_Competition/meshes/visual/lane_floor.obj"/>
      </geometry>
      <material name="">
        <color rgba="1 0 0 1"/>
      </material>
    </collision>
  </link>
  <!-- gazebo -->
  <gazebo reference="lane_floor_164">
    <static>true</static>
  </gazebo>
  <!-- fixed joint -->
  <joint name="lane_floor_181_joint" type="fixed">
    <origin rpy="4.636953807247085e-15 -0.2939134460358645 -3.132572119938244e-14" xyz="-2.790537374111638 -4.211500000000041 0.4007600941034627"/>
    <parent link="world"/>
    <child link="lane_floor_181"/>
  </joint>
  <!-- link -->
  <link name="lane_floor_181">
    <!-- inertial -->
    <inertial>
      <origin rpy="0 0 0" xyz="0 0 0"/>
      <mass value="1"/>
      <inertia ixx="1.0" ixy="0.0" ixz="0.0" iyy="1.0" iyz="0.0" izz="1.0"/>
    </inertial>
    <!-- visual -->
    <visual>
      <origin rpy="0 0 0" xyz="0 0 0"/>
      <geometry>
        <mesh filename="package://ICRA2024_Quadruped_Competition/meshes/visual/lane_floor.obj"/>
      </geometry>
      <material name="">
        <color rgba="0.92 0.93 0.90 1"/>
      </material>
    </visual>
    <!-- collision -->
    <collision>
      <origin rpy="0 0 0" xyz="0 0 0"/>
      <geometry>
        <mesh filename="package://ICRA2024_Quadruped_Competition/meshes/visual/lane_floor.obj"/>
      </geometry>
      <material name="">
        <color rgba="1 0 0 1"/>
      </material>
    </collision>
  </link>
  <!-- gazebo -->
  <gazebo reference="lane_floor_181">
    <static>true</static>
  </gazebo>
  <!-- fixed joint -->
  <joint name="lane_floor_190_joint" type="fixed">
    <origin rpy="4.636953807247085e-15 0.2939134460358645 3.132572119938244e-14" xyz="-2.6554626240695125 -3.0115000000000407 0.4007600941034629"/>
    <parent link="world"/>
    <child link="lane_floor_190"/>
  </joint>
  <!-- link -->
  <link name="lane_floor_190">
    <!-- inertial -->
    <inertial>
      <origin rpy="0 0 0" xyz="0 0 0"/>
      <mass value="1"/>
      <inertia ixx="1.0" ixy="0.0" ixz="0.0" iyy="1.0" iyz="0.0" izz="1.0"/>
    </inertial>
    <!-- visual -->
    <visual>
      <origin rpy="0 0 0" xyz="0 0 0"/>
      <geometry>
        <mesh filename="package://ICRA2024_Quadruped_Competition/meshes/visual/lane_floor.obj"/>
      </geometry>
      <material name="">
        <color rgba="0.92 0.93 0.90 1"/>
      </material>
    </visual>
    <!-- collision -->
    <collision>
      <origin rpy="0 0 0" xyz="0 0 0"/>
      <geometry>
        <mesh filename="package://ICRA2024_Quadruped_Competition/meshes/visual/lane_floor.obj"/>
      </geometry>
      <material name="">
        <color rgba="1 0 0 1"/>
      </material>
    </collision>
  </link>
  <!-- gazebo -->
  <gazebo reference="lane_floor_190">
    <static>true</static>
  </gazebo>
  <!-- fixed joint -->
  <joint name="pallet_step_84_joint" type="fixed">
    <origin rpy="0.0 -0.0 0.0" xyz="-6.1519999990905685 -0.6115000000000318 0.10899999999999999"/>
    <parent link="world"/>
    <child link="pallet_step_84"/>
  </joint>
  <!-- link -->
  <link name="pallet_step_84">
    <!-- inertial -->
    <inertial>
      <origin rpy="0 0 0" xyz="0 0 0"/>
      <mass value="1"/>
      <inertia ixx="1.0" ixy="0.0" ixz="0.0" iyy="1.0" iyz="0.0" izz="1.0"/>
    </inertial>
    <!-- visual -->
    <visual>
      <origin rpy="0 0 0" xyz="0 0 0"/>
      <geometry>
        <mesh filename="package://ICRA2024_Quadruped_Competition/meshes/visual/pallet_step.obj"/>
      </geometry>
      <material name="">
        <color rgba="0.92 0.93 0.90 1"/>
      </material>
    </visual>
    <!-- collision -->
    <collision>
      <origin rpy="0 0 0" xyz="0 0 0"/>
      <geometry>
        <mesh filename="package://ICRA2024_Quadruped_Competition/meshes/visual/pallet_step.obj"/>
      </geometry>
      <material name="">
        <color rgba="1 0 0 1"/>
      </material>
    </collision>
  </link>
  <!-- gazebo -->
  <gazebo reference="pallet_step_84">
    <static>true</static>
  </gazebo>
  <!-- fixed joint -->
  <joint name="pallet_step_85_joint" type="fixed">
    <origin rpy="0.0 -0.0 0.0" xyz="-6.1519999990905685 0.6104999999999681 0.10899999999999999"/>
    <parent link="world"/>
    <child link="pallet_step_85"/>
  </joint>
  <!-- link -->
  <link name="pallet_step_85">
    <!-- inertial -->
    <inertial>
      <origin rpy="0 0 0" xyz="0 0 0"/>
      <mass value="1"/>
      <inertia ixx="1.0" ixy="0.0" ixz="0.0" iyy="1.0" iyz="0.0" izz="1.0"/>
    </inertial>
    <!-- visual -->
    <visual>
      <origin rpy="0 0 0" xyz="0 0 0"/>
      <geometry>
        <mesh filename="package://ICRA2024_Quadruped_Competition/meshes/visual/pallet_step.obj"/>
      </geometry>
      <material name="">
        <color rgba="0.92 0.93 0.90 1"/>
      </material>
    </visual>
    <!-- collision -->
    <collision>
      <origin rpy="0 0 0" xyz="0 0 0"/>
      <geometry>
        <mesh filename="package://ICRA2024_Quadruped_Competition/meshes/visual/pallet_step.obj"/>
      </geometry>
      <material name="">
        <color rgba="1 0 0 1"/>
      </material>
    </collision>
  </link>
  <!-- gazebo -->
  <gazebo reference="pallet_step_85">
    <static>true</static>
  </gazebo>
  <!-- fixed joint -->
  <joint name="pallet_step_with_pipe_76_joint" type="fixed">
    <origin rpy="0.0 -0.0 0.0" xyz="-4.951999999090568 -0.6115000000000318 0.3"/>
    <parent link="world"/>
    <child link="pallet_step_with_pipe_76"/>
  </joint>
  <!-- link -->
  <link name="pallet_step_with_pipe_76">
    <!-- inertial -->
    <inertial>
      <origin rpy="0 0 0" xyz="0 0 0"/>
      <mass value="1"/>
      <inertia ixx="1.0" ixy="0.0" ixz="0.0" iyy="1.0" iyz="0.0" izz="1.0"/>
    </inertial>
    <!-- visual -->
    <visual>
      <origin rpy="0 0 0" xyz="0 0 0"/>
      <geometry>
        <mesh filename="package://ICRA2024_Quadruped_Competition/meshes/visual/pallet_step_with_pipe.obj"/>
      </geometry>
      <material name="">
        <color rgba="0.92 0.93 0.90 1"/>
      </material>
    </visual>
    <!-- collision -->
    <collision>
      <origin rpy="0 0 0" xyz="0 0 0"/>
      <geometry>
        <mesh filename="package://ICRA2024_Quadruped_Competition/meshes/visual/pallet_step_with_pipe.obj"/>
      </geometry>
      <material name="">
        <color rgba="1 0 0 1"/>
      </material>
    </collision>
  </link>
  <!-- gazebo -->
  <gazebo reference="pallet_step_with_pipe_76">
    <static>true</static>
  </gazebo>
  <!-- fixed joint -->
  <joint name="pallet_step_with_pipe_78_joint" type="fixed">
    <origin rpy="0.0 -0.0 0.0" xyz="-3.751999999090568 -0.6115000000000318 0.3"/>
    <parent link="world"/>
    <child link="pallet_step_with_pipe_78"/>
  </joint>
  <!-- link -->
  <link name="pallet_step_with_pipe_78">
    <!-- inertial -->
    <inertial>
      <origin rpy="0 0 0" xyz="0 0 0"/>
      <mass value="1"/>
      <inertia ixx="1.0" ixy="0.0" ixz="0.0" iyy="1.0" iyz="0.0" izz="1.0"/>
    </inertial>
    <!-- visual -->
    <visual>
      <origin rpy="0 0 0" xyz="0 0 0"/>
      <geometry>
        <mesh filename="package://ICRA2024_Quadruped_Competition/meshes/visual/pallet_step_with_pipe.obj"/>
      </geometry>
      <material name="">
        <color rgba="0.92 0.93 0.90 1"/>
      </material>
    </visual>
    <!-- collision -->
    <collision>
      <origin rpy="0 0 0" xyz="0 0 0"/>
      <geometry>
        <mesh filename="package://ICRA2024_Quadruped_Competition/meshes/visual/pallet_step_with_pipe.obj"/>
      </geometry>
      <material name="">
        <color rgba="1 0 0 1"/>
      </material>
    </collision>
  </link>
  <!-- gazebo -->
  <gazebo reference="pallet_step_with_pipe_78">
    <static>true</static>
  </gazebo>
  <!-- fixed joint -->
  <joint name="pallet_step_with_pipe_80_joint" type="fixed">
    <origin rpy="0.0 -0.0 0.0" xyz="-3.751999999090568 0.6104999999999681 0.3"/>
    <parent link="world"/>
    <child link="pallet_step_with_pipe_80"/>
  </joint>
  <!-- link -->
  <link name="pallet_step_with_pipe_80">
    <!-- inertial -->
    <inertial>
      <origin rpy="0 0 0" xyz="0 0 0"/>
      <mass value="1"/>
      <inertia ixx="1.0" ixy="0.0" ixz="0.0" iyy="1.0" iyz="0.0" izz="1.0"/>
    </inertial>
    <!-- visual -->
    <visual>
      <origin rpy="0 0 0" xyz="0 0 0"/>
      <geometry>
        <mesh filename="package://ICRA2024_Quadruped_Competition/meshes/visual/pallet_step_with_pipe.obj"/>
      </geometry>
      <material name="">
        <color rgba="0.92 0.93 0.90 1"/>
      </material>
    </visual>
    <!-- collision -->
    <collision>
      <origin rpy="0 0 0" xyz="0 0 0"/>
      <geometry>
        <mesh filename="package://ICRA2024_Quadruped_Competition/meshes/visual/pallet_step_with_pipe.obj"/>
      </geometry>
      <material name="">
        <color rgba="1 0 0 1"/>
      </material>
    </collision>
  </link>
  <!-- gazebo -->
  <gazebo reference="pallet_step_with_pipe_80">
    <static>true</static>
  </gazebo>
  <!-- fixed joint -->
  <joint name="pallet_step_with_pipe_82_joint" type="fixed">
    <origin rpy="0.0 -0.0 0.0" xyz="-4.951999999090568 0.6104999999999681 0.3"/>
    <parent link="world"/>
    <child link="pallet_step_with_pipe_82"/>
  </joint>
  <!-- link -->
  <link name="pallet_step_with_pipe_82">
    <!-- inertial -->
    <inertial>
      <origin rpy="0 0 0" xyz="0 0 0"/>
      <mass value="1"/>
      <inertia ixx="1.0" ixy="0.0" ixz="0.0" iyy="1.0" iyz="0.0" izz="1.0"/>
    </inertial>
    <!-- visual -->
    <visual>
      <origin rpy="0 0 0" xyz="0 0 0"/>
      <geometry>
        <mesh filename="package://ICRA2024_Quadruped_Competition/meshes/visual/pallet_step_with_pipe.obj"/>
      </geometry>
      <material name="">
        <color rgba="0.92 0.93 0.90 1"/>
      </material>
    </visual>
    <!-- collision -->
    <collision>
      <origin rpy="0 0 0" xyz="0 0 0"/>
      <geometry>
        <mesh filename="package://ICRA2024_Quadruped_Competition/meshes/visual/pallet_step_with_pipe.obj"/>
      </geometry>
      <material name="">
        <color rgba="1 0 0 1"/>
      </material>
    </collision>
  </link>
  <!-- gazebo -->
  <gazebo reference="pallet_step_with_pipe_82">
    <static>true</static>
  </gazebo>
  <!-- fixed joint -->
  <joint name="pallet_step_with_pipe_86_joint" type="fixed">
    <origin rpy="0.0 -0.0 1.570796326795" xyz="-6.151999999090693 1.810499999999968 0.3"/>
    <parent link="world"/>
    <child link="pallet_step_with_pipe_86"/>
  </joint>
  <!-- link -->
  <link name="pallet_step_with_pipe_86">
    <!-- inertial -->
    <inertial>
      <origin rpy="0 0 0" xyz="0 0 0"/>
      <mass value="1"/>
      <inertia ixx="1.0" ixy="0.0" ixz="0.0" iyy="1.0" iyz="0.0" izz="1.0"/>
    </inertial>
    <!-- visual -->
    <visual>
      <origin rpy="0 0 0" xyz="0 0 0"/>
      <geometry>
        <mesh filename="package://ICRA2024_Quadruped_Competition/meshes/visual/pallet_step_with_pipe.obj"/>
      </geometry>
      <material name="">
        <color rgba="0.92 0.93 0.90 1"/>
      </material>
    </visual>
    <!-- collision -->
    <collision>
      <origin rpy="0 0 0" xyz="0 0 0"/>
      <geometry>
        <mesh filename="package://ICRA2024_Quadruped_Competition/meshes/visual/pallet_step_with_pipe.obj"/>
      </geometry>
      <material name="">
        <color rgba="1 0 0 1"/>
      </material>
    </collision>
  </link>
  <!-- gazebo -->
  <gazebo reference="pallet_step_with_pipe_86">
    <static>true</static>
  </gazebo>
  <!-- fixed joint -->
  <joint name="pallet_step_with_pipe_88_joint" type="fixed">
    <origin rpy="0.0 -0.0 -1.5707963267945864" xyz="-6.1519999990905685 -1.8115000000000319 0.3"/>
    <parent link="world"/>
    <child link="pallet_step_with_pipe_88"/>
  </joint>
  <!-- link -->
  <link name="pallet_step_with_pipe_88">
    <!-- inertial -->
    <inertial>
      <origin rpy="0 0 0" xyz="0 0 0"/>
      <mass value="1"/>
      <inertia ixx="1.0" ixy="0.0" ixz="0.0" iyy="1.0" iyz="0.0" izz="1.0"/>
    </inertial>
    <!-- visual -->
    <visual>
      <origin rpy="0 0 0" xyz="0 0 0"/>
      <geometry>
        <mesh filename="package://ICRA2024_Quadruped_Competition/meshes/visual/pallet_step_with_pipe.obj"/>
      </geometry>
      <material name="">
        <color rgba="0.92 0.93 0.90 1"/>
      </material>
    </visual>
    <!-- collision -->
    <collision>
      <origin rpy="0 0 0" xyz="0 0 0"/>
      <geometry>
        <mesh filename="package://ICRA2024_Quadruped_Competition/meshes/visual/pallet_step_with_pipe.obj"/>
      </geometry>
      <material name="">
        <color rgba="1 0 0 1"/>
      </material>
    </collision>
  </link>
  <!-- gazebo -->
  <gazebo reference="pallet_step_with_pipe_88">
    <static>true</static>
  </gazebo>
  <!-- fixed joint -->
  <joint name="pallet_step_with_pipe_90_joint" type="fixed">
    <origin rpy="0.0 -0.0 -1.5707963267945864" xyz="-5.751999999090197 -3.0114999999999075 0.3"/>
    <parent link="world"/>
    <child link="pallet_step_with_pipe_90"/>
  </joint>
  <!-- link -->
  <link name="pallet_step_with_pipe_90">
    <!-- inertial -->
    <inertial>
      <origin rpy="0 0 0" xyz="0 0 0"/>
      <mass value="1"/>
      <inertia ixx="1.0" ixy="0.0" ixz="0.0" iyy="1.0" iyz="0.0" izz="1.0"/>
    </inertial>
    <!-- visual -->
    <visual>
      <origin rpy="0 0 0" xyz="0 0 0"/>
      <geometry>
        <mesh filename="package://ICRA2024_Quadruped_Competition/meshes/visual/pallet_step_with_pipe.obj"/>
      </geometry>
      <material name="">
        <color rgba="0.92 0.93 0.90 1"/>
      </material>
    </visual>
    <!-- collision -->
    <collision>
      <origin rpy="0 0 0" xyz="0 0 0"/>
      <geometry>
        <mesh filename="package://ICRA2024_Quadruped_Competition/meshes/visual/pallet_step_with_pipe.obj"/>
      </geometry>
      <material name="">
        <color rgba="1 0 0 1"/>
      </material>
    </collision>
  </link>
  <!-- gazebo -->
  <gazebo reference="pallet_step_with_pipe_90">
    <static>true</static>
  </gazebo>
  <!-- fixed joint -->
  <joint name="pallet_step_with_pipe_92_joint" type="fixed">
    <origin rpy="0.0 -0.0 1.570796326795" xyz="-5.751999999092095 3.011500000000046 0.3"/>
    <parent link="world"/>
    <child link="pallet_step_with_pipe_92"/>
  </joint>
  <!-- link -->
  <link name="pallet_step_with_pipe_92">
    <!-- inertial -->
    <inertial>
      <origin rpy="0 0 0" xyz="0 0 0"/>
      <mass value="1"/>
      <inertia ixx="1.0" ixy="0.0" ixz="0.0" iyy="1.0" iyz="0.0" izz="1.0"/>
    </inertial>
    <!-- visual -->
    <visual>
      <origin rpy="0 0 0" xyz="0 0 0"/>
      <geometry>
        <mesh filename="package://ICRA2024_Quadruped_Competition/meshes/visual/pallet_step_with_pipe.obj"/>
      </geometry>
      <material name="">
        <color rgba="0.92 0.93 0.90 1"/>
      </material>
    </visual>
    <!-- collision -->
    <collision>
      <origin rpy="0 0 0" xyz="0 0 0"/>
      <geometry>
        <mesh filename="package://ICRA2024_Quadruped_Competition/meshes/visual/pallet_step_with_pipe.obj"/>
      </geometry>
      <material name="">
        <color rgba="1 0 0 1"/>
      </material>
    </collision>
  </link>
  <!-- gazebo -->
  <gazebo reference="pallet_step_with_pipe_92">
    <static>true</static>
  </gazebo>
  <!-- fixed joint -->
  <joint name="pvc_pipe_100x1200_77_joint" type="fixed">
    <origin rpy="1.570796326795 -0.0 0.0" xyz="-5.501999999090566 -0.6115000000000318 0.32"/>
    <parent link="world"/>
    <child link="pvc_pipe_100x1200_77"/>
  </joint>
  <!-- link -->
  <link name="pvc_pipe_100x1200_77">
    <!-- inertial -->
    <inertial>
      <origin rpy="0 0 0" xyz="0 0 0"/>
      <mass value="1"/>
      <inertia ixx="1.0" ixy="0.0" ixz="0.0" iyy="1.0" iyz="0.0" izz="1.0"/>
    </inertial>
    <!-- visual -->
    <visual>
      <origin rpy="0 0 0" xyz="0 0 0"/>
      <geometry>
        <mesh filename="package://ICRA2024_Quadruped_Competition/meshes/visual/pvc_pipe_100x1200.obj"/>
      </geometry>
      <material name="">
        <color rgba="0.92 0.93 0.90 1"/>
      </material>
    </visual>
    <!-- collision -->
    <collision>
      <origin rpy="0 0 0" xyz="0 0 0"/>
      <geometry>
        <mesh filename="package://ICRA2024_Quadruped_Competition/meshes/visual/pvc_pipe_100x1200.obj"/>
      </geometry>
      <material name="">
        <color rgba="1 0 0 1"/>
      </material>
    </collision>
  </link>
  <!-- gazebo -->
  <gazebo reference="pvc_pipe_100x1200_77">
    <static>true</static>
  </gazebo>
  <!-- fixed joint -->
  <joint name="pvc_pipe_100x1200_79_joint" type="fixed">
    <origin rpy="1.570796326795 -0.0 0.0" xyz="-4.301999999090566 -0.6115000000000318 0.32"/>
    <parent link="world"/>
    <child link="pvc_pipe_100x1200_79"/>
  </joint>
  <!-- link -->
  <link name="pvc_pipe_100x1200_79">
    <!-- inertial -->
    <inertial>
      <origin rpy="0 0 0" xyz="0 0 0"/>
      <mass value="1"/>
      <inertia ixx="1.0" ixy="0.0" ixz="0.0" iyy="1.0" iyz="0.0" izz="1.0"/>
    </inertial>
    <!-- visual -->
    <visual>
      <origin rpy="0 0 0" xyz="0 0 0"/>
      <geometry>
        <mesh filename="package://ICRA2024_Quadruped_Competition/meshes/visual/pvc_pipe_100x1200.obj"/>
      </geometry>
      <material name="">
        <color rgba="0.92 0.93 0.90 1"/>
      </material>
    </visual>
    <!-- collision -->
    <collision>
      <origin rpy="0 0 0" xyz="0 0 0"/>
      <geometry>
        <mesh filename="package://ICRA2024_Quadruped_Competition/meshes/visual/pvc_pipe_100x1200.obj"/>
      </geometry>
      <material name="">
        <color rgba="1 0 0 1"/>
      </material>
    </collision>
  </link>
  <!-- gazebo -->
  <gazebo reference="pvc_pipe_100x1200_79">
    <static>true</static>
  </gazebo>
  <!-- fixed joint -->
  <joint name="pvc_pipe_100x1200_81_joint" type="fixed">
    <origin rpy="1.570796326795 -0.0 0.0" xyz="-4.301999999090566 0.6104999999999681 0.32"/>
    <parent link="world"/>
    <child link="pvc_pipe_100x1200_81"/>
  </joint>
  <!-- link -->
  <link name="pvc_pipe_100x1200_81">
    <!-- inertial -->
    <inertial>
      <origin rpy="0 0 0" xyz="0 0 0"/>
      <mass value="1"/>
      <inertia ixx="1.0" ixy="0.0" ixz="0.0" iyy="1.0" iyz="0.0" izz="1.0"/>
    </inertial>
    <!-- visual -->
    <visual>
      <origin rpy="0 0 0" xyz="0 0 0"/>
      <geometry>
        <mesh filename="package://ICRA2024_Quadruped_Competition/meshes/visual/pvc_pipe_100x1200.obj"/>
      </geometry>
      <material name="">
        <color rgba="0.92 0.93 0.90 1"/>
      </material>
    </visual>
    <!-- collision -->
    <collision>
      <origin rpy="0 0 0" xyz="0 0 0"/>
      <geometry>
        <mesh filename="package://ICRA2024_Quadruped_Competition/meshes/visual/pvc_pipe_100x1200.obj"/>
      </geometry>
      <material name="">
        <color rgba="1 0 0 1"/>
      </material>
    </collision>
  </link>
  <!-- gazebo -->
  <gazebo reference="pvc_pipe_100x1200_81">
    <static>true</static>
  </gazebo>
  <!-- fixed joint -->
  <joint name="pvc_pipe_100x1200_83_joint" type="fixed">
    <origin rpy="1.570796326795 -0.0 0.0" xyz="-5.501999999090566 0.6104999999999681 0.32"/>
    <parent link="world"/>
    <child link="pvc_pipe_100x1200_83"/>
  </joint>
  <!-- link -->
  <link name="pvc_pipe_100x1200_83">
    <!-- inertial -->
    <inertial>
      <origin rpy="0 0 0" xyz="0 0 0"/>
      <mass value="1"/>
      <inertia ixx="1.0" ixy="0.0" ixz="0.0" iyy="1.0" iyz="0.0" izz="1.0"/>
    </inertial>
    <!-- visual -->
    <visual>
      <origin rpy="0 0 0" xyz="0 0 0"/>
      <geometry>
        <mesh filename="package://ICRA2024_Quadruped_Competition/meshes/visual/pvc_pipe_100x1200.obj"/>
      </geometry>
      <material name="">
        <color rgba="0.92 0.93 0.90 1"/>
      </material>
    </visual>
    <!-- collision -->
    <collision>
      <origin rpy="0 0 0" xyz="0 0 0"/>
      <geometry>
        <mesh filename="package://ICRA2024_Quadruped_Competition/meshes/visual/pvc_pipe_100x1200.obj"/>
      </geometry>
      <material name="">
        <color rgba="1 0 0 1"/>
      </material>
    </collision>
  </link>
  <!-- gazebo -->
  <gazebo reference="pvc_pipe_100x1200_83">
    <static>true</static>
  </gazebo>
  <!-- fixed joint -->
  <joint name="pvc_pipe_100x1200_87_joint" type="fixed">
    <origin rpy="1.5707963267950003 -0.0 1.5707963267950003" xyz="-6.151999999090636 1.26049999999997 0.32"/>
    <parent link="world"/>
    <child link="pvc_pipe_100x1200_87"/>
  </joint>
  <!-- link -->
  <link name="pvc_pipe_100x1200_87">
    <!-- inertial -->
    <inertial>
      <origin rpy="0 0 0" xyz="0 0 0"/>
      <mass value="1"/>
      <inertia ixx="1.0" ixy="0.0" ixz="0.0" iyy="1.0" iyz="0.0" izz="1.0"/>
    </inertial>
    <!-- visual -->
    <visual>
      <origin rpy="0 0 0" xyz="0 0 0"/>
      <geometry>
        <mesh filename="package://ICRA2024_Quadruped_Competition/meshes/visual/pvc_pipe_100x1200.obj"/>
      </geometry>
      <material name="">
        <color rgba="0.92 0.93 0.90 1"/>
      </material>
    </visual>
    <!-- collision -->
    <collision>
      <origin rpy="0 0 0" xyz="0 0 0"/>
      <geometry>
        <mesh filename="package://ICRA2024_Quadruped_Competition/meshes/visual/pvc_pipe_100x1200.obj"/>
      </geometry>
      <material name="">
        <color rgba="1 0 0 1"/>
      </material>
    </collision>
  </link>
  <!-- gazebo -->
  <gazebo reference="pvc_pipe_100x1200_87">
    <static>true</static>
  </gazebo>
  <!-- fixed joint -->
  <joint name="pvc_pipe_100x1200_89_joint" type="fixed">
    <origin rpy="1.5707963267950003 -0.0 -1.5707963267945864" xyz="-6.151999999090739 -1.2615000000000338 0.32000000000000006"/>
    <parent link="world"/>
    <child link="pvc_pipe_100x1200_89"/>
  </joint>
  <!-- link -->
  <link name="pvc_pipe_100x1200_89">
    <!-- inertial -->
    <inertial>
      <origin rpy="0 0 0" xyz="0 0 0"/>
      <mass value="1"/>
      <inertia ixx="1.0" ixy="0.0" ixz="0.0" iyy="1.0" iyz="0.0" izz="1.0"/>
    </inertial>
    <!-- visual -->
    <visual>
      <origin rpy="0 0 0" xyz="0 0 0"/>
      <geometry>
        <mesh filename="package://ICRA2024_Quadruped_Competition/meshes/visual/pvc_pipe_100x1200.obj"/>
      </geometry>
      <material name="">
        <color rgba="0.92 0.93 0.90 1"/>
      </material>
    </visual>
    <!-- collision -->
    <collision>
      <origin rpy="0 0 0" xyz="0 0 0"/>
      <geometry>
        <mesh filename="package://ICRA2024_Quadruped_Competition/meshes/visual/pvc_pipe_100x1200.obj"/>
      </geometry>
      <material name="">
        <color rgba="1 0 0 1"/>
      </material>
    </collision>
  </link>
  <!-- gazebo -->
  <gazebo reference="pvc_pipe_100x1200_89">
    <static>true</static>
  </gazebo>
  <!-- fixed joint -->
  <joint name="pvc_pipe_100x1200_91_joint" type="fixed">
    <origin rpy="1.5707963267950003 -0.0 -1.5707963267945864" xyz="-5.751999999090367 -2.4614999999999094 0.32000000000000006"/>
    <parent link="world"/>
    <child link="pvc_pipe_100x1200_91"/>
  </joint>
  <!-- link -->
  <link name="pvc_pipe_100x1200_91">
    <!-- inertial -->
    <inertial>
      <origin rpy="0 0 0" xyz="0 0 0"/>
      <mass value="1"/>
      <inertia ixx="1.0" ixy="0.0" ixz="0.0" iyy="1.0" iyz="0.0" izz="1.0"/>
    </inertial>
    <!-- visual -->
    <visual>
      <origin rpy="0 0 0" xyz="0 0 0"/>
      <geometry>
        <mesh filename="package://ICRA2024_Quadruped_Competition/meshes/visual/pvc_pipe_100x1200.obj"/>
      </geometry>
      <material name="">
        <color rgba="0.92 0.93 0.90 1"/>
      </material>
    </visual>
    <!-- collision -->
    <collision>
      <origin rpy="0 0 0" xyz="0 0 0"/>
      <geometry>
        <mesh filename="package://ICRA2024_Quadruped_Competition/meshes/visual/pvc_pipe_100x1200.obj"/>
      </geometry>
      <material name="">
        <color rgba="1 0 0 1"/>
      </material>
    </collision>
  </link>
  <!-- gazebo -->
  <gazebo reference="pvc_pipe_100x1200_91">
    <static>true</static>
  </gazebo>
  <!-- fixed joint -->
  <joint name="pvc_pipe_100x1200_93_joint" type="fixed">
    <origin rpy="1.5707963267950003 -0.0 1.5707963267950003" xyz="-5.751999999092038 2.461500000000048 0.32"/>
    <parent link="world"/>
    <child link="pvc_pipe_100x1200_93"/>
  </joint>
  <!-- link -->
  <link name="pvc_pipe_100x1200_93">
    <!-- inertial -->
    <inertial>
      <origin rpy="0 0 0" xyz="0 0 0"/>
      <mass value="1"/>
      <inertia ixx="1.0" ixy="0.0" ixz="0.0" iyy="1.0" iyz="0.0" izz="1.0"/>
    </inertial>
    <!-- visual -->
    <visual>
      <origin rpy="0 0 0" xyz="0 0 0"/>
      <geometry>
        <mesh filename="package://ICRA2024_Quadruped_Competition/meshes/visual/pvc_pipe_100x1200.obj"/>
      </geometry>
      <material name="">
        <color rgba="0.92 0.93 0.90 1"/>
      </material>
    </visual>
    <!-- collision -->
    <collision>
      <origin rpy="0 0 0" xyz="0 0 0"/>
      <geometry>
        <mesh filename="package://ICRA2024_Quadruped_Competition/meshes/visual/pvc_pipe_100x1200.obj"/>
      </geometry>
      <material name="">
        <color rgba="1 0 0 1"/>
      </material>
    </collision>
  </link>
  <!-- gazebo -->
  <gazebo reference="pvc_pipe_100x1200_93">
    <static>true</static>
  </gazebo>
  <!-- fixed joint -->
  <joint name="ramp_16_joint" type="fixed">
    <origin rpy="0.0 -0.0 8.272924284408579e-13" xyz="4.724000000000016 2.7379999999999978 0.09508599999999999"/>
    <parent link="world"/>
    <child link="ramp_16"/>
  </joint>
  <!-- link -->
  <link name="ramp_16">
    <!-- inertial -->
    <inertial>
      <origin rpy="0 0 0" xyz="0 0 0"/>
      <mass value="1"/>
      <inertia ixx="1.0" ixy="0.0" ixz="0.0" iyy="1.0" iyz="0.0" izz="1.0"/>
    </inertial>
    <!-- visual -->
    <visual>
      <origin rpy="0 0 0" xyz="0 0 0"/>
      <geometry>
        <mesh filename="package://ICRA2024_Quadruped_Competition/meshes/visual/ramp.obj"/>
      </geometry>
      <material name="">
        <color rgba="0.92 0.93 0.90 1"/>
      </material>
    </visual>
    <!-- collision -->
    <collision>
      <origin rpy="0 0 0" xyz="0 0 0"/>
      <geometry>
        <mesh filename="package://ICRA2024_Quadruped_Competition/meshes/visual/ramp.obj"/>
      </geometry>
      <material name="">
        <color rgba="1 0 0 1"/>
      </material>
    </collision>
  </link>
  <!-- gazebo -->
  <gazebo reference="ramp_16">
    <static>true</static>
  </gazebo>
  <!-- fixed joint -->
  <joint name="ramp_17_joint" type="fixed">
    <origin rpy="0.0 -0.0 -1.5707963267937588" xyz="4.723999999999788 3.2879999999999976 0.09508599999999999"/>
    <parent link="world"/>
    <child link="ramp_17"/>
  </joint>
  <!-- link -->
  <link name="ramp_17">
    <!-- inertial -->
    <inertial>
      <origin rpy="0 0 0" xyz="0 0 0"/>
      <mass value="1"/>
      <inertia ixx="1.0" ixy="0.0" ixz="0.0" iyy="1.0" iyz="0.0" izz="1.0"/>
    </inertial>
    <!-- visual -->
    <visual>
      <origin rpy="0 0 0" xyz="0 0 0"/>
      <geometry>
        <mesh filename="package://ICRA2024_Quadruped_Competition/meshes/visual/ramp.obj"/>
      </geometry>
      <material name="">
        <color rgba="0.92 0.93 0.90 1"/>
      </material>
    </visual>
    <!-- collision -->
    <collision>
      <origin rpy="0 0 0" xyz="0 0 0"/>
      <geometry>
        <mesh filename="package://ICRA2024_Quadruped_Competition/meshes/visual/ramp.obj"/>
      </geometry>
      <material name="">
        <color rgba="1 0 0 1"/>
      </material>
    </collision>
  </link>
  <!-- gazebo -->
  <gazebo reference="ramp_17">
    <static>true</static>
  </gazebo>
  <!-- fixed joint -->
  <joint name="ramp_18_joint" type="fixed">
    <origin rpy="0.0 -0.0 8.272924284408579e-13" xyz="5.794000000000016 2.7379999999999973 0.09508599999999999"/>
    <parent link="world"/>
    <child link="ramp_18"/>
  </joint>
  <!-- link -->
  <link name="ramp_18">
    <!-- inertial -->
    <inertial>
      <origin rpy="0 0 0" xyz="0 0 0"/>
      <mass value="1"/>
      <inertia ixx="1.0" ixy="0.0" ixz="0.0" iyy="1.0" iyz="0.0" izz="1.0"/>
    </inertial>
    <!-- visual -->
    <visual>
      <origin rpy="0 0 0" xyz="0 0 0"/>
      <geometry>
        <mesh filename="package://ICRA2024_Quadruped_Competition/meshes/visual/ramp.obj"/>
      </geometry>
      <material name="">
        <color rgba="0.92 0.93 0.90 1"/>
      </material>
    </visual>
    <!-- collision -->
    <collision>
      <origin rpy="0 0 0" xyz="0 0 0"/>
      <geometry>
        <mesh filename="package://ICRA2024_Quadruped_Competition/meshes/visual/ramp.obj"/>
      </geometry>
      <material name="">
        <color rgba="1 0 0 1"/>
      </material>
    </collision>
  </link>
  <!-- gazebo -->
  <gazebo reference="ramp_18">
    <static>true</static>
  </gazebo>
  <!-- fixed joint -->
  <joint name="ramp_19_joint" type="fixed">
    <origin rpy="0.0 0.0 -1.5707963267941727" xyz="5.793999999999787 3.2879999999999976 0.09508599999999999"/>
    <parent link="world"/>
    <child link="ramp_19"/>
  </joint>
  <!-- link -->
  <link name="ramp_19">
    <!-- inertial -->
    <inertial>
      <origin rpy="0 0 0" xyz="0 0 0"/>
      <mass value="1"/>
      <inertia ixx="1.0" ixy="0.0" ixz="0.0" iyy="1.0" iyz="0.0" izz="1.0"/>
    </inertial>
    <!-- visual -->
    <visual>
      <origin rpy="0 0 0" xyz="0 0 0"/>
      <geometry>
        <mesh filename="package://ICRA2024_Quadruped_Competition/meshes/visual/ramp.obj"/>
      </geometry>
      <material name="">
        <color rgba="0.92 0.93 0.90 1"/>
      </material>
    </visual>
    <!-- collision -->
    <collision>
      <origin rpy="0 0 0" xyz="0 0 0"/>
      <geometry>
        <mesh filename="package://ICRA2024_Quadruped_Competition/meshes/visual/ramp.obj"/>
      </geometry>
      <material name="">
        <color rgba="1 0 0 1"/>
      </material>
    </collision>
  </link>
  <!-- gazebo -->
  <gazebo reference="ramp_19">
    <static>true</static>
  </gazebo>
  <!-- fixed joint -->
  <joint name="ramp_20_joint" type="fixed">
    <origin rpy="-0.0 -0.0 1.570796326795414" xyz="5.259000000000015 2.737999999999998 0.09508599999999999"/>
    <parent link="world"/>
    <child link="ramp_20"/>
  </joint>
  <!-- link -->
  <link name="ramp_20">
    <!-- inertial -->
    <inertial>
      <origin rpy="0 0 0" xyz="0 0 0"/>
      <mass value="1"/>
      <inertia ixx="1.0" ixy="0.0" ixz="0.0" iyy="1.0" iyz="0.0" izz="1.0"/>
    </inertial>
    <!-- visual -->
    <visual>
      <origin rpy="0 0 0" xyz="0 0 0"/>
      <geometry>
        <mesh filename="package://ICRA2024_Quadruped_Competition/meshes/visual/ramp.obj"/>
      </geometry>
      <material name="">
        <color rgba="0.92 0.93 0.90 1"/>
      </material>
    </visual>
    <!-- collision -->
    <collision>
      <origin rpy="0 0 0" xyz="0 0 0"/>
      <geometry>
        <mesh filename="package://ICRA2024_Quadruped_Competition/meshes/visual/ramp.obj"/>
      </geometry>
      <material name="">
        <color rgba="1 0 0 1"/>
      </material>
    </collision>
  </link>
  <!-- gazebo -->
  <gazebo reference="ramp_20">
    <static>true</static>
  </gazebo>
  <!-- fixed joint -->
  <joint name="ramp_21_joint" type="fixed">
    <origin rpy="0.0 -0.0 -3.141592653589586" xyz="5.259000000000015 3.2879999999999976 0.09508599999999999"/>
    <parent link="world"/>
    <child link="ramp_21"/>
  </joint>
  <!-- link -->
  <link name="ramp_21">
    <!-- inertial -->
    <inertial>
      <origin rpy="0 0 0" xyz="0 0 0"/>
      <mass value="1"/>
      <inertia ixx="1.0" ixy="0.0" ixz="0.0" iyy="1.0" iyz="0.0" izz="1.0"/>
    </inertial>
    <!-- visual -->
    <visual>
      <origin rpy="0 0 0" xyz="0 0 0"/>
      <geometry>
        <mesh filename="package://ICRA2024_Quadruped_Competition/meshes/visual/ramp.obj"/>
      </geometry>
      <material name="">
        <color rgba="0.92 0.93 0.90 1"/>
      </material>
    </visual>
    <!-- collision -->
    <collision>
      <origin rpy="0 0 0" xyz="0 0 0"/>
      <geometry>
        <mesh filename="package://ICRA2024_Quadruped_Competition/meshes/visual/ramp.obj"/>
      </geometry>
      <material name="">
        <color rgba="1 0 0 1"/>
      </material>
    </collision>
  </link>
  <!-- gazebo -->
  <gazebo reference="ramp_21">
    <static>true</static>
  </gazebo>
  <!-- fixed joint -->
  <joint name="ramp_22_joint" type="fixed">
    <origin rpy="-0.0 -0.0 1.570796326795414" xyz="6.329000000000016 2.7379999999999978 0.09508599999999999"/>
    <parent link="world"/>
    <child link="ramp_22"/>
  </joint>
  <!-- link -->
  <link name="ramp_22">
    <!-- inertial -->
    <inertial>
      <origin rpy="0 0 0" xyz="0 0 0"/>
      <mass value="1"/>
      <inertia ixx="1.0" ixy="0.0" ixz="0.0" iyy="1.0" iyz="0.0" izz="1.0"/>
    </inertial>
    <!-- visual -->
    <visual>
      <origin rpy="0 0 0" xyz="0 0 0"/>
      <geometry>
        <mesh filename="package://ICRA2024_Quadruped_Competition/meshes/visual/ramp.obj"/>
      </geometry>
      <material name="">
        <color rgba="0.92 0.93 0.90 1"/>
      </material>
    </visual>
    <!-- collision -->
    <collision>
      <origin rpy="0 0 0" xyz="0 0 0"/>
      <geometry>
        <mesh filename="package://ICRA2024_Quadruped_Competition/meshes/visual/ramp.obj"/>
      </geometry>
      <material name="">
        <color rgba="1 0 0 1"/>
      </material>
    </collision>
  </link>
  <!-- gazebo -->
  <gazebo reference="ramp_22">
    <static>true</static>
  </gazebo>
  <!-- fixed joint -->
  <joint name="ramp_23_joint" type="fixed">
    <origin rpy="0.0 -0.0 -3.141592653589586" xyz="6.329000000000015 3.2879999999999976 0.09508599999999999"/>
    <parent link="world"/>
    <child link="ramp_23"/>
  </joint>
  <!-- link -->
  <link name="ramp_23">
    <!-- inertial -->
    <inertial>
      <origin rpy="0 0 0" xyz="0 0 0"/>
      <mass value="1"/>
      <inertia ixx="1.0" ixy="0.0" ixz="0.0" iyy="1.0" iyz="0.0" izz="1.0"/>
    </inertial>
    <!-- visual -->
    <visual>
      <origin rpy="0 0 0" xyz="0 0 0"/>
      <geometry>
        <mesh filename="package://ICRA2024_Quadruped_Competition/meshes/visual/ramp.obj"/>
      </geometry>
      <material name="">
        <color rgba="0.92 0.93 0.90 1"/>
      </material>
    </visual>
    <!-- collision -->
    <collision>
      <origin rpy="0 0 0" xyz="0 0 0"/>
      <geometry>
        <mesh filename="package://ICRA2024_Quadruped_Competition/meshes/visual/ramp.obj"/>
      </geometry>
      <material name="">
        <color rgba="1 0 0 1"/>
      </material>
    </collision>
  </link>
  <!-- gazebo -->
  <gazebo reference="ramp_23">
    <static>true</static>
  </gazebo>
  <!-- fixed joint -->
  <joint name="ramp_25_joint" type="fixed">
    <origin rpy="0.0 -0.0 8.272924284408579e-13" xyz="-0.07599999999998364 3.937999999999998 0.09508599999999999"/>
    <parent link="world"/>
    <child link="ramp_25"/>
  </joint>
  <!-- link -->
  <link name="ramp_25">
    <!-- inertial -->
    <inertial>
      <origin rpy="0 0 0" xyz="0 0 0"/>
      <mass value="1"/>
      <inertia ixx="1.0" ixy="0.0" ixz="0.0" iyy="1.0" iyz="0.0" izz="1.0"/>
    </inertial>
    <!-- visual -->
    <visual>
      <origin rpy="0 0 0" xyz="0 0 0"/>
      <geometry>
        <mesh filename="package://ICRA2024_Quadruped_Competition/meshes/visual/ramp.obj"/>
      </geometry>
      <material name="">
        <color rgba="0.92 0.93 0.90 1"/>
      </material>
    </visual>
    <!-- collision -->
    <collision>
      <origin rpy="0 0 0" xyz="0 0 0"/>
      <geometry>
        <mesh filename="package://ICRA2024_Quadruped_Competition/meshes/visual/ramp.obj"/>
      </geometry>
      <material name="">
        <color rgba="1 0 0 1"/>
      </material>
    </collision>
  </link>
  <!-- gazebo -->
  <gazebo reference="ramp_25">
    <static>true</static>
  </gazebo>
  <!-- fixed joint -->
  <joint name="ramp_26_joint" type="fixed">
    <origin rpy="0.0 -0.0 -1.5707963267937588" xyz="-0.07600000000021216 4.487999999999998 0.09508599999999999"/>
    <parent link="world"/>
    <child link="ramp_26"/>
  </joint>
  <!-- link -->
  <link name="ramp_26">
    <!-- inertial -->
    <inertial>
      <origin rpy="0 0 0" xyz="0 0 0"/>
      <mass value="1"/>
      <inertia ixx="1.0" ixy="0.0" ixz="0.0" iyy="1.0" iyz="0.0" izz="1.0"/>
    </inertial>
    <!-- visual -->
    <visual>
      <origin rpy="0 0 0" xyz="0 0 0"/>
      <geometry>
        <mesh filename="package://ICRA2024_Quadruped_Competition/meshes/visual/ramp.obj"/>
      </geometry>
      <material name="">
        <color rgba="0.92 0.93 0.90 1"/>
      </material>
    </visual>
    <!-- collision -->
    <collision>
      <origin rpy="0 0 0" xyz="0 0 0"/>
      <geometry>
        <mesh filename="package://ICRA2024_Quadruped_Competition/meshes/visual/ramp.obj"/>
      </geometry>
      <material name="">
        <color rgba="1 0 0 1"/>
      </material>
    </collision>
  </link>
  <!-- gazebo -->
  <gazebo reference="ramp_26">
    <static>true</static>
  </gazebo>
  <!-- fixed joint -->
  <joint name="ramp_27_joint" type="fixed">
    <origin rpy="0.0 -0.0 8.272924284408579e-13" xyz="0.9940000000000158 3.9379999999999975 0.09508599999999999"/>
    <parent link="world"/>
    <child link="ramp_27"/>
  </joint>
  <!-- link -->
  <link name="ramp_27">
    <!-- inertial -->
    <inertial>
      <origin rpy="0 0 0" xyz="0 0 0"/>
      <mass value="1"/>
      <inertia ixx="1.0" ixy="0.0" ixz="0.0" iyy="1.0" iyz="0.0" izz="1.0"/>
    </inertial>
    <!-- visual -->
    <visual>
      <origin rpy="0 0 0" xyz="0 0 0"/>
      <geometry>
        <mesh filename="package://ICRA2024_Quadruped_Competition/meshes/visual/ramp.obj"/>
      </geometry>
      <material name="">
        <color rgba="0.92 0.93 0.90 1"/>
      </material>
    </visual>
    <!-- collision -->
    <collision>
      <origin rpy="0 0 0" xyz="0 0 0"/>
      <geometry>
        <mesh filename="package://ICRA2024_Quadruped_Competition/meshes/visual/ramp.obj"/>
      </geometry>
      <material name="">
        <color rgba="1 0 0 1"/>
      </material>
    </collision>
  </link>
  <!-- gazebo -->
  <gazebo reference="ramp_27">
    <static>true</static>
  </gazebo>
  <!-- fixed joint -->
  <joint name="ramp_28_joint" type="fixed">
    <origin rpy="0.0 0.0 -1.5707963267941727" xyz="0.9939999999997879 4.487999999999998 0.09508599999999999"/>
    <parent link="world"/>
    <child link="ramp_28"/>
  </joint>
  <!-- link -->
  <link name="ramp_28">
    <!-- inertial -->
    <inertial>
      <origin rpy="0 0 0" xyz="0 0 0"/>
      <mass value="1"/>
      <inertia ixx="1.0" ixy="0.0" ixz="0.0" iyy="1.0" iyz="0.0" izz="1.0"/>
    </inertial>
    <!-- visual -->
    <visual>
      <origin rpy="0 0 0" xyz="0 0 0"/>
      <geometry>
        <mesh filename="package://ICRA2024_Quadruped_Competition/meshes/visual/ramp.obj"/>
      </geometry>
      <material name="">
        <color rgba="0.92 0.93 0.90 1"/>
      </material>
    </visual>
    <!-- collision -->
    <collision>
      <origin rpy="0 0 0" xyz="0 0 0"/>
      <geometry>
        <mesh filename="package://ICRA2024_Quadruped_Competition/meshes/visual/ramp.obj"/>
      </geometry>
      <material name="">
        <color rgba="1 0 0 1"/>
      </material>
    </collision>
  </link>
  <!-- gazebo -->
  <gazebo reference="ramp_28">
    <static>true</static>
  </gazebo>
  <!-- fixed joint -->
  <joint name="ramp_29_joint" type="fixed">
    <origin rpy="-0.0 -0.0 1.570796326795414" xyz="0.4590000000000156 3.9379999999999984 0.09508599999999999"/>
    <parent link="world"/>
    <child link="ramp_29"/>
  </joint>
  <!-- link -->
  <link name="ramp_29">
    <!-- inertial -->
    <inertial>
      <origin rpy="0 0 0" xyz="0 0 0"/>
      <mass value="1"/>
      <inertia ixx="1.0" ixy="0.0" ixz="0.0" iyy="1.0" iyz="0.0" izz="1.0"/>
    </inertial>
    <!-- visual -->
    <visual>
      <origin rpy="0 0 0" xyz="0 0 0"/>
      <geometry>
        <mesh filename="package://ICRA2024_Quadruped_Competition/meshes/visual/ramp.obj"/>
      </geometry>
      <material name="">
        <color rgba="0.92 0.93 0.90 1"/>
      </material>
    </visual>
    <!-- collision -->
    <collision>
      <origin rpy="0 0 0" xyz="0 0 0"/>
      <geometry>
        <mesh filename="package://ICRA2024_Quadruped_Competition/meshes/visual/ramp.obj"/>
      </geometry>
      <material name="">
        <color rgba="1 0 0 1"/>
      </material>
    </collision>
  </link>
  <!-- gazebo -->
  <gazebo reference="ramp_29">
    <static>true</static>
  </gazebo>
  <!-- fixed joint -->
  <joint name="ramp_30_joint" type="fixed">
    <origin rpy="0.0 -0.0 -3.141592653589586" xyz="0.4590000000000154 4.487999999999998 0.09508599999999999"/>
    <parent link="world"/>
    <child link="ramp_30"/>
  </joint>
  <!-- link -->
  <link name="ramp_30">
    <!-- inertial -->
    <inertial>
      <origin rpy="0 0 0" xyz="0 0 0"/>
      <mass value="1"/>
      <inertia ixx="1.0" ixy="0.0" ixz="0.0" iyy="1.0" iyz="0.0" izz="1.0"/>
    </inertial>
    <!-- visual -->
    <visual>
      <origin rpy="0 0 0" xyz="0 0 0"/>
      <geometry>
        <mesh filename="package://ICRA2024_Quadruped_Competition/meshes/visual/ramp.obj"/>
      </geometry>
      <material name="">
        <color rgba="0.92 0.93 0.90 1"/>
      </material>
    </visual>
    <!-- collision -->
    <collision>
      <origin rpy="0 0 0" xyz="0 0 0"/>
      <geometry>
        <mesh filename="package://ICRA2024_Quadruped_Competition/meshes/visual/ramp.obj"/>
      </geometry>
      <material name="">
        <color rgba="1 0 0 1"/>
      </material>
    </collision>
  </link>
  <!-- gazebo -->
  <gazebo reference="ramp_30">
    <static>true</static>
  </gazebo>
  <!-- fixed joint -->
  <joint name="ramp_31_joint" type="fixed">
    <origin rpy="-0.0 -0.0 1.570796326795414" xyz="1.529000000000016 3.937999999999998 0.09508599999999999"/>
    <parent link="world"/>
    <child link="ramp_31"/>
  </joint>
  <!-- link -->
  <link name="ramp_31">
    <!-- inertial -->
    <inertial>
      <origin rpy="0 0 0" xyz="0 0 0"/>
      <mass value="1"/>
      <inertia ixx="1.0" ixy="0.0" ixz="0.0" iyy="1.0" iyz="0.0" izz="1.0"/>
    </inertial>
    <!-- visual -->
    <visual>
      <origin rpy="0 0 0" xyz="0 0 0"/>
      <geometry>
        <mesh filename="package://ICRA2024_Quadruped_Competition/meshes/visual/ramp.obj"/>
      </geometry>
      <material name="">
        <color rgba="0.92 0.93 0.90 1"/>
      </material>
    </visual>
    <!-- collision -->
    <collision>
      <origin rpy="0 0 0" xyz="0 0 0"/>
      <geometry>
        <mesh filename="package://ICRA2024_Quadruped_Competition/meshes/visual/ramp.obj"/>
      </geometry>
      <material name="">
        <color rgba="1 0 0 1"/>
      </material>
    </collision>
  </link>
  <!-- gazebo -->
  <gazebo reference="ramp_31">
    <static>true</static>
  </gazebo>
  <!-- fixed joint -->
  <joint name="ramp_32_joint" type="fixed">
    <origin rpy="0.0 -0.0 -3.141592653589586" xyz="1.5290000000000155 4.487999999999998 0.09508599999999999"/>
    <parent link="world"/>
    <child link="ramp_32"/>
  </joint>
  <!-- link -->
  <link name="ramp_32">
    <!-- inertial -->
    <inertial>
      <origin rpy="0 0 0" xyz="0 0 0"/>
      <mass value="1"/>
      <inertia ixx="1.0" ixy="0.0" ixz="0.0" iyy="1.0" iyz="0.0" izz="1.0"/>
    </inertial>
    <!-- visual -->
    <visual>
      <origin rpy="0 0 0" xyz="0 0 0"/>
      <geometry>
        <mesh filename="package://ICRA2024_Quadruped_Competition/meshes/visual/ramp.obj"/>
      </geometry>
      <material name="">
        <color rgba="0.92 0.93 0.90 1"/>
      </material>
    </visual>
    <!-- collision -->
    <collision>
      <origin rpy="0 0 0" xyz="0 0 0"/>
      <geometry>
        <mesh filename="package://ICRA2024_Quadruped_Competition/meshes/visual/ramp.obj"/>
      </geometry>
      <material name="">
        <color rgba="1 0 0 1"/>
      </material>
    </collision>
  </link>
  <!-- gazebo -->
  <gazebo reference="ramp_32">
    <static>true</static>
  </gazebo>
  <!-- fixed joint -->
  <joint name="ramp_53_joint" type="fixed">
    <origin rpy="-2.4576769550962976e-13 -0.2939134460358645 8.330325671018752e-13" xyz="2.280201105663343 3.9379999999999864 0.20080479595471695"/>
    <parent link="world"/>
    <child link="ramp_53"/>
  </joint>
  <!-- link -->
  <link name="ramp_53">
    <!-- inertial -->
    <inertial>
      <origin rpy="0 0 0" xyz="0 0 0"/>
      <mass value="1"/>
      <inertia ixx="1.0" ixy="0.0" ixz="0.0" iyy="1.0" iyz="0.0" izz="1.0"/>
    </inertial>
    <!-- visual -->
    <visual>
      <origin rpy="0 0 0" xyz="0 0 0"/>
      <geometry>
        <mesh filename="package://ICRA2024_Quadruped_Competition/meshes/visual/ramp.obj"/>
      </geometry>
      <material name="">
        <color rgba="0.92 0.93 0.90 1"/>
      </material>
    </visual>
    <!-- collision -->
    <collision>
      <origin rpy="0 0 0" xyz="0 0 0"/>
      <geometry>
        <mesh filename="package://ICRA2024_Quadruped_Competition/meshes/visual/ramp.obj"/>
      </geometry>
      <material name="">
        <color rgba="1 0 0 1"/>
      </material>
    </collision>
  </link>
  <!-- gazebo -->
  <gazebo reference="ramp_53">
    <static>true</static>
  </gazebo>
  <!-- fixed joint -->
  <joint name="ramp_54_joint" type="fixed">
    <origin rpy="0.2939134460358645 -3.2515656833709257e-13 -1.5707963267938378" xyz="2.280201105663141 4.487999999999986 0.2008047959546532"/>
    <parent link="world"/>
    <child link="ramp_54"/>
  </joint>
  <!-- link -->
  <link name="ramp_54">
    <!-- inertial -->
    <inertial>
      <origin rpy="0 0 0" xyz="0 0 0"/>
      <mass value="1"/>
      <inertia ixx="1.0" ixy="0.0" ixz="0.0" iyy="1.0" iyz="0.0" izz="1.0"/>
    </inertial>
    <!-- visual -->
    <visual>
      <origin rpy="0 0 0" xyz="0 0 0"/>
      <geometry>
        <mesh filename="package://ICRA2024_Quadruped_Competition/meshes/visual/ramp.obj"/>
      </geometry>
      <material name="">
        <color rgba="0.92 0.93 0.90 1"/>
      </material>
    </visual>
    <!-- collision -->
    <collision>
      <origin rpy="0 0 0" xyz="0 0 0"/>
      <geometry>
        <mesh filename="package://ICRA2024_Quadruped_Competition/meshes/visual/ramp.obj"/>
      </geometry>
      <material name="">
        <color rgba="1 0 0 1"/>
      </material>
    </collision>
  </link>
  <!-- gazebo -->
  <gazebo reference="ramp_54">
    <static>true</static>
  </gazebo>
  <!-- fixed joint -->
  <joint name="ramp_55_joint" type="fixed">
    <origin rpy="-2.4576769550962976e-13 -0.2939134460358645 8.330325671018752e-13" xyz="3.3043168113985493 3.937999999999954 0.5107838618067175"/>
    <parent link="world"/>
    <child link="ramp_55"/>
  </joint>
  <!-- link -->
  <link name="ramp_55">
    <!-- inertial -->
    <inertial>
      <origin rpy="0 0 0" xyz="0 0 0"/>
      <mass value="1"/>
      <inertia ixx="1.0" ixy="0.0" ixz="0.0" iyy="1.0" iyz="0.0" izz="1.0"/>
    </inertial>
    <!-- visual -->
    <visual>
      <origin rpy="0 0 0" xyz="0 0 0"/>
      <geometry>
        <mesh filename="package://ICRA2024_Quadruped_Competition/meshes/visual/ramp.obj"/>
      </geometry>
      <material name="">
        <color rgba="0.92 0.93 0.90 1"/>
      </material>
    </visual>
    <!-- collision -->
    <collision>
      <origin rpy="0 0 0" xyz="0 0 0"/>
      <geometry>
        <mesh filename="package://ICRA2024_Quadruped_Competition/meshes/visual/ramp.obj"/>
      </geometry>
      <material name="">
        <color rgba="1 0 0 1"/>
      </material>
    </collision>
  </link>
  <!-- gazebo -->
  <gazebo reference="ramp_55">
    <static>true</static>
  </gazebo>
  <!-- fixed joint -->
  <joint name="ramp_56_joint" type="fixed">
    <origin rpy="0.29391344603586445 -2.0528023725319144e-13 -1.5707963267942335" xyz="3.304316811398348 4.487999999999954 0.510783861806654"/>
    <parent link="world"/>
    <child link="ramp_56"/>
  </joint>
  <!-- link -->
  <link name="ramp_56">
    <!-- inertial -->
    <inertial>
      <origin rpy="0 0 0" xyz="0 0 0"/>
      <mass value="1"/>
      <inertia ixx="1.0" ixy="0.0" ixz="0.0" iyy="1.0" iyz="0.0" izz="1.0"/>
    </inertial>
    <!-- visual -->
    <visual>
      <origin rpy="0 0 0" xyz="0 0 0"/>
      <geometry>
        <mesh filename="package://ICRA2024_Quadruped_Competition/meshes/visual/ramp.obj"/>
      </geometry>
      <material name="">
        <color rgba="0.92 0.93 0.90 1"/>
      </material>
    </visual>
    <!-- collision -->
    <collision>
      <origin rpy="0 0 0" xyz="0 0 0"/>
      <geometry>
        <mesh filename="package://ICRA2024_Quadruped_Competition/meshes/visual/ramp.obj"/>
      </geometry>
      <material name="">
        <color rgba="1 0 0 1"/>
      </material>
    </collision>
  </link>
  <!-- gazebo -->
  <gazebo reference="ramp_56">
    <static>true</static>
  </gazebo>
  <!-- fixed joint -->
  <joint name="ramp_57_joint" type="fixed">
    <origin rpy="-0.2939134460358645 1.4538370507466422e-13 1.570796326795362" xyz="2.7922589585309456 3.937999999999971 0.35579432888071716"/>
    <parent link="world"/>
    <child link="ramp_57"/>
  </joint>
  <!-- link -->
  <link name="ramp_57">
    <!-- inertial -->
    <inertial>
      <origin rpy="0 0 0" xyz="0 0 0"/>
      <mass value="1"/>
      <inertia ixx="1.0" ixy="0.0" ixz="0.0" iyy="1.0" iyz="0.0" izz="1.0"/>
    </inertial>
    <!-- visual -->
    <visual>
      <origin rpy="0 0 0" xyz="0 0 0"/>
      <geometry>
        <mesh filename="package://ICRA2024_Quadruped_Competition/meshes/visual/ramp.obj"/>
      </geometry>
      <material name="">
        <color rgba="0.92 0.93 0.90 1"/>
      </material>
    </visual>
    <!-- collision -->
    <collision>
      <origin rpy="0 0 0" xyz="0 0 0"/>
      <geometry>
        <mesh filename="package://ICRA2024_Quadruped_Competition/meshes/visual/ramp.obj"/>
      </geometry>
      <material name="">
        <color rgba="1 0 0 1"/>
      </material>
    </collision>
  </link>
  <!-- gazebo -->
  <gazebo reference="ramp_57">
    <static>true</static>
  </gazebo>
  <!-- fixed joint -->
  <joint name="ramp_58_joint" type="fixed">
    <origin rpy="5.800127609828917e-14 0.29391344603586445 -3.1415926535896084" xyz="2.792258958530962 4.48799999999997 0.3557943288807195"/>
    <parent link="world"/>
    <child link="ramp_58"/>
  </joint>
  <!-- link -->
  <link name="ramp_58">
    <!-- inertial -->
    <inertial>
      <origin rpy="0 0 0" xyz="0 0 0"/>
      <mass value="1"/>
      <inertia ixx="1.0" ixy="0.0" ixz="0.0" iyy="1.0" iyz="0.0" izz="1.0"/>
    </inertial>
    <!-- visual -->
    <visual>
      <origin rpy="0 0 0" xyz="0 0 0"/>
      <geometry>
        <mesh filename="package://ICRA2024_Quadruped_Competition/meshes/visual/ramp.obj"/>
      </geometry>
      <material name="">
        <color rgba="0.92 0.93 0.90 1"/>
      </material>
    </visual>
    <!-- collision -->
    <collision>
      <origin rpy="0 0 0" xyz="0 0 0"/>
      <geometry>
        <mesh filename="package://ICRA2024_Quadruped_Competition/meshes/visual/ramp.obj"/>
      </geometry>
      <material name="">
        <color rgba="1 0 0 1"/>
      </material>
    </collision>
  </link>
  <!-- gazebo -->
  <gazebo reference="ramp_58">
    <static>true</static>
  </gazebo>
  <!-- fixed joint -->
  <joint name="ramp_59_joint" type="fixed">
    <origin rpy="-0.2939134460358645 1.4538370507466422e-13 1.570796326795362" xyz="3.816374664266153 3.9379999999999384 0.665773394732718"/>
    <parent link="world"/>
    <child link="ramp_59"/>
  </joint>
  <!-- link -->
  <link name="ramp_59">
    <!-- inertial -->
    <inertial>
      <origin rpy="0 0 0" xyz="0 0 0"/>
      <mass value="1"/>
      <inertia ixx="1.0" ixy="0.0" ixz="0.0" iyy="1.0" iyz="0.0" izz="1.0"/>
    </inertial>
    <!-- visual -->
    <visual>
      <origin rpy="0 0 0" xyz="0 0 0"/>
      <geometry>
        <mesh filename="package://ICRA2024_Quadruped_Competition/meshes/visual/ramp.obj"/>
      </geometry>
      <material name="">
        <color rgba="0.92 0.93 0.90 1"/>
      </material>
    </visual>
    <!-- collision -->
    <collision>
      <origin rpy="0 0 0" xyz="0 0 0"/>
      <geometry>
        <mesh filename="package://ICRA2024_Quadruped_Competition/meshes/visual/ramp.obj"/>
      </geometry>
      <material name="">
        <color rgba="1 0 0 1"/>
      </material>
    </collision>
  </link>
  <!-- gazebo -->
  <gazebo reference="ramp_59">
    <static>true</static>
  </gazebo>
  <!-- fixed joint -->
  <joint name="ramp_60_joint" type="fixed">
    <origin rpy="5.800127609828917e-14 0.29391344603586445 -3.1415926535896084" xyz="3.81637466426617 4.487999999999938 0.6657733947327205"/>
    <parent link="world"/>
    <child link="ramp_60"/>
  </joint>
  <!-- link -->
  <link name="ramp_60">
    <!-- inertial -->
    <inertial>
      <origin rpy="0 0 0" xyz="0 0 0"/>
      <mass value="1"/>
      <inertia ixx="1.0" ixy="0.0" ixz="0.0" iyy="1.0" iyz="0.0" izz="1.0"/>
    </inertial>
    <!-- visual -->
    <visual>
      <origin rpy="0 0 0" xyz="0 0 0"/>
      <geometry>
        <mesh filename="package://ICRA2024_Quadruped_Competition/meshes/visual/ramp.obj"/>
      </geometry>
      <material name="">
        <color rgba="0.92 0.93 0.90 1"/>
      </material>
    </visual>
    <!-- collision -->
    <collision>
      <origin rpy="0 0 0" xyz="0 0 0"/>
      <geometry>
        <mesh filename="package://ICRA2024_Quadruped_Competition/meshes/visual/ramp.obj"/>
      </geometry>
      <material name="">
        <color rgba="1 0 0 1"/>
      </material>
    </collision>
  </link>
  <!-- gazebo -->
  <gazebo reference="ramp_60">
    <static>true</static>
  </gazebo>
  <!-- fixed joint -->
  <joint name="ramp_67_joint" type="fixed">
    <origin rpy="2.550416031241239e-13 0.2939134460358645 8.9568400950064e-13" xyz="2.4382119889780403 2.737999999999938 0.6764922975367552"/>
    <parent link="world"/>
    <child link="ramp_67"/>
  </joint>
  <!-- link -->
  <link name="ramp_67">
    <!-- inertial -->
    <inertial>
      <origin rpy="0 0 0" xyz="0 0 0"/>
      <mass value="1"/>
      <inertia ixx="1.0" ixy="0.0" ixz="0.0" iyy="1.0" iyz="0.0" izz="1.0"/>
    </inertial>
    <!-- visual -->
    <visual>
      <origin rpy="0 0 0" xyz="0 0 0"/>
      <geometry>
        <mesh filename="package://ICRA2024_Quadruped_Competition/meshes/visual/ramp.obj"/>
      </geometry>
      <material name="">
        <color rgba="0.92 0.93 0.90 1"/>
      </material>
    </visual>
    <!-- collision -->
    <collision>
      <origin rpy="0 0 0" xyz="0 0 0"/>
      <geometry>
        <mesh filename="package://ICRA2024_Quadruped_Competition/meshes/visual/ramp.obj"/>
      </geometry>
      <material name="">
        <color rgba="1 0 0 1"/>
      </material>
    </collision>
  </link>
  <!-- gazebo -->
  <gazebo reference="ramp_67">
    <static>true</static>
  </gazebo>
  <!-- fixed joint -->
  <joint name="ramp_68_joint" type="fixed">
    <origin rpy="-0.2939134460358645 3.340383525340938e-13 -1.570796326793778" xyz="2.438211988977805 3.287999999999938 0.6764922975368238"/>
    <parent link="world"/>
    <child link="ramp_68"/>
  </joint>
  <!-- link -->
  <link name="ramp_68">
    <!-- inertial -->
    <inertial>
      <origin rpy="0 0 0" xyz="0 0 0"/>
      <mass value="1"/>
      <inertia ixx="1.0" ixy="0.0" ixz="0.0" iyy="1.0" iyz="0.0" izz="1.0"/>
    </inertial>
    <!-- visual -->
    <visual>
      <origin rpy="0 0 0" xyz="0 0 0"/>
      <geometry>
        <mesh filename="package://ICRA2024_Quadruped_Competition/meshes/visual/ramp.obj"/>
      </geometry>
      <material name="">
        <color rgba="0.92 0.93 0.90 1"/>
      </material>
    </visual>
    <!-- collision -->
    <collision>
      <origin rpy="0 0 0" xyz="0 0 0"/>
      <geometry>
        <mesh filename="package://ICRA2024_Quadruped_Competition/meshes/visual/ramp.obj"/>
      </geometry>
      <material name="">
        <color rgba="1 0 0 1"/>
      </material>
    </collision>
  </link>
  <!-- gazebo -->
  <gazebo reference="ramp_68">
    <static>true</static>
  </gazebo>
  <!-- fixed joint -->
  <joint name="ramp_69_joint" type="fixed">
    <origin rpy="2.550416031241239e-13 0.2939134460358645 8.9568400950064e-13" xyz="3.462327694713247 2.73799999999997 0.3665132316847545"/>
    <parent link="world"/>
    <child link="ramp_69"/>
  </joint>
  <!-- link -->
  <link name="ramp_69">
    <!-- inertial -->
    <inertial>
      <origin rpy="0 0 0" xyz="0 0 0"/>
      <mass value="1"/>
      <inertia ixx="1.0" ixy="0.0" ixz="0.0" iyy="1.0" iyz="0.0" izz="1.0"/>
    </inertial>
    <!-- visual -->
    <visual>
      <origin rpy="0 0 0" xyz="0 0 0"/>
      <geometry>
        <mesh filename="package://ICRA2024_Quadruped_Competition/meshes/visual/ramp.obj"/>
      </geometry>
      <material name="">
        <color rgba="0.92 0.93 0.90 1"/>
      </material>
    </visual>
    <!-- collision -->
    <collision>
      <origin rpy="0 0 0" xyz="0 0 0"/>
      <geometry>
        <mesh filename="package://ICRA2024_Quadruped_Competition/meshes/visual/ramp.obj"/>
      </geometry>
      <material name="">
        <color rgba="1 0 0 1"/>
      </material>
    </collision>
  </link>
  <!-- gazebo -->
  <gazebo reference="ramp_69">
    <static>true</static>
  </gazebo>
  <!-- fixed joint -->
  <joint name="ramp_70_joint" type="fixed">
    <origin rpy="-0.29391344603586445 2.141620214501927e-13 -1.5707963267941736" xyz="3.4623276947130126 3.2879999999999696 0.36651323168482297"/>
    <parent link="world"/>
    <child link="ramp_70"/>
  </joint>
  <!-- link -->
  <link name="ramp_70">
    <!-- inertial -->
    <inertial>
      <origin rpy="0 0 0" xyz="0 0 0"/>
      <mass value="1"/>
      <inertia ixx="1.0" ixy="0.0" ixz="0.0" iyy="1.0" iyz="0.0" izz="1.0"/>
    </inertial>
    <!-- visual -->
    <visual>
      <origin rpy="0 0 0" xyz="0 0 0"/>
      <geometry>
        <mesh filename="package://ICRA2024_Quadruped_Competition/meshes/visual/ramp.obj"/>
      </geometry>
      <material name="">
        <color rgba="0.92 0.93 0.90 1"/>
      </material>
    </visual>
    <!-- collision -->
    <collision>
      <origin rpy="0 0 0" xyz="0 0 0"/>
      <geometry>
        <mesh filename="package://ICRA2024_Quadruped_Competition/meshes/visual/ramp.obj"/>
      </geometry>
      <material name="">
        <color rgba="1 0 0 1"/>
      </material>
    </collision>
  </link>
  <!-- gazebo -->
  <gazebo reference="ramp_70">
    <static>true</static>
  </gazebo>
  <!-- fixed joint -->
  <joint name="ramp_71_joint" type="fixed">
    <origin rpy="0.2939134460358645 -1.542377336960498e-13 1.570796326795422" xyz="2.950269841845643 2.7379999999999542 0.5215027646107551"/>
    <parent link="world"/>
    <child link="ramp_71"/>
  </joint>
  <!-- link -->
  <link name="ramp_71">
    <!-- inertial -->
    <inertial>
      <origin rpy="0 0 0" xyz="0 0 0"/>
      <mass value="1"/>
      <inertia ixx="1.0" ixy="0.0" ixz="0.0" iyy="1.0" iyz="0.0" izz="1.0"/>
    </inertial>
    <!-- visual -->
    <visual>
      <origin rpy="0 0 0" xyz="0 0 0"/>
      <geometry>
        <mesh filename="package://ICRA2024_Quadruped_Competition/meshes/visual/ramp.obj"/>
      </geometry>
      <material name="">
        <color rgba="0.92 0.93 0.90 1"/>
      </material>
    </visual>
    <!-- collision -->
    <collision>
      <origin rpy="0 0 0" xyz="0 0 0"/>
      <geometry>
        <mesh filename="package://ICRA2024_Quadruped_Competition/meshes/visual/ramp.obj"/>
      </geometry>
      <material name="">
        <color rgba="1 0 0 1"/>
      </material>
    </collision>
  </link>
  <!-- gazebo -->
  <gazebo reference="ramp_71">
    <static>true</static>
  </gazebo>
  <!-- fixed joint -->
  <joint name="ramp_72_joint" type="fixed">
    <origin rpy="-6.727518371278333e-14 -0.29391344603586445 -3.1415926535895458" xyz="2.9502698418456266 3.287999999999954 0.5215027646107575"/>
    <parent link="world"/>
    <child link="ramp_72"/>
  </joint>
  <!-- link -->
  <link name="ramp_72">
    <!-- inertial -->
    <inertial>
      <origin rpy="0 0 0" xyz="0 0 0"/>
      <mass value="1"/>
      <inertia ixx="1.0" ixy="0.0" ixz="0.0" iyy="1.0" iyz="0.0" izz="1.0"/>
    </inertial>
    <!-- visual -->
    <visual>
      <origin rpy="0 0 0" xyz="0 0 0"/>
      <geometry>
        <mesh filename="package://ICRA2024_Quadruped_Competition/meshes/visual/ramp.obj"/>
      </geometry>
      <material name="">
        <color rgba="0.92 0.93 0.90 1"/>
      </material>
    </visual>
    <!-- collision -->
    <collision>
      <origin rpy="0 0 0" xyz="0 0 0"/>
      <geometry>
        <mesh filename="package://ICRA2024_Quadruped_Competition/meshes/visual/ramp.obj"/>
      </geometry>
      <material name="">
        <color rgba="1 0 0 1"/>
      </material>
    </collision>
  </link>
  <!-- gazebo -->
  <gazebo reference="ramp_72">
    <static>true</static>
  </gazebo>
  <!-- fixed joint -->
  <joint name="ramp_73_joint" type="fixed">
    <origin rpy="0.2939134460358645 -1.542377336960498e-13 1.570796326795422" xyz="3.9743855475808507 2.737999999999986 0.2115236987587541"/>
    <parent link="world"/>
    <child link="ramp_73"/>
  </joint>
  <!-- link -->
  <link name="ramp_73">
    <!-- inertial -->
    <inertial>
      <origin rpy="0 0 0" xyz="0 0 0"/>
      <mass value="1"/>
      <inertia ixx="1.0" ixy="0.0" ixz="0.0" iyy="1.0" iyz="0.0" izz="1.0"/>
    </inertial>
    <!-- visual -->
    <visual>
      <origin rpy="0 0 0" xyz="0 0 0"/>
      <geometry>
        <mesh filename="package://ICRA2024_Quadruped_Competition/meshes/visual/ramp.obj"/>
      </geometry>
      <material name="">
        <color rgba="0.92 0.93 0.90 1"/>
      </material>
    </visual>
    <!-- collision -->
    <collision>
      <origin rpy="0 0 0" xyz="0 0 0"/>
      <geometry>
        <mesh filename="package://ICRA2024_Quadruped_Competition/meshes/visual/ramp.obj"/>
      </geometry>
      <material name="">
        <color rgba="1 0 0 1"/>
      </material>
    </collision>
  </link>
  <!-- gazebo -->
  <gazebo reference="ramp_73">
    <static>true</static>
  </gazebo>
  <!-- fixed joint -->
  <joint name="ramp_74_joint" type="fixed">
    <origin rpy="-6.727518371278333e-14 -0.29391344603586445 -3.1415926535895458" xyz="3.974385547580834 3.287999999999986 0.2115236987587566"/>
    <parent link="world"/>
    <child link="ramp_74"/>
  </joint>
  <!-- link -->
  <link name="ramp_74">
    <!-- inertial -->
    <inertial>
      <origin rpy="0 0 0" xyz="0 0 0"/>
      <mass value="1"/>
      <inertia ixx="1.0" ixy="0.0" ixz="0.0" iyy="1.0" iyz="0.0" izz="1.0"/>
    </inertial>
    <!-- visual -->
    <visual>
      <origin rpy="0 0 0" xyz="0 0 0"/>
      <geometry>
        <mesh filename="package://ICRA2024_Quadruped_Competition/meshes/visual/ramp.obj"/>
      </geometry>
      <material name="">
        <color rgba="0.92 0.93 0.90 1"/>
      </material>
    </visual>
    <!-- collision -->
    <collision>
      <origin rpy="0 0 0" xyz="0 0 0"/>
      <geometry>
        <mesh filename="package://ICRA2024_Quadruped_Competition/meshes/visual/ramp.obj"/>
      </geometry>
      <material name="">
        <color rgba="1 0 0 1"/>
      </material>
    </collision>
  </link>
  <!-- gazebo -->
  <gazebo reference="ramp_74">
    <static>true</static>
  </gazebo>
  <!-- fixed joint -->
  <joint name="stepover_1_110_joint" type="fixed">
    <origin rpy="0.0 -0.0 0.0" xyz="-5.122999999090575 4.211500000000003 0.161"/>
    <parent link="world"/>
    <child link="stepover_1_110"/>
  </joint>
  <!-- link -->
  <link name="stepover_1_110">
    <!-- inertial -->
    <inertial>
      <origin rpy="0 0 0" xyz="0 0 0"/>
      <mass value="1"/>
      <inertia ixx="1.0" ixy="0.0" ixz="0.0" iyy="1.0" iyz="0.0" izz="1.0"/>
    </inertial>
    <!-- visual -->
    <visual>
      <origin rpy="0 0 0" xyz="0 0 0"/>
      <geometry>
        <mesh filename="package://ICRA2024_Quadruped_Competition/meshes/visual/stepover_1.obj"/>
      </geometry>
      <material name="">
        <color rgba="0.92 0.93 0.90 1"/>
      </material>
    </visual>
    <!-- collision -->
    <collision>
      <origin rpy="0 0 0" xyz="0 0 0"/>
      <geometry>
        <mesh filename="package://ICRA2024_Quadruped_Competition/meshes/visual/stepover_1.obj"/>
      </geometry>
      <material name="">
        <color rgba="1 0 0 1"/>
      </material>
    </collision>
  </link>
  <!-- gazebo -->
  <gazebo reference="stepover_1_110">
    <static>true</static>
  </gazebo>
  <!-- fixed joint -->
  <joint name="stepover_1_111_joint" type="fixed">
    <origin rpy="0.0 -0.0 0.0" xyz="-0.322999999090575 3.011500000000003 0.161"/>
    <parent link="world"/>
    <child link="stepover_1_111"/>
  </joint>
  <!-- link -->
  <link name="stepover_1_111">
    <!-- inertial -->
    <inertial>
      <origin rpy="0 0 0" xyz="0 0 0"/>
      <mass value="1"/>
      <inertia ixx="1.0" ixy="0.0" ixz="0.0" iyy="1.0" iyz="0.0" izz="1.0"/>
    </inertial>
    <!-- visual -->
    <visual>
      <origin rpy="0 0 0" xyz="0 0 0"/>
      <geometry>
        <mesh filename="package://ICRA2024_Quadruped_Competition/meshes/visual/stepover_1.obj"/>
      </geometry>
      <material name="">
        <color rgba="0.92 0.93 0.90 1"/>
      </material>
    </visual>
    <!-- collision -->
    <collision>
      <origin rpy="0 0 0" xyz="0 0 0"/>
      <geometry>
        <mesh filename="package://ICRA2024_Quadruped_Competition/meshes/visual/stepover_1.obj"/>
      </geometry>
      <material name="">
        <color rgba="1 0 0 1"/>
      </material>
    </collision>
  </link>
  <!-- gazebo -->
  <gazebo reference="stepover_1_111">
    <static>true</static>
  </gazebo>
  <!-- fixed joint -->
  <joint name="stepover_2_117_joint" type="fixed">
    <origin rpy="4.636953807247085e-15 -0.2939134460358645 -3.132572119938244e-14" xyz="-2.821100730604522 4.211499999999967 0.5017359884539903"/>
    <parent link="world"/>
    <child link="stepover_2_117"/>
  </joint>
  <!-- link -->
  <link name="stepover_2_117">
    <!-- inertial -->
    <inertial>
      <origin rpy="0 0 0" xyz="0 0 0"/>
      <mass value="1"/>
      <inertia ixx="1.0" ixy="0.0" ixz="0.0" iyy="1.0" iyz="0.0" izz="1.0"/>
    </inertial>
    <!-- visual -->
    <visual>
      <origin rpy="0 0 0" xyz="0 0 0"/>
      <geometry>
        <mesh filename="package://ICRA2024_Quadruped_Competition/meshes/visual/stepover_2.obj"/>
      </geometry>
      <material name="">
        <color rgba="0.92 0.93 0.90 1"/>
      </material>
    </visual>
    <!-- collision -->
    <collision>
      <origin rpy="0 0 0" xyz="0 0 0"/>
      <geometry>
        <mesh filename="package://ICRA2024_Quadruped_Competition/meshes/visual/stepover_2.obj"/>
      </geometry>
      <material name="">
        <color rgba="1 0 0 1"/>
      </material>
    </collision>
  </link>
  <!-- gazebo -->
  <gazebo reference="stepover_2_117">
    <static>true</static>
  </gazebo>
  <!-- fixed joint -->
  <joint name="stepover_2_123_joint" type="fixed">
    <origin rpy="4.636953807247085e-15 0.2939134460358645 3.132572119938244e-14" xyz="-2.6248992675766285 3.0114999999999674 0.5017359884539901"/>
    <parent link="world"/>
    <child link="stepover_2_123"/>
  </joint>
  <!-- link -->
  <link name="stepover_2_123">
    <!-- inertial -->
    <inertial>
      <origin rpy="0 0 0" xyz="0 0 0"/>
      <mass value="1"/>
      <inertia ixx="1.0" ixy="0.0" ixz="0.0" iyy="1.0" iyz="0.0" izz="1.0"/>
    </inertial>
    <!-- visual -->
    <visual>
      <origin rpy="0 0 0" xyz="0 0 0"/>
      <geometry>
        <mesh filename="package://ICRA2024_Quadruped_Competition/meshes/visual/stepover_2.obj"/>
      </geometry>
      <material name="">
        <color rgba="0.92 0.93 0.90 1"/>
      </material>
    </visual>
    <!-- collision -->
    <collision>
      <origin rpy="0 0 0" xyz="0 0 0"/>
      <geometry>
        <mesh filename="package://ICRA2024_Quadruped_Competition/meshes/visual/stepover_2.obj"/>
      </geometry>
      <material name="">
        <color rgba="1 0 0 1"/>
      </material>
    </collision>
  </link>
  <!-- gazebo -->
  <gazebo reference="stepover_2_123">
    <static>true</static>
  </gazebo>
  <!-- gazebo -->
  <gazebo>
    <static>true</static>
  </gazebo>
</robot>
